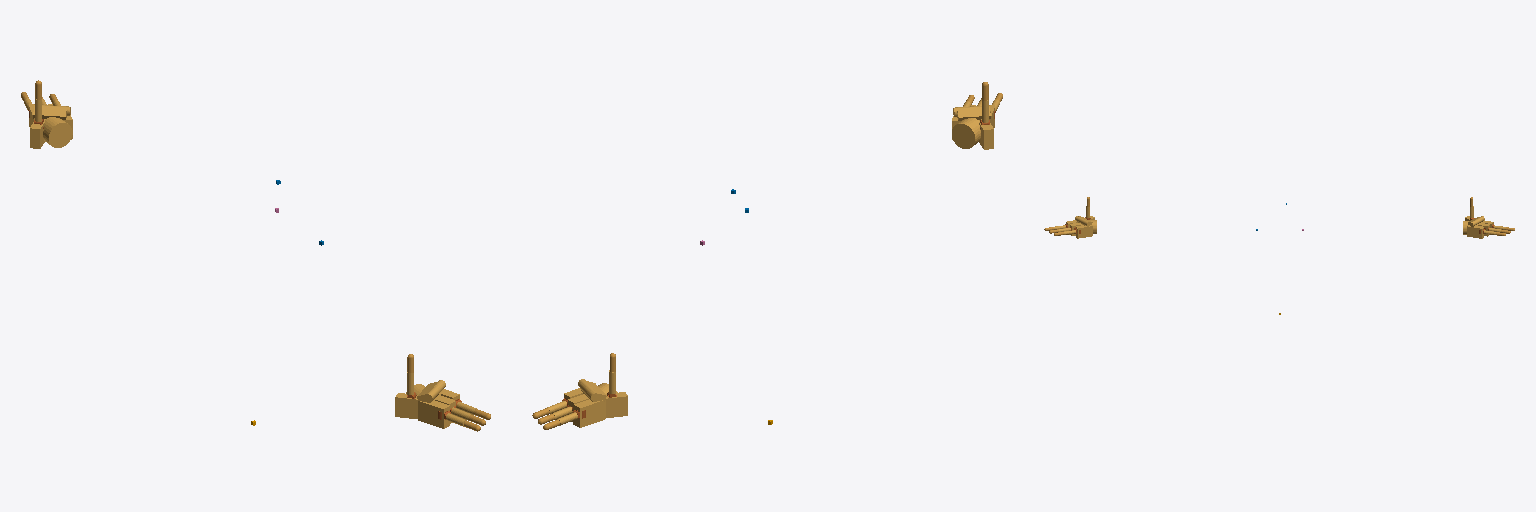
--- Facts derived from the render (not from the file) ---
3 views of the same robot in one strip: view 1: azimuth 30°, elevation 25°; view 2: azimuth 150°, elevation 25°; view 3: azimuth 270°, elevation 25° (orthographic).
Model atlas with 111 links and 110 joints (52 revolute, 1 continuous, 57 fixed), rooted at pelvis, posed every joint at zero.
Links seen in each view (by area): view 1: right_palm, left_palm; view 2: left_palm, right_palm; view 3: none.
Boxes of the visible links, <box> form: right_palm: <box>395,380,459,428</box>; left_palm: <box>29,104,72,148</box>; left_palm: <box>564,379,627,427</box>; right_palm: <box>952,105,994,149</box>.
Bounding box of the posed robot: 0.2828 × 2.51 × 0.7021 m (x, y, z).
Meshes: 30 distinct files referenced, 0 mesh visuals loaded (none loaded); not drawn: 30 (reference not matched to a file when rendering).

The robot description file, URDF, robot "atlas":
<?xml version="1.0" ?>
<!-- =================================================================================== -->
<!-- |    This document was autogenerated by xacro from [local-path]/flor_repo/rosbuild_ws/vigir_robot/flor_atlas_description/robots/flor_atlas.urdf.xacro | -->
<!-- |    EDITING THIS FILE BY HAND IS NOT RECOMMENDED                                 | -->
<!-- =================================================================================== -->
<robot name="atlas" xmlns:xacro="http://www.ros.org/wiki/xacro">
  <link name="l_clav">
    <inertial>
      <mass value="2.369"/>
      <origin rpy="0 -0 0" xyz="0.014 0.058 0.029"/>
      <inertia ixx="0.004" ixy="0.001" ixz="0" iyy="0.006" iyz="0" izz="0.007"/>
    </inertial>
    <visual>
      <origin rpy="1.04719755 0 0" xyz="0 0 0"/>
      <geometry>
        <mesh filename="package://flor_atlas_description/meshes/l_clav.dae" scale="1 1 1"/>
      </geometry>
    </visual>
    <collision group="default">
      <origin rpy="0 1.5707963267949 0" xyz="0 0.0697 0.0261"/>
      <geometry>
        <cylinder length="0.1525" radius="0.045"/>
      </geometry>
    </collision>
    <collision group="other">
      <origin rpy="1.0472 0 0" xyz="-0.005 -0.0074 -0.0538"/>
      <geometry>
        <box size="0.13 0.15 0.05"/>
      </geometry>
    </collision>
  </link>
  <link name="l_farm">
    <inertial>
      <mass value="0.981"/>
      <origin rpy="0 -0 0" xyz="0 0.041 0"/>
      <inertia ixx="0.003" ixy="0" ixz="0" iyy="0.001" iyz="0" izz="0.003"/>
    </inertial>
    <visual>
      <origin rpy="0 -0 0" xyz="0 -0.06 0"/>
      <geometry>
        <mesh filename="package://flor_atlas_description/meshes/l_farm.dae" scale="1 1 1"/>
      </geometry>
    </visual>
    <collision group="default">
      <origin rpy="0 1.5708 0" xyz="0.0 0.065 0.004"/>
      <geometry>
        <cylinder length="0.125" radius="0.045"/>
      </geometry>
    </collision>
    <collision group="other">
      <origin rpy="0 0 0" xyz="0.001 0.015 -0.002"/>
      <geometry>
        <box size="0.135 0.1 0.045"/>
      </geometry>
    </collision>
  </link>
  <link name="l_foot">
    <inertial>
      <mass value="0.867"/>
      <origin rpy="0 -0 0" xyz="0.027 0 -0.067"/>
      <inertia ixx="0.002" ixy="0" ixz="0" iyy="0.00350421" iyz="0" izz="0.00400651"/>
    </inertial>
    <visual>
      <origin rpy="0 -0 0" xyz="0 0 0"/>
      <geometry>
        <mesh filename="package://flor_atlas_description/meshes/l_foot.dae" scale="1 1 1"/>
      </geometry>
    </visual>
    <!-- bottom -->
    <collision group="default">
      <origin rpy="0 0 0" xyz="0.048 0 -0.056119"/>
      <geometry>
        <box size="0.26 0.124887 0.05"/>
      </geometry>
    </collision>
    <!-- ankle FIXME: adding this collision body destabilizes robot, shouldn't
        <collision group="other">
          <origin xyz="0.0 0 -0.0528735" rpy="0 0 0"/>
          <geometry>
            <cylinder radius="0.0373" length="0.037827"/>
          </geometry>
        </collision>
        -->
  </link>
  <link name="l_hand">
    <inertial>
      <mass value="2.263"/>
      <origin rpy="0 -0 0" xyz="0 0.093 0"/>
      <inertia ixx="0.01" ixy="0" ixz="0" iyy="0.002" iyz="0" izz="0.01"/>
    </inertial>
    <visual>
      <origin rpy="0 -0 0" xyz="0 0 0"/>
      <geometry>
        <mesh filename="package://flor_atlas_description/meshes/l_hand.dae" scale="1 1 1"/>
      </geometry>
    </visual>
    <collision group="default">
      <origin rpy="1.5707963267949 0 0" xyz="0.001 0.1 0.01"/>
      <geometry>
        <cylinder length="0.05" radius="0.03"/>
      </geometry>
    </collision>
    <collision group="other">
      <origin rpy="0 0 0" xyz="0.001 0.05 0.01"/>
      <geometry>
        <box size="0.13 0.09 0.07"/>
      </geometry>
    </collision>
  </link>
  <link name="l_larm">
    <inertial>
      <mass value="2.148"/>
      <origin rpy="0 -0 0" xyz="-0.003 0.099 -0.014"/>
      <inertia ixx="0.005" ixy="0" ixz="0" iyy="0.003" iyz="0" izz="0.006"/>
    </inertial>
    <visual>
      <origin rpy="0 -0 0" xyz="0 0 0"/>
      <geometry>
        <mesh filename="package://flor_atlas_description/meshes/l_larm.dae" scale="1 1 1"/>
      </geometry>
    </visual>
    <collision group="default">
      <origin rpy="1.5707963267949 0 0" xyz="0.001 0.127 0.00"/>
      <geometry>
        <cylinder length="0.125" radius="0.045"/>
      </geometry>
    </collision>
    <collision group="other">
      <origin rpy="0 0 0" xyz="0.001 0.051 0.0"/>
      <geometry>
        <box size="0.135 0.15 0.06"/>
      </geometry>
    </collision>
  </link>
  <link name="l_lglut">
    <inertial>
      <mass value="0.803"/>
      <origin rpy="0 -0 0" xyz="0.0133341 0.0170484 -0.0312052"/>
      <inertia ixx="0.0453457" ixy="-2.24344e-05" ixz="2.50508e-06" iyy="0.0174182" iyz="0.000137862" izz="0.0071591"/>
    </inertial>
    <visual>
      <origin rpy="0 -0 0" xyz="0 0 0"/>
      <geometry>
        <mesh filename="package://flor_atlas_description/meshes/l_lglut.dae" scale="1 1 1"/>
      </geometry>
    </visual>
    <collision group="default">
      <origin rpy="1.5707963267949 0 0" xyz="0.049968 0.022488 -0.0501165"/>
      <geometry>
        <cylinder length="0.060306" radius="0.02009687"/>
      </geometry>
    </collision>
    <collision group="other">
      <origin rpy="0 1.5707963267949 0" xyz="0 0 0"/>
      <geometry>
        <cylinder length="0.12" radius="0.02"/>
      </geometry>
    </collision>
  </link>
  <link name="l_lleg">
    <inertial>
      <mass value="4.367"/>
      <origin rpy="0 -0 0" xyz="0.001 0 -0.187"/>
      <inertia ixx="0.077" ixy="0" ixz="-0.003" iyy="0.076" iyz="0" izz="0.01"/>
    </inertial>
    <visual>
      <origin rpy="0 -0 0" xyz="0 0 0"/>
      <geometry>
        <mesh filename="package://flor_atlas_description/meshes/l_lleg.dae" scale="1.0 1.0 1.0"/>
      </geometry>
    </visual>
    <collision group="default">
      <origin rpy="0 0.10 0" xyz="0.02 0.00295 -0.18"/>
      <geometry>
        <cylinder length="0.40" radius="0.07"/>
      </geometry>
    </collision>
  </link>
  <link name="l_scap">
    <inertial>
      <mass value="2.707"/>
      <origin rpy="0 -0 0" xyz="-0.002 0.108 0"/>
      <inertia ixx="0.01" ixy="0" ixz="0" iyy="0.005" iyz="0" izz="0.013"/>
    </inertial>
    <visual>
      <origin rpy="0 0 0" xyz="0 0 0"/>
      <geometry>
        <mesh filename="package://flor_atlas_description/meshes/l_scap.dae" scale="1 1 1"/>
      </geometry>
    </visual>
    <collision group="default">
      <origin rpy="1.5707963267949 0 0" xyz="0.001 0.12651 0.01521"/>
      <geometry>
        <cylinder length="0.125" radius="0.045"/>
      </geometry>
    </collision>
    <collision group="other">
      <origin rpy="0 0 0" xyz="0.001 0.05 0.016"/>
      <geometry>
        <box size="0.15 0.15 0.06"/>
      </geometry>
    </collision>
  </link>
  <link name="l_talus">
    <inertial>
      <mass value="0.867"/>
      <origin rpy="0 -0 0" xyz="0 0 0"/>
      <inertia ixx="0.001" ixy="0" ixz="0" iyy="0.00350421" iyz="0" izz="0.00400651"/>
    </inertial>
    <visual>
      <origin rpy="0 -0 0" xyz="0 0 0"/>
      <geometry>
        <mesh filename="package://flor_atlas_description/meshes/l_talus.dae" scale="1 1 1"/>
      </geometry>
    </visual>
    <collision group="default">
      <origin rpy="0 1.5707963267949 0" xyz="0 0 0"/>
      <geometry>
        <cylinder length="0.029542" radius="0.010181"/>
      </geometry>
    </collision>
    <collision group="other">
      <origin rpy="1.5707963267949 0 0" xyz="0 0 0"/>
      <geometry>
        <cylinder length="0.010059" radius="0.010348"/>
      </geometry>
    </collision>
  </link>
  <link name="l_uarm">
    <inertial>
      <mass value="1.881"/>
      <origin rpy="0 -0 0" xyz="0.007 0.114 0.008"/>
      <inertia ixx="0.002" ixy="0" ixz="0" iyy="0.003" iyz="0" izz="0.003"/>
    </inertial>
    <visual>
      <origin rpy="0 -0 0" xyz="0 0 0"/>
      <geometry>
        <mesh filename="package://flor_atlas_description/meshes/l_uarm.dae" scale="1 1 1"/>
      </geometry>
    </visual>
    <collision group="default">
      <origin rpy="0 1.5708 0" xyz="0.001 0.111 0.0"/>
      <geometry>
        <cylinder length="0.125" radius="0.045"/>
      </geometry>
    </collision>
    <collision group="other">
      <origin rpy="0 1.5707963267949 0" xyz="0.001 0.043 0.01"/>
      <geometry>
        <box size="0.04 0.07 0.13"/>
      </geometry>
    </collision>
  </link>
  <link name="l_uglut">
    <inertial>
      <mass value="1.51622"/>
      <origin rpy="0 -0 0" xyz="0.00529262 -0.00344732 0.00313046"/>
      <inertia ixx="0.0327037" ixy="-3.79607e-08" ixz="-2.79549e-05" iyy="0.0174182" iyz="-3.2735e-08" izz="0.0071591"/>
    </inertial>
    <visual>
      <origin rpy="0 -0 0" xyz="0 0 0"/>
      <geometry>
        <mesh filename="package://flor_atlas_description/meshes/l_uglut.dae" scale="1 1 1"/>
      </geometry>
    </visual>
    <collision group="default">
      <origin rpy="0 1.5707963267949 0" xyz="0 0 0"/>
      <geometry>
        <cylinder length="0.078396" radius="0.019096"/>
      </geometry>
    </collision>
    <collision group="other">
      <origin rpy="0 0 0" xyz="0 0 0"/>
      <geometry>
        <cylinder length="0.080842" radius="0.019841"/>
      </geometry>
    </collision>
  </link>
  <link name="l_uleg">
    <inertial>
      <mass value="7.227"/>
      <origin rpy="0 -0 0" xyz="0 0 -0.21"/>
      <inertia ixx="0.0453457" ixy="0" ixz="0" iyy="0.09" iyz="0" izz="0.0071591"/>
    </inertial>
    <visual>
      <origin rpy="0 -0 0" xyz="0 0 0"/>
      <geometry>
        <mesh filename="package://flor_atlas_description/meshes/l_uleg.dae" scale="1.0 1.0 1.0"/>
      </geometry>
    </visual>
    <collision group="default">
      <origin rpy="0 0 0" xyz="-0.0179 0.02085 -0.13"/>
      <geometry>
        <cylinder length="0.10" radius="0.1"/>
      </geometry>
    </collision>
    <collision group="other">
      <origin rpy="0 -0.3 0" xyz="-0.03 0.01 -0.23"/>
      <geometry>
        <cylinder length="0.15" radius="0.07"/>
      </geometry>
    </collision>
    <collision group="other">
      <origin rpy="0 0.3 0" xyz="-0.005 0.01 -0.23"/>
      <geometry>
        <cylinder length="0.15" radius="0.07"/>
      </geometry>
    </collision>
    <collision group="other">
      <origin rpy="-0.25 0 0" xyz="-0.02 0.03 -0.23"/>
      <geometry>
        <cylinder length="0.15" radius="0.07"/>
      </geometry>
    </collision>
  </link>
  <link name="ltorso">
    <inertial>
      <mass value="1.62729"/>
      <origin rpy="0 -0 0" xyz="-0.0112984 -3.15366e-06 0.0746835"/>
      <inertia ixx="0.0646646" ixy="-5.04491e-08" ixz="-0.000342157" iyy="0.050298" iyz="4.87119e-07" izz="0.10973"/>
    </inertial>
    <visual>
      <origin rpy="0 -0 0" xyz="0 0 0"/>
      <geometry>
        <mesh filename="package://flor_atlas_description/meshes/ltorso.dae" scale="1 1 1"/>
      </geometry>
    </visual>
    <!-- this part is completely internal
        <collision group="default">
          <origin rpy="0 0 0" xyz="0 0 0.039762"/>
          <geometry>
            <cylinder radius="0.025918" length="0.076922"/>
          </geometry>
        </collision>
        <collision group="other">
          <origin rpy="1.5707963267949 0 0" xyz="0 0.0250065 0.09025"/>
          <geometry>
            <cylinder radius="0.014828" length="0.020367"/>
          </geometry>
        </collision>
        <collision group="other">
          <origin rpy="1.5707963267949 0 0" xyz="0 -0.0248895 0.09025"/>
          <geometry>
            <cylinder radius="0.014828" length="0.020169"/>
          </geometry>
        </collision>
        -->
  </link>
  <link name="mtorso">
    <inertial>
      <mass value="3.8068"/>
      <origin rpy="0 -0 0" xyz="-0.00816266 -0.0131245 0.0305974"/>
      <inertia ixx="0.1975" ixy="-6.10764e-05" ixz="3.94009e-05" iyy="0.544742" iyz="5.27463e-05" izz="0.10973"/>
    </inertial>
    <visual>
      <origin rpy="0 -0 0" xyz="0 0 0"/>
      <geometry>
        <mesh filename="package://flor_atlas_description/meshes/mtorso.dae" scale="1 1 1"/>
      </geometry>
    </visual>
    <!--        <collision group="default">
          <origin rpy="1.5707963267949 0 0" xyz="0 0 0"/>
          <geometry>
            <cylinder radius="0.017" length="0.03"/>
          </geometry>
        </collision>
        <collision group="other">
          <origin rpy="0 1.5707963267949 0" xyz="0.0285 0 0.05"/>
          <geometry>
            <cylinder radius="0.015" length="0.02"/>
          </geometry>
        </collision>
        <collision group="other">
          <origin rpy="0 1.5707963267949 0" xyz="-0.0285 0 0.05"/>
          <geometry>
            <cylinder radius="0.015" length="0.02"/>
          </geometry>
        </collision>-->
  </link>
  <link name="pelvis">
    <inertial>
      <mass value="12.54638"/>
      <origin rpy="0 -0 0" xyz="0.0111 0 0.0271"/>
      <inertia ixx="0.0327037" ixy="0.0008" ixz="-0.0007" iyy="0.0174182" iyz="-0.0005" izz="0.118059"/>
    </inertial>
    <visual>
      <origin rpy="0 -0 0" xyz="0 0 0"/>
      <geometry>
        <mesh filename="package://flor_atlas_description/meshes/pelvis.dae" scale="1.0 1.0 1.0"/>
      </geometry>
    </visual>
    <collision group="default">
      <origin rpy="1.5707963267949 0 0" xyz="0.046 0.0 -0.02"/>
      <geometry>
        <cylinder length="0.06" radius="0.11"/>
      </geometry>
    </collision>
    <collision group="other">
      <origin rpy="1.5707963267949 0 0" xyz="-0.03 0.0 -0.02"/>
      <geometry>
        <cylinder length="0.06" radius="0.11"/>
      </geometry>
    </collision>
    <collision group="other">
      <origin rpy="0 0 0" xyz="0.01 0.042 0.09"/>
      <geometry>
        <cylinder length="0.05" radius="0.16"/>
      </geometry>
    </collision>
    <collision group="other">
      <origin rpy="0 0 0" xyz="0.01 -0.042 0.09"/>
      <geometry>
        <cylinder length="0.05" radius="0.16"/>
      </geometry>
    </collision>
    <collision group="other">
      <origin rpy="0 0 0" xyz="-0.1 0 -0.05"/>
      <geometry>
        <box size="0.1 0.15 0.2"/>
      </geometry>
    </collision>
  </link>
  <link name="r_clav">
    <inertial>
      <mass value="2.369"/>
      <origin rpy="0 -0 0" xyz="0.014 -0.058 0.029"/>
      <inertia ixx="0.004" ixy="-0.001" ixz="0" iyy="0.006" iyz="0" izz="0.007"/>
    </inertial>
    <visual>
      <origin rpy="-1.04719755 0 0" xyz="0 0 0"/>
      <geometry>
        <mesh filename="package://flor_atlas_description/meshes/r_clav.dae" scale="1 1 1"/>
      </geometry>
    </visual>
    <collision group="default">
      <origin rpy="0 1.5707963267949 0" xyz="0 -0.0697 0.0261"/>
      <geometry>
        <cylinder length="0.1525" radius="0.045"/>
      </geometry>
    </collision>
    <collision group="other">
      <origin rpy="-1.0472 0 0" xyz="-0.005 0.0074 -0.0538"/>
      <geometry>
        <box size="0.13 0.15 0.05"/>
      </geometry>
    </collision>
  </link>
  <link name="r_farm">
    <inertial>
      <mass value="0.981"/>
      <origin rpy="0 -0 0" xyz="0 -0.041 0"/>
      <inertia ixx="0.003" ixy="0" ixz="0" iyy="0.001" iyz="0" izz="0.003"/>
    </inertial>
    <visual>
      <origin rpy="0 -0 0" xyz="0 0.06 0"/>
      <geometry>
        <mesh filename="package://flor_atlas_description/meshes/r_farm.dae" scale="1 1 1"/>
      </geometry>
    </visual>
    <collision group="default">
      <origin rpy="0 1.5708 0" xyz="0.0 -0.065 0.004"/>
      <geometry>
        <cylinder length="0.125" radius="0.045"/>
      </geometry>
    </collision>
    <collision group="other">
      <origin rpy="0 0 0" xyz="0.001 -0.015 -0.002"/>
      <geometry>
        <box size="0.135 0.1 0.045"/>
      </geometry>
    </collision>
  </link>
  <link name="r_foot">
    <inertial>
      <mass value="0.867"/>
      <origin rpy="0 -0 0" xyz="0.027 0 -0.067"/>
      <inertia ixx="0.002" ixy="0" ixz="0" iyy="0.00350421" iyz="0" izz="0.00400651"/>
    </inertial>
    <visual>
      <origin rpy="0 -0 0" xyz="0 0 0"/>
      <geometry>
        <mesh filename="package://flor_atlas_description/meshes/r_foot.dae" scale="1 1 1"/>
      </geometry>
    </visual>
    <!-- bottom -->
    <collision group="default">
      <origin rpy="0 0 0" xyz="0.048 0 -0.056119"/>
      <geometry>
        <box size="0.26 0.124887 0.05"/>
      </geometry>
    </collision>
    <!-- ankle FIXME: adding this collision body destabilizes robot, shouldn't
        <collision group="other">
          <origin xyz="0.0 0 -0.0528735" rpy="0 0 0"/>
          <geometry>
            <cylinder radius="0.0373" length="0.037827"/>
          </geometry>
        </collision>
        -->
  </link>
  <link name="r_hand">
    <inertial>
      <mass value="2.263"/>
      <origin rpy="0 -0 0" xyz="0 -0.093 0"/>
      <inertia ixx="0.01" ixy="0" ixz="0" iyy="0.002" iyz="0" izz="0.01"/>
    </inertial>
    <visual>
      <origin rpy="0 -0 0" xyz="0 0 0"/>
      <geometry>
        <mesh filename="package://flor_atlas_description/meshes/r_hand.dae" scale="1 1 1"/>
      </geometry>
    </visual>
    <collision group="default">
      <origin rpy="1.5707963267949 0 0" xyz="0.001 -0.1 0.01"/>
      <geometry>
        <cylinder length="0.05" radius="0.03"/>
      </geometry>
    </collision>
    <collision group="other">
      <origin rpy="0 0 0" xyz="0.001 -0.05 0.01"/>
      <geometry>
        <box size="0.13 0.09 0.07"/>
      </geometry>
    </collision>
  </link>
  <link name="r_larm">
    <inertial>
      <mass value="2.148"/>
      <origin rpy="0 -0 0" xyz="-0.003 -0.099 -0.014"/>
      <inertia ixx="0.005" ixy="0" ixz="0" iyy="0.003" iyz="0" izz="0.006"/>
    </inertial>
    <visual>
      <origin rpy="0 -0 0" xyz="0 0 0"/>
      <geometry>
        <mesh filename="package://flor_atlas_description/meshes/r_larm.dae" scale="1.0 1.0 1.0"/>
      </geometry>
    </visual>
    <collision group="default">
      <origin rpy="1.5707963267949 0 0" xyz="0.001 -0.127 0.00"/>
      <geometry>
        <cylinder length="0.125" radius="0.045"/>
      </geometry>
    </collision>
    <collision group="other">
      <origin rpy="0 0 0" xyz="0.001 -0.051 0.0"/>
      <geometry>
        <box size="0.135 0.15 0.06"/>
      </geometry>
    </collision>
  </link>
  <link name="r_lglut">
    <inertial>
      <mass value="0.803"/>
      <origin rpy="0 -0 0" xyz="0.0133341 -0.0170484 -0.0312052"/>
      <inertia ixx="0.0453457" ixy="2.24344e-05" ixz="2.50508e-06" iyy="0.0174182" iyz="-0.000137862" izz="0.0071591"/>
    </inertial>
    <visual>
      <origin rpy="0 -0 0" xyz="0 0 0"/>
      <geometry>
        <mesh filename="package://flor_atlas_description/meshes/r_lglut.dae" scale="1.0 1.0 1.0"/>
      </geometry>
    </visual>
    <collision group="default">
      <origin rpy="1.5707963267949 0 0" xyz="0.049968 -0.022488 -0.0501165"/>
      <geometry>
        <cylinder length="0.060306" radius="0.02009687"/>
      </geometry>
    </collision>
    <collision group="other">
      <origin rpy="0 1.5707963267949 0" xyz="0 0 0"/>
      <geometry>
        <cylinder length="0.12" radius="0.02"/>
      </geometry>
    </collision>
  </link>
  <link name="r_lleg">
    <inertial>
      <mass value="4.367"/>
      <origin rpy="0 -0 0" xyz="0.001 0 -0.187"/>
      <inertia ixx="0.077" ixy="-0" ixz="-0.003" iyy="0.076" iyz="-0" izz="0.01"/>
    </inertial>
    <visual>
      <origin rpy="0 -0 0" xyz="0 0 0"/>
      <geometry>
        <mesh filename="package://flor_atlas_description/meshes/r_lleg.dae" scale="1.0 1.0 1.0"/>
      </geometry>
    </visual>
    <collision group="default">
      <origin rpy="0 0.10 0" xyz="0.02 -0.00295 -0.18"/>
      <geometry>
        <cylinder length="0.40" radius="0.07"/>
      </geometry>
    </collision>
  </link>
  <link name="r_scap">
    <inertial>
      <mass value="2.707"/>
      <origin rpy="0 -0 0" xyz="-0.002 -0.108 0"/>
      <inertia ixx="0.01" ixy="0" ixz="0" iyy="0.005" iyz="0" izz="0.013"/>
    </inertial>
    <visual>
      <origin rpy="0 -0 0" xyz="0 0 0"/>
      <geometry>
        <mesh filename="package://flor_atlas_description/meshes/r_scap.dae" scale="1 1 1"/>
      </geometry>
    </visual>
    <collision group="default">
      <origin rpy="1.5707963267949 0 0" xyz="0.001 -0.12651 0.01521"/>
      <geometry>
        <cylinder length="0.125" radius="0.045"/>
      </geometry>
    </collision>
    <collision group="other">
      <origin rpy="0 0 0" xyz="0.001 -0.05 0.016"/>
      <geometry>
        <box size="0.15 0.15 0.06"/>
      </geometry>
    </collision>
  </link>
  <link name="r_talus">
    <inertial>
      <mass value="0.867"/>
      <origin rpy="0 -0 0" xyz="0 0 0"/>
      <inertia ixx="0.001" ixy="0" ixz="0" iyy="0.00350421" iyz="0" izz="0.00400651"/>
    </inertial>
    <visual>
      <origin rpy="0 -0 0" xyz="0 0 0"/>
      <geometry>
        <mesh filename="package://flor_atlas_description/meshes/r_talus.dae" scale="1 1 1"/>
      </geometry>
    </visual>
    <collision group="default">
      <origin rpy="0 1.5707963267949 0" xyz="0 0 0"/>
      <geometry>
        <cylinder length="0.029542" radius="0.010181"/>
      </geometry>
    </collision>
    <collision group="other">
      <origin rpy="1.5707963267949 0 0" xyz="0 0 0"/>
      <geometry>
        <cylinder length="0.010059" radius="0.010348"/>
      </geometry>
    </collision>
  </link>
  <link name="r_uarm">
    <inertial>
      <mass value="1.881"/>
      <origin rpy="0 -0 0" xyz="0.007 -0.114 0.008"/>
      <inertia ixx="0.002" ixy="0" ixz="0" iyy="0.003" iyz="0" izz="0.003"/>
    </inertial>
    <visual>
      <origin rpy="0 -0 0" xyz="0 0 0"/>
      <geometry>
        <mesh filename="package://flor_atlas_description/meshes/r_uarm.dae" scale="1.0 1.0 1.0"/>
      </geometry>
    </visual>
    <collision group="default">
      <origin rpy="0 1.5708 0" xyz="0.001 -0.111 0.0"/>
      <geometry>
        <cylinder length="0.125" radius="0.045"/>
      </geometry>
    </collision>
    <collision group="other">
      <origin rpy="0 1.5707963267949 0" xyz="0.001 -0.043 0.01"/>
      <geometry>
        <box size="0.04 0.07 0.13"/>
      </geometry>
    </collision>
  </link>
  <link name="r_uglut">
    <inertial>
      <mass value="1.51622"/>
      <origin rpy="0 -0 0" xyz="0.00529262 0.00344732 0.00313046"/>
      <inertia ixx="0.0327037" ixy="3.79607e-08" ixz="-2.79549e-05" iyy="0.0174182" iyz="3.2735e-08" izz="0.0071591"/>
    </inertial>
    <visual>
      <origin rpy="0 -0 0" xyz="0 0 0"/>
      <geometry>
        <mesh filename="package://flor_atlas_description/meshes/r_uglut.dae" scale="1.0 1.0 1.0"/>
      </geometry>
    </visual>
    <collision group="default">
      <origin rpy="0 1.5707963267949 0" xyz="0 0 0"/>
      <geometry>
        <cylinder length="0.078396" radius="0.019096"/>
      </geometry>
    </collision>
    <collision group="other">
      <origin rpy="0 0 0" xyz="0 0 0"/>
      <geometry>
        <cylinder length="0.080842" radius="0.019841"/>
      </geometry>
    </collision>
  </link>
  <link name="r_uleg">
    <inertial>
      <mass value="7.227"/>
      <origin rpy="0 -0 0" xyz="0 0 -0.21"/>
      <inertia ixx="0.0453457" ixy="0" ixz="0" iyy="0.09" iyz="0" izz="0.0071591"/>
    </inertial>
    <visual>
      <origin rpy="0 -0 0" xyz="0 0 0"/>
      <geometry>
        <mesh filename="package://flor_atlas_description/meshes/r_uleg.dae" scale="1.0 1.0 1.0"/>
      </geometry>
    </visual>
    <collision group="default">
      <origin rpy="0 0 0" xyz="-0.0179 -0.02085 -0.13"/>
      <geometry>
        <cylinder length="0.10" radius="0.1"/>
      </geometry>
    </collision>
    <collision group="other">
      <origin rpy="0 -0.3 0" xyz="-0.03 -0.01 -0.23"/>
      <geometry>
        <cylinder length="0.15" radius="0.07"/>
      </geometry>
    </collision>
    <collision group="other">
      <origin rpy="0 0.3 0" xyz="-0.005 -0.01 -0.23"/>
      <geometry>
        <cylinder length="0.15" radius="0.07"/>
      </geometry>
    </collision>
    <collision group="other">
      <origin rpy="0.25 0 0" xyz="-0.02 -0.03 -0.23"/>
      <geometry>
        <cylinder length="0.15" radius="0.07"/>
      </geometry>
    </collision>
  </link>
  <link name="utorso">
    <inertial>
      <mass value="15.2272"/>
      <origin rpy="0 -0 0" xyz="0.02 -0.001 0.211"/>
      <inertia ixx="0.395" ixy="0" ixz="0.083" iyy="0.544742" iyz="-0.003" izz="0.10973"/>
    </inertial>
    <visual>
      <origin rpy="0 -0 0" xyz="0 0 0"/>
      <geometry>
        <mesh filename="package://flor_atlas_description/meshes/utorso.dae" scale="1 1 1"/>
      </geometry>
    </visual>
    <collision group="default">
      <origin rpy="0 -0 0" xyz="0.0446 0 0.1869"/>
      <geometry>
        <box size="0.3188 0.24 0.3162"/>
      </geometry>
    </collision>
    <collision group="other">
      <origin rpy="-0.5236 0 0" xyz="0.024 0.16 0.18"/>
      <geometry>
        <cylinder length="0.22375" radius="0.0363"/>
      </geometry>
    </collision>
    <collision group="other">
      <origin rpy="0.5236 0 0" xyz="0.024 -0.16 0.18"/>
      <geometry>
        <cylinder length="0.22375" radius="0.0363"/>
      </geometry>
    </collision>
  </link>
  <joint name="back_bkz" type="revolute">
    <origin rpy="0 -0 0" xyz="-0.0125 0 0"/>
    <axis xyz="0 0 1"/>
    <parent link="pelvis"/>
    <child link="ltorso"/>
    <dynamics damping="10" friction="0"/>
    <limit effort="124.016" lower="-0.610865" upper="0.610865" velocity="12"/>
    <safety_controller k_position="100" k_velocity="100" soft_lower_limit="-10.6109" soft_upper_limit="10.6109"/>
  </joint>
  <joint name="back_bky" type="revolute">
    <origin rpy="0 -0 0" xyz="0 0 0.09"/>
    <axis xyz="0 1 0"/>
    <parent link="ltorso"/>
    <child link="mtorso"/>
    <dynamics damping="10" friction="0"/>
    <limit effort="206.843" lower="-1.2" upper="1.28" velocity="12"/>
    <safety_controller k_position="100" k_velocity="100" soft_lower_limit="-11.2" soft_upper_limit="11.28"/>
  </joint>
  <joint name="back_bkx" type="revolute">
    <origin rpy="0 -0 0" xyz="0 0 0.05"/>
    <axis xyz="1 0 0"/>
    <parent link="mtorso"/>
    <child link="utorso"/>
    <dynamics damping="10" friction="0"/>
    <limit effort="94.91" lower="-0.790809" upper="0.790809" velocity="12"/>
    <safety_controller k_position="100" k_velocity="100" soft_lower_limit="-10.7908" soft_upper_limit="10.7908"/>
  </joint>
  <joint name="l_arm_elx" type="revolute">
    <origin rpy="0 -0 0" xyz="0 0.121 0.013"/>
    <axis xyz="1 0 0"/>
    <parent link="l_uarm"/>
    <child link="l_larm"/>
    <dynamics damping="1.0" friction="0"/>
    <limit effort="114" lower="0" upper="2.35619" velocity="12"/>
    <safety_controller k_position="100" k_velocity="100" soft_lower_limit="-10" soft_upper_limit="12.3562"/>
  </joint>
  <joint name="l_arm_ely" type="revolute">
    <origin rpy="0 -0 0" xyz="0 0.185 0"/>
    <axis xyz="0 1 0"/>
    <parent link="l_scap"/>
    <child link="l_uarm"/>
    <dynamics damping="1.0" friction="0"/>
    <limit effort="114" lower="0" upper="3.14159" velocity="12"/>
    <safety_controller k_position="100" k_velocity="100" soft_lower_limit="-10" soft_upper_limit="13.1416"/>
  </joint>
  <joint name="l_arm_wrx" type="revolute">
    <origin rpy="0 -0 0" xyz="0 0.058 0"/>
    <axis xyz="1 0 0"/>
    <parent link="l_farm"/>
    <child link="l_hand"/>
    <dynamics damping="1.0" friction="0"/>
    <limit effort="60" lower="-0.436" upper="1.571" velocity="12"/>
    <safety_controller k_position="100" k_velocity="100" soft_lower_limit="-10.436" soft_upper_limit="11.571"/>
  </joint>
  <joint name="l_arm_shx" type="revolute">
    <origin rpy="0 -0 0" xyz="0 0.075 0.036"/>
    <axis xyz="1 0 0"/>
    <parent link="l_clav"/>
    <child link="l_scap"/>
    <dynamics damping="1.0" friction="0"/>
    <limit effort="170" lower="-1.39626" upper="1.74533" velocity="12"/>
    <safety_controller k_position="100" k_velocity="100" soft_lower_limit="-11.3963" soft_upper_limit="11.7453"/>
  </joint>
  <joint name="l_arm_shy" type="revolute">
    <origin rpy="0 -0 0" xyz="0.024 0.221 0.289"/>
    <axis xyz="0 0.5 0.866025"/>
    <parent link="utorso"/>
    <child link="l_clav"/>
    <dynamics damping="1.0" friction="0"/>
    <limit effort="212" lower="-1.9635" upper="1.9635" velocity="12"/>
    <safety_controller k_position="100" k_velocity="100" soft_lower_limit="-11.9635" soft_upper_limit="11.9635"/>
  </joint>
  <joint name="l_arm_wry" type="revolute">
    <origin rpy="0 -0 0" xyz="0 0.188 -0.013"/>
    <axis xyz="0 1 0"/>
    <parent link="l_larm"/>
    <child link="l_farm"/>
    <dynamics damping="1.0" friction="0"/>
    <limit effort="114" lower="-1.571" upper="1.571" velocity="12"/>
    <safety_controller k_position="100" k_velocity="100" soft_lower_limit="-11.571" soft_upper_limit="11.571"/>
  </joint>
  <joint name="l_leg_kny" type="revolute">
    <origin rpy="0 -0 0" xyz="-0.05 0 -0.374"/>
    <axis xyz="0 1 0"/>
    <parent link="l_uleg"/>
    <child link="l_lleg"/>
    <dynamics damping="1.0" friction="0"/>
    <limit effort="400" lower="0" upper="2.45" velocity="12"/>
    <safety_controller k_position="100" k_velocity="100" soft_lower_limit="-10" soft_upper_limit="12.45"/>
  </joint>
  <joint name="l_leg_akx" type="revolute">
    <origin rpy="0 -0 0" xyz="0 0 0"/>
    <axis xyz="1 0 0"/>
    <parent link="l_talus"/>
    <child link="l_foot"/>
    <dynamics damping="1.0" friction="0"/>
    <limit effort="90" lower="-0.436" upper="0.436" velocity="12"/>
    <safety_controller k_position="100" k_velocity="100" soft_lower_limit="-10.436" soft_upper_limit="10.436"/>
  </joint>
  <joint name="l_leg_hpy" type="revolute">
    <origin rpy="0 -0 0" xyz="0.05 0 -0.05"/>
    <axis xyz="0 1 0"/>
    <parent link="l_lglut"/>
    <child link="l_uleg"/>
    <dynamics damping="1.0" friction="0"/>
    <limit effort="260" lower="-1.75" upper="0.524" velocity="12"/>
    <safety_controller k_position="100" k_velocity="100" soft_lower_limit="-11.75" soft_upper_limit="10.524"/>
  </joint>
  <joint name="l_leg_hpx" type="revolute">
    <origin rpy="0 -0 0" xyz="0 0 0"/>
    <axis xyz="1 0 0"/>
    <parent link="l_uglut"/>
    <child link="l_lglut"/>
    <dynamics damping="1.0" friction="0"/>
    <limit effort="180" lower="-0.47" upper="0.495" velocity="12"/>
    <safety_controller k_position="100" k_velocity="100" soft_lower_limit="-10.47" soft_upper_limit="10.495"/>
  </joint>
  <joint name="l_leg_aky" type="revolute">
    <origin rpy="0 -0 0" xyz="0 0 -0.422"/>
    <axis xyz="0 1 0"/>
    <parent link="l_lleg"/>
    <child link="l_talus"/>
    <dynamics damping="1.0" friction="0"/>
    <limit effort="220" lower="-0.9" upper="0.698" velocity="12"/>
    <safety_controller k_position="100" k_velocity="100" soft_lower_limit="-10.698" soft_upper_limit="10.698"/>
  </joint>
  <joint name="l_leg_hpz" type="revolute">
    <origin rpy="0 -0 0" xyz="0 0.089 0"/>
    <axis xyz="0 0 1"/>
    <parent link="pelvis"/>
    <child link="l_uglut"/>
    <dynamics damping="1.0" friction="0"/>
    <limit effort="110" lower="-0.32" upper="1.14" velocity="12"/>
    <safety_controller k_position="100" k_velocity="100" soft_lower_limit="-10.32" soft_upper_limit="11.14"/>
  </joint>
  <joint name="neck_ry" type="revolute">
    <!-- per slides on sensor head kinematics 2013-02-13 -->
    <origin rpy="0 -0 0" xyz="0.21672 0 0.53796"/>
    <axis xyz="0 1 0"/>
    <parent link="utorso"/>
    <child link="head"/>
    <dynamics damping="1.0" friction="0"/>
    <!-- per slides on sensor head kinematics 2012-12-14 -->
    <limit effort="5" lower="-0.610865238" upper="1.13446401" velocity="12"/>
    <safety_controller k_position="100" k_velocity="100" soft_lower_limit="-10.610865238" soft_upper_limit="11.13446401"/>
  </joint>
  <joint name="r_arm_elx" type="revolute">
    <origin rpy="0 -0 0" xyz="0 -0.121 0.013"/>
    <axis xyz="1 0 0"/>
    <parent link="r_uarm"/>
    <child link="r_larm"/>
    <dynamics damping="1.0" friction="0"/>
    <limit effort="114" lower="-2.35619" upper="0" velocity="12"/>
    <safety_controller k_position="100" k_velocity="100" soft_lower_limit="-12.3562" soft_upper_limit="10"/>
  </joint>
  <joint name="r_arm_ely" type="revolute">
    <origin rpy="0 -0 0" xyz="0 -0.185 0"/>
    <axis xyz="0 1 0"/>
    <parent link="r_scap"/>
    <child link="r_uarm"/>
    <dynamics damping="1.0" friction="0"/>
    <limit effort="114" lower="0" upper="3.14159" velocity="12"/>
    <safety_controller k_position="100" k_velocity="100" soft_lower_limit="-10" soft_upper_limit="13.1416"/>
  </joint>
  <joint name="r_arm_wrx" type="revolute">
    <origin rpy="0 -0 0" xyz="0 -0.058 0"/>
    <axis xyz="1 0 0"/>
    <parent link="r_farm"/>
    <child link="r_hand"/>
    <dynamics damping="1.0" friction="0"/>
    <limit effort="60" lower="-1.571" upper="0.436" velocity="12"/>
    <safety_controller k_position="100" k_velocity="100" soft_lower_limit="-11.571" soft_upper_limit="10.436"/>
  </joint>
  <joint name="r_arm_shx" type="revolute">
    <origin rpy="0 -0 0" xyz="0 -0.075 0.036"/>
    <axis xyz="1 0 0"/>
    <parent link="r_clav"/>
    <child link="r_scap"/>
    <dynamics damping="1.0" friction="0"/>
    <limit effort="170" lower="-1.74533" upper="1.39626" velocity="12"/>
    <safety_controller k_position="100" k_velocity="100" soft_lower_limit="-11.7453" soft_upper_limit="11.3963"/>
  </joint>
  <joint name="r_arm_shy" type="revolute">
    <origin rpy="0 -0 0" xyz="0.024 -0.221 0.289"/>
    <axis xyz="0 0.5 -0.866025"/>
    <parent link="utorso"/>
    <child link="r_clav"/>
    <dynamics damping="1.0" friction="0"/>
    <limit effort="212" lower="-1.9635" upper="1.9635" velocity="12"/>
    <safety_controller k_position="100" k_velocity="100" soft_lower_limit="-11.9635" soft_upper_limit="11.9635"/>
  </joint>
  <joint name="r_arm_wry" type="revolute">
    <origin rpy="0 -0 0" xyz="0 -0.188 -0.013"/>
    <axis xyz="0 1 0"/>
    <parent link="r_larm"/>
    <child link="r_farm"/>
    <dynamics damping="1.0" friction="0"/>
    <limit effort="114" lower="-1.571" upper="1.571" velocity="12"/>
    <safety_controller k_position="100" k_velocity="100" soft_lower_limit="-11.571" soft_upper_limit="11.571"/>
  </joint>
  <joint name="r_leg_kny" type="revolute">
    <origin rpy="0 -0 0" xyz="-0.05 0 -0.374"/>
    <axis xyz="0 1 0"/>
    <parent link="r_uleg"/>
    <child link="r_lleg"/>
    <dynamics damping="1.0" friction="0"/>
    <limit effort="400" lower="0" upper="2.45" velocity="12"/>
    <safety_controller k_position="100" k_velocity="100" soft_lower_limit="-10" soft_upper_limit="12.45"/>
  </joint>
  <joint name="r_leg_akx" type="revolute">
    <origin rpy="0 -0 0" xyz="0 0 0"/>
    <axis xyz="1 0 0"/>
    <parent link="r_talus"/>
    <child link="r_foot"/>
    <dynamics damping="1.0" friction="0"/>
    <limit effort="90" lower="-0.436" upper="0.436" velocity="12"/>
    <safety_controller k_position="100" k_velocity="100" soft_lower_limit="-10.436" soft_upper_limit="10.436"/>
  </joint>
  <joint name="r_leg_hpy" type="revolute">
    <origin rpy="0 -0 0" xyz="0.05 0 -0.05"/>
    <axis xyz="0 1 0"/>
    <parent link="r_lglut"/>
    <child link="r_uleg"/>
    <dynamics damping="1.0" friction="0"/>
    <limit effort="260" lower="-1.745" upper="0.524" velocity="12"/>
    <safety_controller k_position="100" k_velocity="100" soft_lower_limit="-11.745" soft_upper_limit="10.524"/>
  </joint>
  <joint name="r_leg_hpx" type="revolute">
    <origin rpy="0 -0 0" xyz="0 0 0"/>
    <axis xyz="1 0 0"/>
    <parent link="r_uglut"/>
    <child link="r_lglut"/>
    <dynamics damping="1.0" friction="0"/>
    <limit effort="180" lower="-0.495" upper="0.47" velocity="12"/>
    <safety_controller k_position="100" k_velocity="100" soft_lower_limit="-10.495" soft_upper_limit="10.47"/>
  </joint>
  <joint name="r_leg_aky" type="revolute">
    <origin rpy="0 -0 0" xyz="0 0 -0.422"/>
    <axis xyz="0 1 0"/>
    <parent link="r_lleg"/>
    <child link="r_talus"/>
    <dynamics damping="1.0" friction="0"/>
    <limit effort="220" lower="-0.9" upper="0.698" velocity="12"/>
    <safety_controller k_position="100" k_velocity="100" soft_lower_limit="-10.698" soft_upper_limit="10.698"/>
  </joint>
  <joint name="r_leg_hpz" type="revolute">
    <origin rpy="0 -0 0" xyz="0 -0.089 0"/>
    <axis xyz="0 0 1"/>
    <parent link="pelvis"/>
    <child link="r_uglut"/>
    <dynamics damping="1.0" friction="0"/>
    <limit effort="110" lower="-1.14" upper="0.32" velocity="12"/>
    <safety_controller k_position="100" k_velocity="100" soft_lower_limit="-11.14" soft_upper_limit="10.32"/>
  </joint>
  <link name="r_situational_awareness_camera_link">
    <inertial>
      <mass value="0.1"/>
      <origin xyz="0 0 0"/>
      <inertia ixx="0.00001" ixy="0" ixz="0" iyy="0.00001" iyz="0" izz="0.00001"/>
    </inertial>
    <visual>
      <origin rpy="0 0 0" xyz="0 0 0"/>
      <geometry>
        <box size="0.01 0.01 0.01"/>
      </geometry>
    </visual>
  </link>
  <joint name="r_situational_awareness_camera_joint" type="fixed">
    <parent link="utorso"/>
    <child link="r_situational_awareness_camera_link"/>
    <!-- if camera points x-forward, bottom towards front of robot, 15 degree yaw forwards from
           lateral (+y) view -->
    <origin rpy="1.57079633 0 -1.30899694" xyz="0.216409 -0.121799 0.406759"/>
  </joint>
  <joint name="r_situational_awareness_camera_optical_frame_joint" type="fixed">
    <origin rpy="-1.5708 0.0 -1.5708" xyz="0 0 0"/>
    <parent link="r_situational_awareness_camera_link"/>
    <child link="r_situational_awareness_camera_optical_frame"/>
  </joint>
  <link name="r_situational_awareness_camera_optical_frame"/>
  <link name="l_situational_awareness_camera_link">
    <inertial>
      <mass value="0.1"/>
      <origin xyz="0 0 0"/>
      <inertia ixx="0.00001" ixy="0" ixz="0" iyy="0.00001" iyz="0" izz="0.00001"/>
    </inertial>
    <visual>
      <origin rpy="0 0 0" xyz="0 0 0"/>
      <geometry>
        <box size="0.01 0.01 0.01"/>
      </geometry>
    </visual>
  </link>
  <joint name="l_situational_awareness_camera_joint" type="fixed">
    <parent link="utorso"/>
    <child link="l_situational_awareness_camera_link"/>
    <!-- if camera points x-forward, bottom towards front of robot, 15 degree yaw forwards from
           lateral (+y) view -->
    <origin rpy="-1.57079633 0 1.30899694" xyz="0.216409 0.121799 0.406759"/>
  </joint>
  <joint name="l_situational_awareness_camera_optical_frame_joint" type="fixed">
    <origin rpy="-1.5708 0.0 -1.5708" xyz="0 0 0"/>
    <parent link="l_situational_awareness_camera_link"/>
    <child link="l_situational_awareness_camera_optical_frame"/>
  </joint>
  <link name="l_situational_awareness_camera_optical_frame"/>
  <gazebo>
    <!-- robot model offset -->
    <pose>0 0 0.93 0 0 0</pose>
  </gazebo>
  <gazebo>
    <plugin filename="libAtlasPlugin.so" name="atlas_plugin"/>
    <plugin filename="libgazebo_ros_joint_trajectory.so" name="joint_trajectory_plugin">
      <topicName>joint_trajectory</topicName>
      <updateRate>1000.0</updateRate>
    </plugin>
    <!--
    <plugin filename="libgazebo_ros_controller_manager.so" name="gazebo_ros_controller_manager">
      <alwaysOn>true</alwaysOn>
      <updateRate>1000.0</updateRate>
    </plugin>
    -->
  </gazebo>
  <link name="imu_link">
    <inertial>
      <mass value="0.1"/>
      <origin xyz="0 0 0"/>
      <inertia ixx="0.001" ixy="0" ixz="0" iyy="0.001" iyz="0" izz="0.001"/>
    </inertial>
    <visual>
      <origin rpy="0 0 0" xyz="0 0 0"/>
      <geometry>
        <box size="0.01 0.01 0.01"/>
      </geometry>
    </visual>
  </link>
  <joint name="imu_joint" type="fixed">
    <parent link="pelvis"/>
    <child link="imu_link"/>
    <origin rpy="0 0 0" xyz="0.05991527603 0 -0.01415"/>
  </joint>
  <gazebo reference="imu_link">
    <!-- this is expected to be reparented to pelvis with appropriate offset
         when imu_link is reduced by fixed joint reduction -->
    <!-- todo: this is working with gazebo 1.4, need to write a unit test -->
    <sensor name="imu_sensor" type="imu">
      <always_on>1</always_on>
      <update_rate>1000.0</update_rate>
      <imu>
        <noise>
          <type>gaussian</type>
          <!-- Noise parameters from Boston Dynamics
               (http://gazebosim.org/wiki/Sensor_noise):
                 rates (rad/s): mean=0, stddev=2e-4
                 accels (m/s/s): mean=0, stddev=1.7e-2
                 rate bias (rad/s): 5e-6 - 1e-5
                 accel bias (m/s/s): 1e-1
               Experimentally, simulation provide rates with noise of
               about 1e-3 rad/s and accels with noise of about 1e-1 m/s/s.
               So we don't expect to see the noise unless number of inner iterations
               are increased.

               We will add bias.  In this model, bias is sampled once for rates
               and once for accels at startup; the sign (negative or positive)
               of each bias is then switched with equal probability.  Thereafter,
               the biases are fixed additive offsets.  We choose
               bias means and stddevs to produce biases close to the provided
               data. -->
          <rate>
            <mean>0.0</mean>
            <stddev>2e-4</stddev>
            <bias_mean>0.0000075</bias_mean>
            <bias_stddev>0.0000008</bias_stddev>
          </rate>
          <accel>
            <mean>0.0</mean>
            <stddev>1.7e-2</stddev>
            <bias_mean>0.1</bias_mean>
            <bias_stddev>0.001</bias_stddev>
          </accel>
        </noise>
      </imu>
    </sensor>
  </gazebo>
  <gazebo reference="l_arm_wrx">
    <provideFeedback>1</provideFeedback>
  </gazebo>
  <gazebo reference="r_arm_wrx">
    <provideFeedback>1</provideFeedback>
  </gazebo>
  <gazebo reference="l_leg_akx">
    <provideFeedback>1</provideFeedback>
    <cfmDamping>1</cfmDamping>
  </gazebo>
  <gazebo reference="r_leg_akx">
    <provideFeedback>1</provideFeedback>
    <cfmDamping>1</cfmDamping>
  </gazebo>
  <gazebo reference="r_foot">
    <!-- kp and kd for rubber -->
    <kp>1000000.0</kp>
    <kd>100.0</kd>
    <mu1>1.5</mu1>
    <mu2>1.5</mu2>
    <fdir1>1 0 0</fdir1>
    <maxVel>1.0</maxVel>
    <minDepth>0.00</minDepth>
  </gazebo>
  <gazebo reference="l_foot">
    <kp>1000000.0</kp>
    <kd>100.0</kd>
    <mu1>1.5</mu1>
    <mu2>1.5</mu2>
    <fdir1>1 0 0</fdir1>
    <maxVel>1.0</maxVel>
    <minDepth>0.00</minDepth>
  </gazebo>
  <gazebo reference="l_clav">
    <mu1>0.9</mu1>
    <mu2>0.9</mu2>
  </gazebo>
  <gazebo reference="l_farm">
    <mu1>0.9</mu1>
    <mu2>0.9</mu2>
  </gazebo>
  <gazebo reference="l_hand">
    <mu1>0.9</mu1>
    <mu2>0.9</mu2>
  </gazebo>
  <gazebo reference="l_larm">
    <mu1>0.9</mu1>
    <mu2>0.9</mu2>
  </gazebo>
  <gazebo reference="l_lglut">
    <mu1>0.9</mu1>
    <mu2>0.9</mu2>
  </gazebo>
  <gazebo reference="l_lleg">
    <mu1>0.9</mu1>
    <mu2>0.9</mu2>
  </gazebo>
  <gazebo reference="l_scap">
    <mu1>0.9</mu1>
    <mu2>0.9</mu2>
  </gazebo>
  <gazebo reference="l_talus">
    <mu1>0.9</mu1>
    <mu2>0.9</mu2>
  </gazebo>
  <gazebo reference="l_uarm">
    <mu1>0.9</mu1>
    <mu2>0.9</mu2>
  </gazebo>
  <gazebo reference="l_uglut">
    <mu1>0.9</mu1>
    <mu2>0.9</mu2>
  </gazebo>
  <gazebo reference="l_uleg">
    <mu1>0.9</mu1>
    <mu2>0.9</mu2>
  </gazebo>
  <gazebo reference="ltorso">
    <mu1>0.9</mu1>
    <mu2>0.9</mu2>
  </gazebo>
  <gazebo reference="mtorso">
    <mu1>0.9</mu1>
    <mu2>0.9</mu2>
  </gazebo>
  <gazebo reference="pelvis">
    <mu1>0.9</mu1>
    <mu2>0.9</mu2>
  </gazebo>
  <gazebo reference="r_clav">
    <mu1>0.9</mu1>
    <mu2>0.9</mu2>
  </gazebo>
  <gazebo reference="r_farm">
    <mu1>0.9</mu1>
    <mu2>0.9</mu2>
  </gazebo>
  <gazebo reference="r_hand">
    <mu1>0.9</mu1>
    <mu2>0.9</mu2>
  </gazebo>
  <gazebo reference="r_larm">
    <mu1>0.9</mu1>
    <mu2>0.9</mu2>
  </gazebo>
  <gazebo reference="r_lglut">
    <mu1>0.9</mu1>
    <mu2>0.9</mu2>
  </gazebo>
  <gazebo reference="r_lleg">
    <mu1>0.9</mu1>
    <mu2>0.9</mu2>
  </gazebo>
  <gazebo reference="r_scap">
    <mu1>0.9</mu1>
    <mu2>0.9</mu2>
  </gazebo>
  <gazebo reference="r_talus">
    <mu1>0.9</mu1>
    <mu2>0.9</mu2>
  </gazebo>
  <gazebo reference="r_uarm">
    <mu1>0.9</mu1>
    <mu2>0.9</mu2>
  </gazebo>
  <gazebo reference="r_uglut">
    <mu1>0.9</mu1>
    <mu2>0.9</mu2>
  </gazebo>
  <gazebo reference="r_uleg">
    <mu1>0.9</mu1>
    <mu2>0.9</mu2>
  </gazebo>
  <gazebo reference="utorso">
    <mu1>0.9</mu1>
    <mu2>0.9</mu2>
  </gazebo>
  <gazebo>
    <plugin filename="libgazebo_ros_p3d.so" name="gazebo_ros_p3d">
      <bodyName>pelvis</bodyName>
      <topicName>/ground_truth_odom</topicName>
      <alwaysOn>true</alwaysOn>
      <updateRate>100.0</updateRate>
    </plugin>
  </gazebo>
  <gazebo reference="r_foot">
    <!-- contact sensor -->
    <sensor name="r_foot_contact_sensor" type="contact">
      <update_rate>1000.0</update_rate>
      <always_on>1</always_on>
      <contact>
        <collision>r_foot_collision</collision>
        <topic>/r_foot_contact</topic>
      </contact>
    </sensor>
  </gazebo>
  <gazebo reference="l_foot">
    <!-- contact sensor -->
    <sensor name="l_foot_contact_sensor" type="contact">
      <update_rate>1000.0</update_rate>
      <always_on>1</always_on>
      <contact>
        <collision>l_foot_collision</collision>
        <topic>/l_foot_contact</topic>
      </contact>
    </sensor>
  </gazebo>
  <gazebo>
    <plugin filename="libgazebo_ros_force.so" name="gazebo_ros_force">
      <bodyName>pelvis</bodyName>
      <topicName>/atlas/apply_pelvis_force</topicName>
    </plugin>
  </gazebo>
  <gazebo reference="back_bkz">
    <cfmDamping>1</cfmDamping>
  </gazebo>
  <gazebo reference="back_bky">
    <cfmDamping>1</cfmDamping>
  </gazebo>
  <gazebo reference="back_bkx">
    <cfmDamping>1</cfmDamping>
  </gazebo>
  <gazebo reference="l_arm_elx">
    <cfmDamping>1</cfmDamping>
  </gazebo>
  <gazebo reference="l_arm_ely">
    <cfmDamping>1</cfmDamping>
  </gazebo>
  <gazebo reference="l_arm_wrx">
    <cfmDamping>1</cfmDamping>
  </gazebo>
  <gazebo reference="l_arm_shx">
    <cfmDamping>1</cfmDamping>
  </gazebo>
  <gazebo reference="l_arm_shy">
    <cfmDamping>1</cfmDamping>
  </gazebo>
  <gazebo reference="l_arm_wry">
    <cfmDamping>1</cfmDamping>
  </gazebo>
  <gazebo reference="l_leg_kny">
    <cfmDamping>1</cfmDamping>
  </gazebo>
  <gazebo reference="l_leg_hpy">
    <cfmDamping>1</cfmDamping>
  </gazebo>
  <gazebo reference="l_leg_hpx">
    <cfmDamping>1</cfmDamping>
  </gazebo>
  <gazebo reference="l_leg_aky">
    <cfmDamping>1</cfmDamping>
  </gazebo>
  <gazebo reference="l_leg_hpz">
    <cfmDamping>1</cfmDamping>
  </gazebo>
  <gazebo reference="neck_ry">
    <cfmDamping>1</cfmDamping>
  </gazebo>
  <gazebo reference="r_arm_elx">
    <cfmDamping>1</cfmDamping>
  </gazebo>
  <gazebo reference="r_arm_ely">
    <cfmDamping>1</cfmDamping>
  </gazebo>
  <gazebo reference="r_arm_wrx">
    <cfmDamping>1</cfmDamping>
  </gazebo>
  <gazebo reference="r_arm_shx">
    <cfmDamping>1</cfmDamping>
  </gazebo>
  <gazebo reference="r_arm_shy">
    <cfmDamping>1</cfmDamping>
  </gazebo>
  <gazebo reference="r_arm_wry">
    <cfmDamping>1</cfmDamping>
  </gazebo>
  <gazebo reference="r_leg_kny">
    <cfmDamping>1</cfmDamping>
  </gazebo>
  <gazebo reference="r_leg_hpy">
    <cfmDamping>1</cfmDamping>
  </gazebo>
  <gazebo reference="r_leg_hpx">
    <cfmDamping>1</cfmDamping>
  </gazebo>
  <gazebo reference="r_leg_aky">
    <cfmDamping>1</cfmDamping>
  </gazebo>
  <gazebo reference="r_leg_hpz">
    <cfmDamping>1</cfmDamping>
  </gazebo>
  <transmission name="head_hokuyo_trans" type="pr2_mechanism_model/SimpleTransmission">
    <joint name="hokuyo_joint"/>
    <actuator name="hokuyo_motor"/>
    <mechanicalReduction>1</mechanicalReduction>
  </transmission>
  <transmission name="back_bkz_trans" type="pr2_mechanism_model/SimpleTransmission">
    <joint name="back_bkz"/>
    <actuator name="back_bkz_motor"/>
    <mechanicalReduction>1</mechanicalReduction>
  </transmission>
  <transmission name="back_bky_trans" type="pr2_mechanism_model/SimpleTransmission">
    <actuator name="back_bky_motor"/>
    <joint name="back_bky"/>
    <mechanicalReduction>1</mechanicalReduction>
  </transmission>
  <transmission name="back_bkx_trans" type="pr2_mechanism_model/SimpleTransmission">
    <actuator name="back_bkx_motor"/>
    <joint name="back_bkx"/>
    <mechanicalReduction>1</mechanicalReduction>
  </transmission>
  <transmission name="l_arm_elx_trans" type="pr2_mechanism_model/SimpleTransmission">
    <actuator name="l_arm_elx_motor"/>
    <joint name="l_arm_elx"/>
    <mechanicalReduction>1</mechanicalReduction>
  </transmission>
  <transmission name="l_arm_ely_trans" type="pr2_mechanism_model/SimpleTransmission">
    <actuator name="l_arm_ely_motor"/>
    <joint name="l_arm_ely"/>
    <mechanicalReduction>1</mechanicalReduction>
  </transmission>
  <transmission name="l_arm_wrx_trans" type="pr2_mechanism_model/SimpleTransmission">
    <actuator name="l_arm_wrx_motor"/>
    <joint name="l_arm_wrx"/>
    <mechanicalReduction>1</mechanicalReduction>
  </transmission>
  <transmission name="l_arm_shx_trans" type="pr2_mechanism_model/SimpleTransmission">
    <actuator name="l_arm_shx_motor"/>
    <joint name="l_arm_shx"/>
    <mechanicalReduction>1</mechanicalReduction>
  </transmission>
  <transmission name="l_arm_shy_trans" type="pr2_mechanism_model/SimpleTransmission">
    <actuator name="l_arm_shy_motor"/>
    <joint name="l_arm_shy"/>
    <mechanicalReduction>1</mechanicalReduction>
  </transmission>
  <transmission name="l_arm_wry_trans" type="pr2_mechanism_model/SimpleTransmission">
    <actuator name="l_arm_wry_motor"/>
    <joint name="l_arm_wry"/>
    <mechanicalReduction>1</mechanicalReduction>
  </transmission>
  <transmission name="l_leg_kny_trans" type="pr2_mechanism_model/SimpleTransmission">
    <actuator name="l_leg_kny_motor"/>
    <joint name="l_leg_kny"/>
    <mechanicalReduction>1</mechanicalReduction>
  </transmission>
  <transmission name="l_leg_akx_trans" type="pr2_mechanism_model/SimpleTransmission">
    <actuator name="l_leg_akx_motor"/>
    <joint name="l_leg_akx"/>
    <mechanicalReduction>1</mechanicalReduction>
  </transmission>
  <transmission name="l_leg_hpy_trans" type="pr2_mechanism_model/SimpleTransmission">
    <actuator name="l_leg_hpy_motor"/>
    <joint name="l_leg_hpy"/>
    <mechanicalReduction>1</mechanicalReduction>
  </transmission>
  <transmission name="l_leg_hpx_trans" type="pr2_mechanism_model/SimpleTransmission">
    <actuator name="l_leg_hpx_motor"/>
    <joint name="l_leg_hpx"/>
    <mechanicalReduction>1</mechanicalReduction>
  </transmission>
  <transmission name="l_leg_aky_trans" type="pr2_mechanism_model/SimpleTransmission">
    <actuator name="l_leg_aky_motor"/>
    <joint name="l_leg_aky"/>
    <mechanicalReduction>1</mechanicalReduction>
  </transmission>
  <transmission name="l_leg_hpz_trans" type="pr2_mechanism_model/SimpleTransmission">
    <actuator name="l_leg_hpz_motor"/>
    <joint name="l_leg_hpz"/>
    <mechanicalReduction>1</mechanicalReduction>
  </transmission>
  <transmission name="neck_ry_trans" type="pr2_mechanism_model/SimpleTransmission">
    <actuator name="neck_ry_motor"/>
    <joint name="neck_ry"/>
    <mechanicalReduction>1</mechanicalReduction>
  </transmission>
  <transmission name="r_arm_elx_trans" type="pr2_mechanism_model/SimpleTransmission">
    <actuator name="r_arm_elx_motor"/>
    <joint name="r_arm_elx"/>
    <mechanicalReduction>1</mechanicalReduction>
  </transmission>
  <transmission name="r_arm_ely_trans" type="pr2_mechanism_model/SimpleTransmission">
    <actuator name="r_arm_ely_motor"/>
    <joint name="r_arm_ely"/>
    <mechanicalReduction>1</mechanicalReduction>
  </transmission>
  <transmission name="r_arm_wrx_trans" type="pr2_mechanism_model/SimpleTransmission">
    <actuator name="r_arm_wrx_motor"/>
    <joint name="r_arm_wrx"/>
    <mechanicalReduction>1</mechanicalReduction>
  </transmission>
  <transmission name="r_arm_shx_trans" type="pr2_mechanism_model/SimpleTransmission">
    <actuator name="r_arm_shx_motor"/>
    <joint name="r_arm_shx"/>
    <mechanicalReduction>1</mechanicalReduction>
  </transmission>
  <transmission name="r_arm_shy_trans" type="pr2_mechanism_model/SimpleTransmission">
    <actuator name="r_arm_shy_motor"/>
    <joint name="r_arm_shy"/>
    <mechanicalReduction>1</mechanicalReduction>
  </transmission>
  <transmission name="r_arm_wry_trans" type="pr2_mechanism_model/SimpleTransmission">
    <actuator name="r_arm_wry_motor"/>
    <joint name="r_arm_wry"/>
    <mechanicalReduction>1</mechanicalReduction>
  </transmission>
  <transmission name="r_leg_kny_trans" type="pr2_mechanism_model/SimpleTransmission">
    <actuator name="r_leg_kny_motor"/>
    <joint name="r_leg_kny"/>
    <mechanicalReduction>1</mechanicalReduction>
  </transmission>
  <transmission name="r_leg_akx_trans" type="pr2_mechanism_model/SimpleTransmission">
    <actuator name="r_leg_akx_motor"/>
    <joint name="r_leg_akx"/>
    <mechanicalReduction>1</mechanicalReduction>
  </transmission>
  <transmission name="r_leg_hpy_trans" type="pr2_mechanism_model/SimpleTransmission">
    <actuator name="r_leg_hpy_motor"/>
    <joint name="r_leg_hpy"/>
    <mechanicalReduction>1</mechanicalReduction>
  </transmission>
  <transmission name="r_leg_hpx_trans" type="pr2_mechanism_model/SimpleTransmission">
    <actuator name="r_leg_hpx_motor"/>
    <joint name="r_leg_hpx"/>
    <mechanicalReduction>1</mechanicalReduction>
  </transmission>
  <transmission name="r_leg_aky_trans" type="pr2_mechanism_model/SimpleTransmission">
    <actuator name="r_leg_aky_motor"/>
    <joint name="r_leg_aky"/>
    <mechanicalReduction>1</mechanicalReduction>
  </transmission>
  <transmission name="r_leg_hpz_trans" type="pr2_mechanism_model/SimpleTransmission">
    <actuator name="r_leg_hpz_motor"/>
    <joint name="r_leg_hpz"/>
    <mechanicalReduction>1</mechanicalReduction>
  </transmission>
  <link name="head">
    <inertial>
      <origin rpy="0 0 0" xyz="-0.075493 3.3383E-05 0.02774"/>
      <mass value="1.41984"/>
      <!--<inertia iyy="0.0041178" ixy="-1.5797E-06" iyz="-6.8415E-07" ixx="0.0039688" ixz="-0.00089293" izz="0.0035243" />-->
      <inertia ixx="0.0036053766" ixy="-1.5797E-06" ixz="-0.00089293" iyy="0.002080106" iyz="-6.8415E-07" izz="0.001782985"/>
    </inertial>
    <visual>
      <origin rpy="0 0 0" xyz="0 0 0"/>
      <geometry>
        <mesh filename="package://multisense_sl_description/meshes/head.dae"/>
      </geometry>
      <material name="">
        <color rgba="0.9098 0.44314 0.031373 1"/>
      </material>
    </visual>
    <collision group="default">
      <origin rpy="0 0 0" xyz="-0.0503 0 -0.00195"/>
      <geometry>
        <box size="0.1311 0.12 0.0591"/>
      </geometry>
    </collision>
    <collision group="other">
      <origin rpy="0 0 0" xyz="-0.093 0 0.0868"/>
      <geometry>
        <box size="0.0468 0.12 0.1184"/>
      </geometry>
    </collision>
  </link>
  <link name="hokuyo_link">
    <inertial>
      <origin rpy="0 0 0" xyz="0.012428 0.0004084 -0.0041835"/>
      <mass value="0.057654"/>
      <!--<inertia iyy="4.2412E-05" ixy="4.9927E-08" iyz="-9.8165E-09" ixx="3.7174E-05" ixz="1.1015E-05" izz="4.167E-05" />-->
      <!-- distribute iyy and izz equally between head and hokuyo_link given it's constrainted anyways -->
      <!-- tweak ixx of hokuyo so it's larger, 1/10th of head ixx. -->
      <inertia ixx="0.0004005974" ixy="4.9927E-08" ixz="1.1015E-05" iyy="0.002080106" iyz="-9.8165E-09" izz="0.001782985"/>
    </inertial>
    <visual>
      <!--origin xyz="0.065774 -0.001163 -0.08809" rpy="0 0 0" /-->
      <!--origin xyz="0.045 -0.001163 -0.08809" rpy="-0.314 0 0" /-->
      <origin rpy="-0.314 0 0" xyz="0.045 -0.0261018277 -0.08342369"/>
      <geometry>
        <mesh filename="package://multisense_sl_description/meshes/head_camera.dae"/>
      </geometry>
      <material name="">
        <color rgba="0.72941 0.35686 0.023529 1"/>
      </material>
    </visual>
    <collision group="default">
      <origin rpy="0 0 0" xyz="0.01885 0 -0.02119"/>
      <geometry>
        <box size="0.08 0.06 0.04238"/>
      </geometry>
    </collision>
    <collision group="other">
      <origin rpy="0 0 0" xyz="0.03 0 0.0235"/>
      <geometry>
        <cylinder length="0.047" radius="0.024425"/>
      </geometry>
    </collision>
  </link>
  <gazebo reference="head">
    <mu1>0.9</mu1>
    <mu2>0.9</mu2>
  </gazebo>
  <gazebo reference="hokuyo_link">
    <mu1>0.9</mu1>
    <mu2>0.9</mu2>
  </gazebo>
  <joint name="hokuyo_joint" type="continuous">
    <origin rpy="0 0 0" xyz="-0.0446 0 0.0880"/>
    <parent link="head"/>
    <child link="hokuyo_link"/>
    <axis xyz="1 0 0"/>
    <dynamics damping="0.01" friction="0"/>
  </joint>
  <joint name="head_hokuyo_joint" type="fixed">
    <axis xyz="0 1 0"/>
    <origin rpy="0 0 0" xyz="0.03 0 0.015"/>
    <parent link="hokuyo_link"/>
    <child link="head_hokuyo_frame"/>
  </joint>
  <link name="head_hokuyo_frame">
    <inertial>
      <mass value="1e-5"/>
      <!-- collocate with parent link and remove mass from it -->
      <origin rpy="0 0 0" xyz="0.042428 0.0004084 0.0108165"/>
      <inertia ixx="1e-6" ixy="0" ixz="0" iyy="1e-6" iyz="0" izz="1e-6"/>
    </inertial>
  </link>
  <gazebo reference="head_hokuyo_frame">
    <sensor name="head_hokuyo_sensor" type="gpu_ray">
      <pose>0 0 0 0 0 0</pose>
      <visualize>false</visualize>
      <update_rate>40</update_rate>
      <ray>
        <scan>
          <horizontal>
            <samples>720</samples>
            <resolution>1</resolution>
            <min_angle>-1.570796</min_angle>
            <max_angle>1.570796</max_angle>
          </horizontal>
        </scan>
        <range>
          <min>0.10</min>
          <max>30.0</max>
          <resolution>0.01</resolution>
        </range>
        <noise>
          <type>gaussian</type>
          <!-- Noise parameters based on published spec for Hokuyo laser
               achieving "+-30mm" accuracy at range < 10m.  A mean of 0.0m and
               stddev of 0.01m will put 99.7% of samples within 0.03m of the true
               reading. -->
          <mean>0.0</mean>
          <stddev>0.01</stddev>
        </noise>
      </ray>
      <plugin filename="libgazebo_ros_gpu_laser.so" name="gazebo_ros_head_hokuyo_controller">
        <topicName>/multisense_sl/laser/scan</topicName>
        <frameName>head_hokuyo_frame</frameName>
      </plugin>
    </sensor>
  </gazebo>
  <joint name="left_camera_frame_joint" type="fixed">
    <!-- optical frame collocated with tilting DOF -->
    <origin xyz="0.0 0.035 -0.002"/>
    <parent link="head"/>
    <child link="left_camera_frame"/>
  </joint>
  <link name="left_camera_frame">
    <inertial>
      <mass value="1e-5"/>
      <!-- collocate with parent link and remove mass from it -->
      <origin xyz="-0.075493 0.035033383 0.02574"/>
      <inertia ixx="1e-6" ixy="0" ixz="0" iyy="1e-6" iyz="0" izz="1e-6"/>
    </inertial>
  </link>
  <joint name="left_camera_optical_frame_joint" type="fixed">
    <origin rpy="-1.5708 0.0 -1.5708" xyz="0 0 0"/>
    <parent link="left_camera_frame"/>
    <child link="left_camera_optical_frame"/>
  </joint>
  <link name="left_camera_optical_frame"/>
  <gazebo reference="left_camera_frame">
    <sensor name="stereo_camera" type="multicamera">
      <!-- see MultiSenseSLPlugin.h for available modes -->
      <update_rate>30.0</update_rate>
      <camera name="left">
        <!-- Spec sheet says 80deg X 45deg @ 1024x544pix.  Based on feedback
             from teams, we're instead doing 80deg X 80deg @ 800x800pix. -->
        <horizontal_fov>1.3962634</horizontal_fov>
        <image>
          <width>800</width>
          <height>800</height>
          <format>R8G8B8</format>
        </image>
        <clip>
          <near>0.02</near>
          <far>300</far>
        </clip>
        <noise>
          <type>gaussian</type>
          <!-- Noise is sampled independently per pixel on each frame.  
               That pixel's noise value is added to each of its color
               channels, which at that point lie in the range [0,1].
               The stddev value of 0.007 is based on experimental data 
               from a camera in a Sandia hand pointed at a static scene
               in a couple of different lighting conditions.  -->
          <mean>0.0</mean>
          <stddev>0.007</stddev>
        </noise>
      </camera>
      <camera name="right">
        <pose>0 -0.07 0 0 0 0</pose>
        <!-- Spec sheet says 80deg X 45deg @ 1024x544pix.  Based on feedback
             from teams, we're instead doing 80deg X 80deg @ 800x800pix. -->
        <horizontal_fov>1.3962634</horizontal_fov>
        <image>
          <width>800</width>
          <height>800</height>
          <format>R8G8B8</format>
        </image>
        <clip>
          <near>0.02</near>
          <far>300</far>
        </clip>
        <noise>
          <type>gaussian</type>
          <!-- Noise is sampled independently per pixel on each frame.  
               That pixel's noise value is added to each of its color
               channels, which at that point lie in the range [0,1].
               The stddev value of 0.007 is based on experimental data 
               from a camera in a Sandia hand pointed at a static scene
               in a couple of different lighting conditions.  -->
          <mean>0.0</mean>
          <stddev>0.007</stddev>
        </noise>
      </camera>
      <plugin filename="libgazebo_ros_multicamera.so" name="stereo_camera_controller">
        <alwaysOn>true</alwaysOn>
        <updateRate>0.0</updateRate>
        <cameraName>multisense_sl/camera</cameraName>
        <imageTopicName>image_raw</imageTopicName>
        <cameraInfoTopicName>camera_info</cameraInfoTopicName>
        <frameName>left_camera_optical_frame</frameName>
        <!--<rightFrameName>right_camera_optical_frame</rightFrameName>-->
        <hackBaseline>0.07</hackBaseline>
        <distortionK1>0.0</distortionK1>
        <distortionK2>0.0</distortionK2>
        <distortionK3>0.0</distortionK3>
        <distortionT1>0.0</distortionT1>
        <distortionT2>0.0</distortionT2>
      </plugin>
    </sensor>
  </gazebo>
  <joint name="right_camera_frame_joint" type="fixed">
    <origin xyz="0.0 -0.035 -0.002"/>
    <parent link="head"/>
    <child link="right_camera_frame"/>
  </joint>
  <link name="right_camera_frame">
    <inertial>
      <mass value="1e-5"/>
      <!-- collocate with parent link and remove mass from it -->
      <origin xyz="-0.075493 -0.034966617 0.02574"/>
      <inertia ixx="1e-6" ixy="0" ixz="0" iyy="1e-6" iyz="0" izz="1e-6"/>
    </inertial>
  </link>
  <joint name="right_camera_optical_frame_joint" type="fixed">
    <origin rpy="-1.5708 0.0 -1.5708" xyz="0 0 0"/>
    <parent link="right_camera_frame"/>
    <child link="right_camera_optical_frame"/>
  </joint>
  <link name="right_camera_optical_frame"/>
  <joint name="center_top_led_frame_joint" type="fixed">
    <origin xyz="0.01125 0.0 0.0105"/>
    <parent link="head"/>
    <child link="center_top_led_frame"/>
  </joint>
  <link name="center_top_led_frame">
    <inertial>
      <mass value="1e-5"/>
      <!-- collocate with parent link and remove mass from it -->
      <origin rpy="0 0 0" xyz="-0.064243 0.000033383 0.03824"/>
      <inertia ixx="1e-6" ixy="0" ixz="0" iyy="1e-6" iyz="0" izz="1e-6"/>
    </inertial>
  </link>
  <joint name="center_bottom_led_frame_joint" type="fixed">
    <origin xyz="0.01125 0.0 -0.0155"/>
    <parent link="head"/>
    <child link="center_bottom_led_frame"/>
  </joint>
  <link name="center_bottom_led_frame">
    <inertial>
      <mass value="1e-5"/>
      <!-- collocate with parent link and remove mass from it -->
      <origin rpy="0 0 0" xyz="-0.064243 0.000033383 0.01224"/>
      <inertia ixx="1e-6" ixy="0" ixz="0" iyy="1e-6" iyz="0" izz="1e-6"/>
    </inertial>
  </link>
  <joint name="left_led_frame_joint" type="fixed">
    <origin rpy="0 -0.15 0.53" xyz="-0.01443 0.07452 0.050346"/>
    <parent link="head"/>
    <child link="left_led_frame"/>
  </joint>
  <link name="left_led_frame">
    <inertial>
      <mass value="1e-5"/>
      <!-- collocate with parent link and remove mass from it -->
      <origin rpy="0 -0.15 0.53" xyz="-0.089923 0.074553383 0.078086"/>
      <inertia ixx="1e-6" ixy="0" ixz="0" iyy="1e-6" iyz="0" izz="1e-6"/>
    </inertial>
  </link>
  <joint name="right_led_frame_joint" type="fixed">
    <origin rpy="0 -0.15 -0.53" xyz="-0.01443 -0.07452 0.050346"/>
    <parent link="head"/>
    <child link="right_led_frame"/>
  </joint>
  <link name="right_led_frame">
    <inertial>
      <mass value="1e-5"/>
      <!-- collocate with parent link and remove mass from it -->
      <origin rpy="0 -0.15 -0.53" xyz="-0.089923 -0.074486617 0.07908"/>
      <inertia ixx="1e-6" ixy="0" ixz="0" iyy="1e-6" iyz="0" izz="1e-6"/>
    </inertial>
  </link>
  <gazebo>
    <plugin filename="libMultiSenseSLPlugin.so" name="multisense_plugin"/>
  </gazebo>
  <link name="head_imu_link">
    <inertial>
      <mass value="1e-5"/>
      <!-- collocate with parent link and remove mass from it -->
      <origin rpy="0 0 0" xyz="-0.122993 0.035033383 0.02774"/>
      <inertia ixx="1e-6" ixy="0" ixz="0" iyy="1e-6" iyz="0" izz="1e-6"/>
    </inertial>
    <visual>
      <origin rpy="0 0 0" xyz="0 0 0"/>
      <geometry>
        <box size="0.01 0.01 0.01"/>
      </geometry>
    </visual>
  </link>
  <joint name="head_imu_joint" type="fixed">
    <parent link="head"/>
    <child link="head_imu_link"/>
    <!-- putting it at the same z-level as the stereo -->
    <origin rpy="0 0 0" xyz="-0.0475 0.035 0.0"/>
  </joint>
  <gazebo reference="head_imu_link">
    <!-- this is expected to be reparented to head with appropriate offset
         when head_imu_link is reduced by fixed joint reduction -->
    <!-- todo: this is working with gazebo 1.4, need to write a unit test -->
    <sensor name="head_imu_sensor" type="imu">
      <always_on>1</always_on>
      <update_rate>1000.0</update_rate>
      <imu>
        <noise>
          <type>gaussian</type>
          <!-- Noise parameters from Boston Dynamics
               (http://gazebosim.org/wiki/Sensor_noise):
                 rates (rad/s): mean=0, stddev=2e-4
                 accels (m/s/s): mean=0, stddev=1.7e-2
                 rate bias (rad/s): 5e-6 - 1e-5
                 accel bias (m/s/s): 1e-1
               Experimentally, simulation provide rates with noise of
               about 1e-3 rad/s and accels with noise of about 1e-1 m/s/s.
               So we don't expect to see the noise unless number of inner iterations
               are increased.

               We will add bias.  In this model, bias is sampled once for rates
               and once for accels at startup; the sign (negative or positive)
               of each bias is then switched with equal probability.  Thereafter,
               the biases are fixed additive offsets.  We choose
               bias means and stddevs to produce biases close to the provided
               data. -->
          <rate>
            <mean>0.0</mean>
            <stddev>2e-4</stddev>
            <bias_mean>0.0000075</bias_mean>
            <bias_stddev>0.0000008</bias_stddev>
          </rate>
          <accel>
            <mean>0.0</mean>
            <stddev>1.7e-2</stddev>
            <bias_mean>0.1</bias_mean>
            <bias_stddev>0.001</bias_stddev>
          </accel>
        </noise>
      </imu>
    </sensor>
  </gazebo>
  <link name="left_palm">
    <origin rpy="0 0 0" xyz="0 0 0"/>
    <inertial>
      <mass value="1.303"/>
      <origin xyz="0 0 0"/>
      <!-- solid sphere with 5cm radius -->
      <inertia ixx="0.001303" ixy="0" ixz="0" iyy="0.001303" iyz="0" izz="0.001303"/>
    </inertial>
    <!-- begin simple shape approximation of palm -->
    <collision group="default">
      <origin rpy="0 1.57079632679 0.9" xyz="0.069 -0.016 0.038"/>
      <geometry>
        <cylinder length="0.100" radius="0.013"/>
      </geometry>
    </collision>
    <collision group="other">
      <origin rpy="-0.41 0 0.9" xyz="0.064 -0.008 0.021"/>
      <geometry>
        <box size="0.09 .035 .05"/>
      </geometry>
    </collision>
    <collision group="other">
      <origin rpy="0 1.57079632679 0" xyz="0.02 0 -0.005"/>
      <geometry>
        <cylinder length="0.05" radius="0.038"/>
      </geometry>
    </collision>
    <collision group="other">
      <origin rpy="0 0 -0.37" xyz="0.11 0.01 -0.005"/>
      <geometry>
        <box size="0.09 .03 .06"/>
      </geometry>
    </collision>
    <collision group="other">
      <origin rpy="0 0 -0.37" xyz="0.09 -0.02 -0.005"/>
      <geometry>
        <box size="0.09 .03 .06"/>
      </geometry>
    </collision>
    <collision group="other">
      <origin rpy="0 0 -0.37" xyz="0.060 -0.05 -0.005"/>
      <geometry>
        <box size="0.09 .03 .06"/>
      </geometry>
    </collision>
    <collision group="other">
      <origin rpy="0 0 -0.79" xyz="0.044 0.04 -0.005"/>
      <geometry>
        <box size="0.09 .03 .06"/>
      </geometry>
    </collision>
    <!--   end simple shape approximation of palm -->
    <!-- begin visual shape approximation of palm -->
    <visual>
      <origin rpy="0 1.57079632679 0.9" xyz="0.069 -0.016 0.038"/>
      <geometry>
        <cylinder length="0.100" radius="0.013"/>
      </geometry>
      <material name="left_sandia_hand_skin">
        <color rgba="0.835 0.655 0.345 1.0"/>
      </material>
    </visual>
    <visual>
      <origin rpy="-0.41 0 0.9" xyz="0.064 -0.008 0.021"/>
      <geometry>
        <box size="0.09 .035 .05"/>
      </geometry>
      <material name="left_sandia_hand_skin">
        <color rgba="0.835 0.655 0.345 1.0"/>
      </material>
    </visual>
    <visual>
      <origin rpy="0 1.57079632679 0" xyz="0.02 0 -0.005"/>
      <geometry>
        <cylinder length="0.05" radius="0.038"/>
      </geometry>
      <material name="left_sandia_hand_skin">
        <color rgba="0.835 0.655 0.345 1.0"/>
      </material>
    </visual>
    <visual>
      <origin rpy="0 0 -0.37" xyz="0.11 0.01 -0.005"/>
      <geometry>
        <box size="0.09 .03 .06"/>
      </geometry>
      <material name="left_sandia_hand_skin">
        <color rgba="0.835 0.655 0.345 1.0"/>
      </material>
    </visual>
    <visual>
      <origin rpy="0 0 -0.37" xyz="0.09 -0.02 -0.005"/>
      <geometry>
        <box size="0.09 .03 .06"/>
      </geometry>
      <material name="left_sandia_hand_skin">
        <color rgba="0.835 0.655 0.345 1.0"/>
      </material>
    </visual>
    <visual>
      <origin rpy="0 0 -0.37" xyz="0.060 -0.05 -0.005"/>
      <geometry>
        <box size="0.09 .03 .06"/>
      </geometry>
      <material name="left_sandia_hand_skin">
        <color rgba="0.835 0.655 0.345 1.0"/>
      </material>
    </visual>
    <visual>
      <origin rpy="0 0 -0.79" xyz="0.044 0.04 -0.005"/>
      <geometry>
        <box size="0.09 .03 .06"/>
      </geometry>
      <material name="left_sandia_hand_skin">
        <color rgba="0.835 0.655 0.345 1.0"/>
      </material>
    </visual>
    <!--   end visual shape approximation of palm -->
    <!-- begin collision mesh of f2 ->
      <collision group="default">
        <origin xyz="0 0 0" rpy="0 0 0"/>
        <geometry>
          <mesh filename="package://sandia_hand_description/meshes/palm.stl"/>
        </geometry>
      </collision>
      <!-   end collision mesh of f2 -->
    <!-- begin visual mesh of f2    ->
      <visual>
        <origin xyz="0 0 0" rpy="0 0 0"/>
        <geometry>
          <mesh filename="package://sandia_hand_description/meshes/palm.stl"/>
        </geometry>
        <material name="${side}_sandia_hand_skin">
          <color rgba="0.835 0.655 0.345 1.0"/>
        </material>
      </visual>
      <!-   end visual mesh of f2 -->
  </link>
  <joint name="left_sandia_hand_joint" type="fixed">
    <parent link="l_hand"/>
    <child link="left_palm"/>
    <origin rpy="0 0  1.57079" xyz="0.00179  0.13516 0.01176"/>
  </joint>
  <link name="left_f0_base">
    <origin rpy="0 0 0" xyz="0 0 0"/>
    <inertial>
      <!-- total mass is 2.303 kg, palm is about 1.303 kg, distribute the rest into _base -->
      <mass value="0.250"/>
      <!-- (2.303 - 1.303) / 4 -->
      <origin xyz="0 0 0"/>
      <!-- model as sphere with radius of 1cm -->
      <inertia ixx="0.00001" ixy="0" ixz="0" iyy="0.00001" iyz="0" izz="0.00001"/>
    </inertial>
  </link>
  <link name="left_f0_fixed_accel">
    <origin rpy="0 0 0" xyz="0 0 0"/>
    <inertial>
      <mass value="0.01"/>
      <origin xyz="0 0 0"/>
      <inertia ixx="0.000001" ixy="0" ixz="0" iyy="0.000001" iyz="0" izz="0.000001"/>
    </inertial>
  </link>
  <link name="left_f0_0">
    <origin rpy="0 0 0" xyz="0 0 0"/>
    <inertial>
      <mass value="0.106"/>
      <!-- F1 -->
      <origin xyz="0 0 0"/>
      <!-- solid cylinder -->
      <inertia ixx="0.000011925" ixy="0" ixz="0" iyy="0.00011505" iyz="0" izz="0.00011505"/>
    </inertial>
    <!-- begin simple shape approximation of f0 -->
    <collision group="default">
      <origin rpy="0 0 0" xyz="0 0 0.003"/>
      <geometry>
        <cylinder length="0.023" radius="0.015"/>
      </geometry>
    </collision>
    <collision group="other">
      <origin rpy="1.57079632679 0 0" xyz="0.011 0 0.003"/>
      <geometry>
        <cylinder length="0.023" radius="0.01"/>
      </geometry>
    </collision>
    <!--   end simple shape approximation of f0 -->
    <!-- begin visual shape approximation of f0 -->
    <visual>
      <origin rpy="0 0 0" xyz="0 0 0.003"/>
      <geometry>
        <cylinder length="0.023" radius="0.015"/>
      </geometry>
      <material name="left_sandia_hand_skin_suntan">
        <color rgba="0.7 0.4 0.2 1.0"/>
      </material>
    </visual>
    <visual>
      <origin rpy="1.57079632679 0 0" xyz="0.011 0 0.003"/>
      <geometry>
        <cylinder length="0.023" radius="0.01"/>
      </geometry>
      <material name="left_sandia_hand_skin_suntan">
        <color rgba="0.7 0.4 0.2 1.0"/>
      </material>
    </visual>
    <!--   end visual shape approximation of f0 -->
    <!-- begin collision mesh of f0 ->
      <collision group="default">
        <origin xyz="0 0 0" rpy="0 0 0"/>
        <geometry>
          <mesh filename="package://sandia_hand_description/meshes/f0.stl"/>
        </geometry>
      </collision>
      <!-   end collision mesh of f0 -->
    <!-- begin visual mesh of f0 ->
      <visual>
        <origin xyz="0 0 0" rpy="0 0 0"/>
        <geometry>
          <mesh filename="package://sandia_hand_description/meshes/f0.stl"/>
        </geometry>
        <material name="${side}_sandia_hand_skin_suntan">
          <color rgba="0.7 0.4 0.2 1.0"/>
        </material>
      </visual>
      <!-   end visual mesh of f0 -->
  </link>
  <link name="left_f0_1">
    <origin rpy="0 0 0" xyz="0 0 0"/>
    <inertial>
      <mass value="0.033"/>
      <!-- F2 -->
      <origin xyz="0 0 0"/>
      <!-- solid cylinder -->
      <inertia ixx="0.00000165" ixy="0" ixz="0" iyy="0.00001316975" iyz="0" izz="0.00001316975"/>
    </inertial>
    <!-- begin simple shape approximation of f1 -->
    <collision group="default">
      <origin rpy="0 1.57079632679 0" xyz="0.024 0 0"/>
      <geometry>
        <cylinder length="0.067" radius="0.01"/>
      </geometry>
    </collision>
    <!--   end simple shape approximation of f1 -->
    <!-- begin visual shape approximation of f1 -->
    <visual>
      <origin rpy="0 1.57079632679 0" xyz="0.024 0 0"/>
      <geometry>
        <cylinder length="0.067" radius="0.01"/>
      </geometry>
      <material name="left_sandia_hand_skin">
        <color rgba="0.835 0.655 0.345 1.0"/>
      </material>
    </visual>
    <!--   end visual shape approximation of f1 -->
    <!-- begin collision mesh of f1 ->
      <collision group="default">
        <origin xyz="0 0 0" rpy="0 0 0"/>
        <geometry>
          <mesh filename="package://sandia_hand_description/meshes/f1.stl"/>
        </geometry>
      </collision>
      <!-   end collision mesh of f1 -->
    <!-- begin visual mesh of f1 ->
      <visual>
        <origin xyz="0 0 0" rpy="0 0 0"/>
        <geometry>
          <mesh filename="package://sandia_hand_description/meshes/f1.stl"/>
        </geometry>
        <material name="${side}_sandia_hand_skin">
          <color rgba="0.835 0.655 0.345 1.0"/>
        </material>
      </visual>
      <!-   end visual mesh of f1 -->
  </link>
  <link name="left_f0_1_accel">
    <origin rpy="0 0 0" xyz="0 0 0"/>
    <inertial>
      <mass value="0.01"/>
      <origin xyz="0 0 0"/>
      <inertia ixx="0.000001" ixy="0" ixz="0" iyy="0.000001" iyz="0" izz="0.000001"/>
    </inertial>
  </link>
  <link name="left_f0_2">
    <origin rpy="0 0 0" xyz="0 0 0"/>
    <inertial>
      <mass value="0.033"/>
      <!-- F3 -->
      <origin xyz="0 0 0"/>
      <!-- solid cylinder -->
      <inertia ixx="0.0000013365" ixy="0" ixz="0" iyy="0.000009603" iyz="0" izz="0.000009603"/>
    </inertial>
    <!-- begin simple shape approximation of f2 -->
    <collision group="default">
      <origin rpy="0 1.57079632679 0" xyz="0.024 0 0"/>
      <geometry>
        <cylinder length="0.057" radius="0.009"/>
      </geometry>
    </collision>
    <collision group="other">
      <origin rpy="0 0 0" xyz="0.052 0 0"/>
      <geometry>
        <sphere radius="0.009"/>
      </geometry>
    </collision>
    <!--   end simple shape approximation of f2 -->
    <!-- begin visual shape approximation of f2 -->
    <visual>
      <origin rpy="0 1.57079632679 0" xyz="0.024 0 0"/>
      <geometry>
        <cylinder length="0.057" radius="0.009"/>
      </geometry>
      <material name="left_sandia_hand_skin_suntan">
        <color rgba="0.8 0.6 0.3 1.0"/>
      </material>
    </visual>
    <visual>
      <origin rpy="0 0 0" xyz="0.052 0 0"/>
      <geometry>
        <sphere radius="0.009"/>
      </geometry>
      <material name="left_sandia_hand_skin_suntan">
        <color rgba="0.8 0.6 0.3 1.0"/>
      </material>
    </visual>
    <!-- begin collision mesh of f2    ->
      <collision group="default">
        <origin xyz="0 0 0" rpy="0 0 0"/>
        <geometry>
          <mesh filename="package://sandia_hand_description/meshes/f2.stl"/>
        </geometry>
      </collision>
      <!-   end collision mesh of f2 -->
    <!-- begin visual mesh of f2    ->
      <visual>
        <origin xyz="0 0 0" rpy="0 0 0"/>
        <geometry>
          <mesh filename="package://sandia_hand_description/meshes/f2.stl"/>
        </geometry>
        <material name="${side}_sandia_hand_skin_suntan">
          <color rgba="0.8 0.6 0.3 1.0"/>
        </material>
      </visual>
      <!-   end visual mesh of f2 -->
  </link>
  <link name="left_f0_2_accel">
    <origin rpy="0 0 0" xyz="0 0 0"/>
    <inertial>
      <mass value="0.01"/>
      <origin xyz="0 0 0"/>
      <inertia ixx="0.000001" ixy="0" ixz="0" iyy="0.000001" iyz="0" izz="0.000001"/>
    </inertial>
  </link>
  <joint name="left_f0_base" type="fixed">
    <parent link="left_palm"/>
    <child link="left_f0_base"/>
    <origin rpy="0 0 -0.3" xyz="0.14 0.0 0"/>
  </joint>
  <joint name="left_f0_j0" type="revolute">
    <axis xyz="0 0 -1"/>
    <parent link="left_f0_base"/>
    <child link="left_f0_0"/>
    <limit effort="11" lower="-1.57079632679" upper="1.57079632679" velocity="-1"/>
    <safety_controller k_position="1000.0" k_velocity="1000.0" soft_lower_limit="-11.57079" soft_upper_limit="11.57079"/>
    <dynamics damping="1.0"/>
    <origin rpy="0 0 0" xyz="0 0 0"/>
  </joint>
  <joint name="left_f0_j1" type="revolute">
    <axis xyz="0 0 1"/>
    <parent link="left_f0_0"/>
    <child link="left_f0_1"/>
    <limit effort="28" lower="-1.57079632679" upper="1.57079632679" velocity="-1"/>
    <safety_controller k_position="1000.0" k_velocity="1000.0" soft_lower_limit="-11.57079" soft_upper_limit="11.57079"/>
    <dynamics damping="1.0"/>
    <origin rpy="1.57079632679 0 0" xyz="0.028 0 0"/>
  </joint>
  <joint name="left_f0_j2" type="revolute">
    <axis xyz="0 0 1"/>
    <parent link="left_f0_1"/>
    <child link="left_f0_2"/>
    <origin rpy="0 0 0" xyz="0.05 0 0"/>
    <safety_controller k_position="1000.0" k_velocity="1000.0" soft_lower_limit="-11.57079" soft_upper_limit="11.57079"/>
    <dynamics damping="1.0"/>
    <limit effort="28" lower="-1.57079632679" upper="1.57079632679" velocity="-1"/>
  </joint>
  <joint name="left_f0_fixed_accel" type="fixed">
    <parent link="left_f0_base"/>
    <child link="left_f0_fixed_accel"/>
    <origin rpy="0 0 0" xyz="-0.05 0 0"/>
  </joint>
  <joint name="left_f0_1_accel" type="fixed">
    <parent link="left_f0_1"/>
    <child link="left_f0_1_accel"/>
    <origin rpy="-1.57079632679 0 0" xyz="0.03 0 0"/>
  </joint>
  <joint name="left_f0_2_accel" type="fixed">
    <parent link="left_f0_2"/>
    <child link="left_f0_2_accel"/>
    <origin rpy="-1.57079632679 0 0" xyz="0.04 0 0"/>
  </joint>
  <transmission name="left_f0_j0" type="pr2_mechanism_model/SimpleTransmission">
    <joint name="left_f0_j0"/>
    <actuator name="left_f0_j0_motor"/>
    <mechanicalReduction>1</mechanicalReduction>
  </transmission>
  <transmission name="left_f0_j1" type="pr2_mechanism_model/SimpleTransmission">
    <joint name="left_f0_j1"/>
    <actuator name="left_f0_j1_motor"/>
    <mechanicalReduction>1</mechanicalReduction>
  </transmission>
  <transmission name="left_f0_j2" type="pr2_mechanism_model/SimpleTransmission">
    <joint name="left_f0_j2"/>
    <actuator name="left_f0_j2_motor"/>
    <mechanicalReduction>1</mechanicalReduction>
  </transmission>
  <gazebo reference="left_f0_base">
    <mu1>1.1</mu1>
    <mu2>1.1</mu2>
    <kp>1000000.0</kp>
    <kd>10.0</kd>
    <maxVel>0.1</maxVel>
    <minDepth>0.00</minDepth>
    <maxContacts>1</maxContacts>
    <material>Gazebo/FlatBlack</material>
  </gazebo>
  <gazebo reference="left_f0_0">
    <mu1>1.1</mu1>
    <mu2>1.1</mu2>
    <kp>1000000.0</kp>
    <kd>10.0</kd>
    <maxVel>0.1</maxVel>
    <minDepth>0.00</minDepth>
    <maxContacts>1</maxContacts>
    <material>Gazebo/FlatBlack</material>
  </gazebo>
  <gazebo reference="left_f0_1">
    <mu1>1.1</mu1>
    <mu2>1.1</mu2>
    <kp>1000000.0</kp>
    <kd>10.0</kd>
    <maxVel>0.1</maxVel>
    <minDepth>0.00</minDepth>
    <maxContacts>1</maxContacts>
    <material>Gazebo/FlatBlack</material>
  </gazebo>
  <gazebo reference="left_f0_2">
    <mu1>1.1</mu1>
    <mu2>1.1</mu2>
    <kp>1000000.0</kp>
    <kd>10.0</kd>
    <maxVel>0.1</maxVel>
    <minDepth>0.00</minDepth>
    <maxContacts>1</maxContacts>
    <material>Gazebo/FlatBlack</material>
  </gazebo>
  <gazebo reference="left_f0_j0">
    <cfmDamping>1</cfmDamping>
  </gazebo>
  <gazebo reference="left_f0_j1">
    <cfmDamping>1</cfmDamping>
  </gazebo>
  <gazebo reference="left_f0_j2">
    <cfmDamping>1</cfmDamping>
  </gazebo>
  <link name="left_f1_base">
    <origin rpy="0 0 0" xyz="0 0 0"/>
    <inertial>
      <!-- total mass is 2.303 kg, palm is about 1.303 kg, distribute the rest into _base -->
      <mass value="0.250"/>
      <!-- (2.303 - 1.303) / 4 -->
      <origin xyz="0 0 0"/>
      <!-- model as sphere with radius of 1cm -->
      <inertia ixx="0.00001" ixy="0" ixz="0" iyy="0.00001" iyz="0" izz="0.00001"/>
    </inertial>
  </link>
  <link name="left_f1_fixed_accel">
    <origin rpy="0 0 0" xyz="0 0 0"/>
    <inertial>
      <mass value="0.01"/>
      <origin xyz="0 0 0"/>
      <inertia ixx="0.000001" ixy="0" ixz="0" iyy="0.000001" iyz="0" izz="0.000001"/>
    </inertial>
  </link>
  <link name="left_f1_0">
    <origin rpy="0 0 0" xyz="0 0 0"/>
    <inertial>
      <mass value="0.106"/>
      <!-- F1 -->
      <origin xyz="0 0 0"/>
      <!-- solid cylinder -->
      <inertia ixx="0.000011925" ixy="0" ixz="0" iyy="0.00011505" iyz="0" izz="0.00011505"/>
    </inertial>
    <!-- begin simple shape approximation of f0 -->
    <collision group="default">
      <origin rpy="0 0 0" xyz="0 0 0.003"/>
      <geometry>
        <cylinder length="0.023" radius="0.015"/>
      </geometry>
    </collision>
    <collision group="other">
      <origin rpy="1.57079632679 0 0" xyz="0.011 0 0.003"/>
      <geometry>
        <cylinder length="0.023" radius="0.01"/>
      </geometry>
    </collision>
    <!--   end simple shape approximation of f0 -->
    <!-- begin visual shape approximation of f0 -->
    <visual>
      <origin rpy="0 0 0" xyz="0 0 0.003"/>
      <geometry>
        <cylinder length="0.023" radius="0.015"/>
      </geometry>
      <material name="left_sandia_hand_skin_suntan">
        <color rgba="0.7 0.4 0.2 1.0"/>
      </material>
    </visual>
    <visual>
      <origin rpy="1.57079632679 0 0" xyz="0.011 0 0.003"/>
      <geometry>
        <cylinder length="0.023" radius="0.01"/>
      </geometry>
      <material name="left_sandia_hand_skin_suntan">
        <color rgba="0.7 0.4 0.2 1.0"/>
      </material>
    </visual>
    <!--   end visual shape approximation of f0 -->
    <!-- begin collision mesh of f0 ->
      <collision group="default">
        <origin xyz="0 0 0" rpy="0 0 0"/>
        <geometry>
          <mesh filename="package://sandia_hand_description/meshes/f0.stl"/>
        </geometry>
      </collision>
      <!-   end collision mesh of f0 -->
    <!-- begin visual mesh of f0 ->
      <visual>
        <origin xyz="0 0 0" rpy="0 0 0"/>
        <geometry>
          <mesh filename="package://sandia_hand_description/meshes/f0.stl"/>
        </geometry>
        <material name="${side}_sandia_hand_skin_suntan">
          <color rgba="0.7 0.4 0.2 1.0"/>
        </material>
      </visual>
      <!-   end visual mesh of f0 -->
  </link>
  <link name="left_f1_1">
    <origin rpy="0 0 0" xyz="0 0 0"/>
    <inertial>
      <mass value="0.033"/>
      <!-- F2 -->
      <origin xyz="0 0 0"/>
      <!-- solid cylinder -->
      <inertia ixx="0.00000165" ixy="0" ixz="0" iyy="0.00001316975" iyz="0" izz="0.00001316975"/>
    </inertial>
    <!-- begin simple shape approximation of f1 -->
    <collision group="default">
      <origin rpy="0 1.57079632679 0" xyz="0.024 0 0"/>
      <geometry>
        <cylinder length="0.067" radius="0.01"/>
      </geometry>
    </collision>
    <!--   end simple shape approximation of f1 -->
    <!-- begin visual shape approximation of f1 -->
    <visual>
      <origin rpy="0 1.57079632679 0" xyz="0.024 0 0"/>
      <geometry>
        <cylinder length="0.067" radius="0.01"/>
      </geometry>
      <material name="left_sandia_hand_skin">
        <color rgba="0.835 0.655 0.345 1.0"/>
      </material>
    </visual>
    <!--   end visual shape approximation of f1 -->
    <!-- begin collision mesh of f1 ->
      <collision group="default">
        <origin xyz="0 0 0" rpy="0 0 0"/>
        <geometry>
          <mesh filename="package://sandia_hand_description/meshes/f1.stl"/>
        </geometry>
      </collision>
      <!-   end collision mesh of f1 -->
    <!-- begin visual mesh of f1 ->
      <visual>
        <origin xyz="0 0 0" rpy="0 0 0"/>
        <geometry>
          <mesh filename="package://sandia_hand_description/meshes/f1.stl"/>
        </geometry>
        <material name="${side}_sandia_hand_skin">
          <color rgba="0.835 0.655 0.345 1.0"/>
        </material>
      </visual>
      <!-   end visual mesh of f1 -->
  </link>
  <link name="left_f1_1_accel">
    <origin rpy="0 0 0" xyz="0 0 0"/>
    <inertial>
      <mass value="0.01"/>
      <origin xyz="0 0 0"/>
      <inertia ixx="0.000001" ixy="0" ixz="0" iyy="0.000001" iyz="0" izz="0.000001"/>
    </inertial>
  </link>
  <link name="left_f1_2">
    <origin rpy="0 0 0" xyz="0 0 0"/>
    <inertial>
      <mass value="0.033"/>
      <!-- F3 -->
      <origin xyz="0 0 0"/>
      <!-- solid cylinder -->
      <inertia ixx="0.0000013365" ixy="0" ixz="0" iyy="0.000009603" iyz="0" izz="0.000009603"/>
    </inertial>
    <!-- begin simple shape approximation of f2 -->
    <collision group="default">
      <origin rpy="0 1.57079632679 0" xyz="0.024 0 0"/>
      <geometry>
        <cylinder length="0.057" radius="0.009"/>
      </geometry>
    </collision>
    <collision group="other">
      <origin rpy="0 0 0" xyz="0.052 0 0"/>
      <geometry>
        <sphere radius="0.009"/>
      </geometry>
    </collision>
    <!--   end simple shape approximation of f2 -->
    <!-- begin visual shape approximation of f2 -->
    <visual>
      <origin rpy="0 1.57079632679 0" xyz="0.024 0 0"/>
      <geometry>
        <cylinder length="0.057" radius="0.009"/>
      </geometry>
      <material name="left_sandia_hand_skin_suntan">
        <color rgba="0.8 0.6 0.3 1.0"/>
      </material>
    </visual>
    <visual>
      <origin rpy="0 0 0" xyz="0.052 0 0"/>
      <geometry>
        <sphere radius="0.009"/>
      </geometry>
      <material name="left_sandia_hand_skin_suntan">
        <color rgba="0.8 0.6 0.3 1.0"/>
      </material>
    </visual>
    <!-- begin collision mesh of f2    ->
      <collision group="default">
        <origin xyz="0 0 0" rpy="0 0 0"/>
        <geometry>
          <mesh filename="package://sandia_hand_description/meshes/f2.stl"/>
        </geometry>
      </collision>
      <!-   end collision mesh of f2 -->
    <!-- begin visual mesh of f2    ->
      <visual>
        <origin xyz="0 0 0" rpy="0 0 0"/>
        <geometry>
          <mesh filename="package://sandia_hand_description/meshes/f2.stl"/>
        </geometry>
        <material name="${side}_sandia_hand_skin_suntan">
          <color rgba="0.8 0.6 0.3 1.0"/>
        </material>
      </visual>
      <!-   end visual mesh of f2 -->
  </link>
  <link name="left_f1_2_accel">
    <origin rpy="0 0 0" xyz="0 0 0"/>
    <inertial>
      <mass value="0.01"/>
      <origin xyz="0 0 0"/>
      <inertia ixx="0.000001" ixy="0" ixz="0" iyy="0.000001" iyz="0" izz="0.000001"/>
    </inertial>
  </link>
  <joint name="left_f1_base" type="fixed">
    <parent link="left_palm"/>
    <child link="left_f1_base"/>
    <origin rpy="0 0 -0.3" xyz="0.115 -0.03122 0"/>
  </joint>
  <joint name="left_f1_j0" type="revolute">
    <axis xyz="0 0 -1"/>
    <parent link="left_f1_base"/>
    <child link="left_f1_0"/>
    <limit effort="11" lower="-1.57079632679" upper="1.57079632679" velocity="-1"/>
    <safety_controller k_position="1000.0" k_velocity="1000.0" soft_lower_limit="-11.57079" soft_upper_limit="11.57079"/>
    <dynamics damping="1.0"/>
    <origin rpy="0 0 0" xyz="0 0 0"/>
  </joint>
  <joint name="left_f1_j1" type="revolute">
    <axis xyz="0 0 1"/>
    <parent link="left_f1_0"/>
    <child link="left_f1_1"/>
    <limit effort="28" lower="-1.57079632679" upper="1.57079632679" velocity="-1"/>
    <safety_controller k_position="1000.0" k_velocity="1000.0" soft_lower_limit="-11.57079" soft_upper_limit="11.57079"/>
    <dynamics damping="1.0"/>
    <origin rpy="1.57079632679 0 0" xyz="0.028 0 0"/>
  </joint>
  <joint name="left_f1_j2" type="revolute">
    <axis xyz="0 0 1"/>
    <parent link="left_f1_1"/>
    <child link="left_f1_2"/>
    <origin rpy="0 0 0" xyz="0.05 0 0"/>
    <safety_controller k_position="1000.0" k_velocity="1000.0" soft_lower_limit="-11.57079" soft_upper_limit="11.57079"/>
    <dynamics damping="1.0"/>
    <limit effort="28" lower="-1.57079632679" upper="1.57079632679" velocity="-1"/>
  </joint>
  <joint name="left_f1_fixed_accel" type="fixed">
    <parent link="left_f1_base"/>
    <child link="left_f1_fixed_accel"/>
    <origin rpy="0 0 0" xyz="-0.05 0 0"/>
  </joint>
  <joint name="left_f1_1_accel" type="fixed">
    <parent link="left_f1_1"/>
    <child link="left_f1_1_accel"/>
    <origin rpy="-1.57079632679 0 0" xyz="0.03 0 0"/>
  </joint>
  <joint name="left_f1_2_accel" type="fixed">
    <parent link="left_f1_2"/>
    <child link="left_f1_2_accel"/>
    <origin rpy="-1.57079632679 0 0" xyz="0.04 0 0"/>
  </joint>
  <transmission name="left_f1_j0" type="pr2_mechanism_model/SimpleTransmission">
    <joint name="left_f1_j0"/>
    <actuator name="left_f1_j0_motor"/>
    <mechanicalReduction>1</mechanicalReduction>
  </transmission>
  <transmission name="left_f1_j1" type="pr2_mechanism_model/SimpleTransmission">
    <joint name="left_f1_j1"/>
    <actuator name="left_f1_j1_motor"/>
    <mechanicalReduction>1</mechanicalReduction>
  </transmission>
  <transmission name="left_f1_j2" type="pr2_mechanism_model/SimpleTransmission">
    <joint name="left_f1_j2"/>
    <actuator name="left_f1_j2_motor"/>
    <mechanicalReduction>1</mechanicalReduction>
  </transmission>
  <gazebo reference="left_f1_base">
    <mu1>1.1</mu1>
    <mu2>1.1</mu2>
    <kp>1000000.0</kp>
    <kd>10.0</kd>
    <maxVel>0.1</maxVel>
    <minDepth>0.00</minDepth>
    <maxContacts>1</maxContacts>
    <material>Gazebo/FlatBlack</material>
  </gazebo>
  <gazebo reference="left_f1_0">
    <mu1>1.1</mu1>
    <mu2>1.1</mu2>
    <kp>1000000.0</kp>
    <kd>10.0</kd>
    <maxVel>0.1</maxVel>
    <minDepth>0.00</minDepth>
    <maxContacts>1</maxContacts>
    <material>Gazebo/FlatBlack</material>
  </gazebo>
  <gazebo reference="left_f1_1">
    <mu1>1.1</mu1>
    <mu2>1.1</mu2>
    <kp>1000000.0</kp>
    <kd>10.0</kd>
    <maxVel>0.1</maxVel>
    <minDepth>0.00</minDepth>
    <maxContacts>1</maxContacts>
    <material>Gazebo/FlatBlack</material>
  </gazebo>
  <gazebo reference="left_f1_2">
    <mu1>1.1</mu1>
    <mu2>1.1</mu2>
    <kp>1000000.0</kp>
    <kd>10.0</kd>
    <maxVel>0.1</maxVel>
    <minDepth>0.00</minDepth>
    <maxContacts>1</maxContacts>
    <material>Gazebo/FlatBlack</material>
  </gazebo>
  <gazebo reference="left_f1_j0">
    <cfmDamping>1</cfmDamping>
  </gazebo>
  <gazebo reference="left_f1_j1">
    <cfmDamping>1</cfmDamping>
  </gazebo>
  <gazebo reference="left_f1_j2">
    <cfmDamping>1</cfmDamping>
  </gazebo>
  <link name="left_f2_base">
    <origin rpy="0 0 0" xyz="0 0 0"/>
    <inertial>
      <!-- total mass is 2.303 kg, palm is about 1.303 kg, distribute the rest into _base -->
      <mass value="0.250"/>
      <!-- (2.303 - 1.303) / 4 -->
      <origin xyz="0 0 0"/>
      <!-- model as sphere with radius of 1cm -->
      <inertia ixx="0.00001" ixy="0" ixz="0" iyy="0.00001" iyz="0" izz="0.00001"/>
    </inertial>
  </link>
  <link name="left_f2_fixed_accel">
    <origin rpy="0 0 0" xyz="0 0 0"/>
    <inertial>
      <mass value="0.01"/>
      <origin xyz="0 0 0"/>
      <inertia ixx="0.000001" ixy="0" ixz="0" iyy="0.000001" iyz="0" izz="0.000001"/>
    </inertial>
  </link>
  <link name="left_f2_0">
    <origin rpy="0 0 0" xyz="0 0 0"/>
    <inertial>
      <mass value="0.106"/>
      <!-- F1 -->
      <origin xyz="0 0 0"/>
      <!-- solid cylinder -->
      <inertia ixx="0.000011925" ixy="0" ixz="0" iyy="0.00011505" iyz="0" izz="0.00011505"/>
    </inertial>
    <!-- begin simple shape approximation of f0 -->
    <collision group="default">
      <origin rpy="0 0 0" xyz="0 0 0.003"/>
      <geometry>
        <cylinder length="0.023" radius="0.015"/>
      </geometry>
    </collision>
    <collision group="other">
      <origin rpy="1.57079632679 0 0" xyz="0.011 0 0.003"/>
      <geometry>
        <cylinder length="0.023" radius="0.01"/>
      </geometry>
    </collision>
    <!--   end simple shape approximation of f0 -->
    <!-- begin visual shape approximation of f0 -->
    <visual>
      <origin rpy="0 0 0" xyz="0 0 0.003"/>
      <geometry>
        <cylinder length="0.023" radius="0.015"/>
      </geometry>
      <material name="left_sandia_hand_skin_suntan">
        <color rgba="0.7 0.4 0.2 1.0"/>
      </material>
    </visual>
    <visual>
      <origin rpy="1.57079632679 0 0" xyz="0.011 0 0.003"/>
      <geometry>
        <cylinder length="0.023" radius="0.01"/>
      </geometry>
      <material name="left_sandia_hand_skin_suntan">
        <color rgba="0.7 0.4 0.2 1.0"/>
      </material>
    </visual>
    <!--   end visual shape approximation of f0 -->
    <!-- begin collision mesh of f0 ->
      <collision group="default">
        <origin xyz="0 0 0" rpy="0 0 0"/>
        <geometry>
          <mesh filename="package://sandia_hand_description/meshes/f0.stl"/>
        </geometry>
      </collision>
      <!-   end collision mesh of f0 -->
    <!-- begin visual mesh of f0 ->
      <visual>
        <origin xyz="0 0 0" rpy="0 0 0"/>
        <geometry>
          <mesh filename="package://sandia_hand_description/meshes/f0.stl"/>
        </geometry>
        <material name="${side}_sandia_hand_skin_suntan">
          <color rgba="0.7 0.4 0.2 1.0"/>
        </material>
      </visual>
      <!-   end visual mesh of f0 -->
  </link>
  <link name="left_f2_1">
    <origin rpy="0 0 0" xyz="0 0 0"/>
    <inertial>
      <mass value="0.033"/>
      <!-- F2 -->
      <origin xyz="0 0 0"/>
      <!-- solid cylinder -->
      <inertia ixx="0.00000165" ixy="0" ixz="0" iyy="0.00001316975" iyz="0" izz="0.00001316975"/>
    </inertial>
    <!-- begin simple shape approximation of f1 -->
    <collision group="default">
      <origin rpy="0 1.57079632679 0" xyz="0.024 0 0"/>
      <geometry>
        <cylinder length="0.067" radius="0.01"/>
      </geometry>
    </collision>
    <!--   end simple shape approximation of f1 -->
    <!-- begin visual shape approximation of f1 -->
    <visual>
      <origin rpy="0 1.57079632679 0" xyz="0.024 0 0"/>
      <geometry>
        <cylinder length="0.067" radius="0.01"/>
      </geometry>
      <material name="left_sandia_hand_skin">
        <color rgba="0.835 0.655 0.345 1.0"/>
      </material>
    </visual>
    <!--   end visual shape approximation of f1 -->
    <!-- begin collision mesh of f1 ->
      <collision group="default">
        <origin xyz="0 0 0" rpy="0 0 0"/>
        <geometry>
          <mesh filename="package://sandia_hand_description/meshes/f1.stl"/>
        </geometry>
      </collision>
      <!-   end collision mesh of f1 -->
    <!-- begin visual mesh of f1 ->
      <visual>
        <origin xyz="0 0 0" rpy="0 0 0"/>
        <geometry>
          <mesh filename="package://sandia_hand_description/meshes/f1.stl"/>
        </geometry>
        <material name="${side}_sandia_hand_skin">
          <color rgba="0.835 0.655 0.345 1.0"/>
        </material>
      </visual>
      <!-   end visual mesh of f1 -->
  </link>
  <link name="left_f2_1_accel">
    <origin rpy="0 0 0" xyz="0 0 0"/>
    <inertial>
      <mass value="0.01"/>
      <origin xyz="0 0 0"/>
      <inertia ixx="0.000001" ixy="0" ixz="0" iyy="0.000001" iyz="0" izz="0.000001"/>
    </inertial>
  </link>
  <link name="left_f2_2">
    <origin rpy="0 0 0" xyz="0 0 0"/>
    <inertial>
      <mass value="0.033"/>
      <!-- F3 -->
      <origin xyz="0 0 0"/>
      <!-- solid cylinder -->
      <inertia ixx="0.0000013365" ixy="0" ixz="0" iyy="0.000009603" iyz="0" izz="0.000009603"/>
    </inertial>
    <!-- begin simple shape approximation of f2 -->
    <collision group="default">
      <origin rpy="0 1.57079632679 0" xyz="0.024 0 0"/>
      <geometry>
        <cylinder length="0.057" radius="0.009"/>
      </geometry>
    </collision>
    <collision group="other">
      <origin rpy="0 0 0" xyz="0.052 0 0"/>
      <geometry>
        <sphere radius="0.009"/>
      </geometry>
    </collision>
    <!--   end simple shape approximation of f2 -->
    <!-- begin visual shape approximation of f2 -->
    <visual>
      <origin rpy="0 1.57079632679 0" xyz="0.024 0 0"/>
      <geometry>
        <cylinder length="0.057" radius="0.009"/>
      </geometry>
      <material name="left_sandia_hand_skin_suntan">
        <color rgba="0.8 0.6 0.3 1.0"/>
      </material>
    </visual>
    <visual>
      <origin rpy="0 0 0" xyz="0.052 0 0"/>
      <geometry>
        <sphere radius="0.009"/>
      </geometry>
      <material name="left_sandia_hand_skin_suntan">
        <color rgba="0.8 0.6 0.3 1.0"/>
      </material>
    </visual>
    <!-- begin collision mesh of f2    ->
      <collision group="default">
        <origin xyz="0 0 0" rpy="0 0 0"/>
        <geometry>
          <mesh filename="package://sandia_hand_description/meshes/f2.stl"/>
        </geometry>
      </collision>
      <!-   end collision mesh of f2 -->
    <!-- begin visual mesh of f2    ->
      <visual>
        <origin xyz="0 0 0" rpy="0 0 0"/>
        <geometry>
          <mesh filename="package://sandia_hand_description/meshes/f2.stl"/>
        </geometry>
        <material name="${side}_sandia_hand_skin_suntan">
          <color rgba="0.8 0.6 0.3 1.0"/>
        </material>
      </visual>
      <!-   end visual mesh of f2 -->
  </link>
  <link name="left_f2_2_accel">
    <origin rpy="0 0 0" xyz="0 0 0"/>
    <inertial>
      <mass value="0.01"/>
      <origin xyz="0 0 0"/>
      <inertia ixx="0.000001" ixy="0" ixz="0" iyy="0.000001" iyz="0" izz="0.000001"/>
    </inertial>
  </link>
  <joint name="left_f2_base" type="fixed">
    <parent link="left_palm"/>
    <child link="left_f2_base"/>
    <origin rpy="0 0 -0.3" xyz="0.09 -0.06245 0"/>
  </joint>
  <joint name="left_f2_j0" type="revolute">
    <axis xyz="0 0 -1"/>
    <parent link="left_f2_base"/>
    <child link="left_f2_0"/>
    <limit effort="11" lower="-1.57079632679" upper="1.57079632679" velocity="-1"/>
    <safety_controller k_position="1000.0" k_velocity="1000.0" soft_lower_limit="-11.57079" soft_upper_limit="11.57079"/>
    <dynamics damping="1.0"/>
    <origin rpy="0 0 0" xyz="0 0 0"/>
  </joint>
  <joint name="left_f2_j1" type="revolute">
    <axis xyz="0 0 1"/>
    <parent link="left_f2_0"/>
    <child link="left_f2_1"/>
    <limit effort="28" lower="-1.57079632679" upper="1.57079632679" velocity="-1"/>
    <safety_controller k_position="1000.0" k_velocity="1000.0" soft_lower_limit="-11.57079" soft_upper_limit="11.57079"/>
    <dynamics damping="1.0"/>
    <origin rpy="1.57079632679 0 0" xyz="0.028 0 0"/>
  </joint>
  <joint name="left_f2_j2" type="revolute">
    <axis xyz="0 0 1"/>
    <parent link="left_f2_1"/>
    <child link="left_f2_2"/>
    <origin rpy="0 0 0" xyz="0.05 0 0"/>
    <safety_controller k_position="1000.0" k_velocity="1000.0" soft_lower_limit="-11.57079" soft_upper_limit="11.57079"/>
    <dynamics damping="1.0"/>
    <limit effort="28" lower="-1.57079632679" upper="1.57079632679" velocity="-1"/>
  </joint>
  <joint name="left_f2_fixed_accel" type="fixed">
    <parent link="left_f2_base"/>
    <child link="left_f2_fixed_accel"/>
    <origin rpy="0 0 0" xyz="-0.05 0 0"/>
  </joint>
  <joint name="left_f2_1_accel" type="fixed">
    <parent link="left_f2_1"/>
    <child link="left_f2_1_accel"/>
    <origin rpy="-1.57079632679 0 0" xyz="0.03 0 0"/>
  </joint>
  <joint name="left_f2_2_accel" type="fixed">
    <parent link="left_f2_2"/>
    <child link="left_f2_2_accel"/>
    <origin rpy="-1.57079632679 0 0" xyz="0.04 0 0"/>
  </joint>
  <transmission name="left_f2_j0" type="pr2_mechanism_model/SimpleTransmission">
    <joint name="left_f2_j0"/>
    <actuator name="left_f2_j0_motor"/>
    <mechanicalReduction>1</mechanicalReduction>
  </transmission>
  <transmission name="left_f2_j1" type="pr2_mechanism_model/SimpleTransmission">
    <joint name="left_f2_j1"/>
    <actuator name="left_f2_j1_motor"/>
    <mechanicalReduction>1</mechanicalReduction>
  </transmission>
  <transmission name="left_f2_j2" type="pr2_mechanism_model/SimpleTransmission">
    <joint name="left_f2_j2"/>
    <actuator name="left_f2_j2_motor"/>
    <mechanicalReduction>1</mechanicalReduction>
  </transmission>
  <gazebo reference="left_f2_base">
    <mu1>1.1</mu1>
    <mu2>1.1</mu2>
    <kp>1000000.0</kp>
    <kd>10.0</kd>
    <maxVel>0.1</maxVel>
    <minDepth>0.00</minDepth>
    <maxContacts>1</maxContacts>
    <material>Gazebo/FlatBlack</material>
  </gazebo>
  <gazebo reference="left_f2_0">
    <mu1>1.1</mu1>
    <mu2>1.1</mu2>
    <kp>1000000.0</kp>
    <kd>10.0</kd>
    <maxVel>0.1</maxVel>
    <minDepth>0.00</minDepth>
    <maxContacts>1</maxContacts>
    <material>Gazebo/FlatBlack</material>
  </gazebo>
  <gazebo reference="left_f2_1">
    <mu1>1.1</mu1>
    <mu2>1.1</mu2>
    <kp>1000000.0</kp>
    <kd>10.0</kd>
    <maxVel>0.1</maxVel>
    <minDepth>0.00</minDepth>
    <maxContacts>1</maxContacts>
    <material>Gazebo/FlatBlack</material>
  </gazebo>
  <gazebo reference="left_f2_2">
    <mu1>1.1</mu1>
    <mu2>1.1</mu2>
    <kp>1000000.0</kp>
    <kd>10.0</kd>
    <maxVel>0.1</maxVel>
    <minDepth>0.00</minDepth>
    <maxContacts>1</maxContacts>
    <material>Gazebo/FlatBlack</material>
  </gazebo>
  <gazebo reference="left_f2_j0">
    <cfmDamping>1</cfmDamping>
  </gazebo>
  <gazebo reference="left_f2_j1">
    <cfmDamping>1</cfmDamping>
  </gazebo>
  <gazebo reference="left_f2_j2">
    <cfmDamping>1</cfmDamping>
  </gazebo>
  <link name="left_f3_base">
    <origin rpy="0 0 0" xyz="0 0 0"/>
    <inertial>
      <!-- total mass is 2.303 kg, palm is about 1.303 kg, distribute the rest into _base -->
      <mass value="0.250"/>
      <!-- (2.303 - 1.303) / 4 -->
      <origin xyz="0 0 0"/>
      <!-- model as sphere with radius of 1cm -->
      <inertia ixx="0.00001" ixy="0" ixz="0" iyy="0.00001" iyz="0" izz="0.00001"/>
    </inertial>
  </link>
  <link name="left_f3_fixed_accel">
    <origin rpy="0 0 0" xyz="0 0 0"/>
    <inertial>
      <mass value="0.01"/>
      <origin xyz="0 0 0"/>
      <inertia ixx="0.000001" ixy="0" ixz="0" iyy="0.000001" iyz="0" izz="0.000001"/>
    </inertial>
  </link>
  <link name="left_f3_0">
    <origin rpy="0 0 0" xyz="0 0 0"/>
    <inertial>
      <mass value="0.106"/>
      <!-- F1 -->
      <origin xyz="0 0 0"/>
      <!-- solid cylinder -->
      <inertia ixx="0.000011925" ixy="0" ixz="0" iyy="0.00011505" iyz="0" izz="0.00011505"/>
    </inertial>
    <!-- begin simple shape approximation of f0 -->
    <collision group="default">
      <origin rpy="0 0 0" xyz="0 0 0.003"/>
      <geometry>
        <cylinder length="0.023" radius="0.015"/>
      </geometry>
    </collision>
    <collision group="other">
      <origin rpy="1.57079632679 0 0" xyz="0.011 0 0.003"/>
      <geometry>
        <cylinder length="0.023" radius="0.01"/>
      </geometry>
    </collision>
    <!--   end simple shape approximation of f0 -->
    <!-- begin visual shape approximation of f0 -->
    <visual>
      <origin rpy="0 0 0" xyz="0 0 0.003"/>
      <geometry>
        <cylinder length="0.023" radius="0.015"/>
      </geometry>
      <material name="left_sandia_hand_skin_suntan">
        <color rgba="0.7 0.4 0.2 1.0"/>
      </material>
    </visual>
    <visual>
      <origin rpy="1.57079632679 0 0" xyz="0.011 0 0.003"/>
      <geometry>
        <cylinder length="0.023" radius="0.01"/>
      </geometry>
      <material name="left_sandia_hand_skin_suntan">
        <color rgba="0.7 0.4 0.2 1.0"/>
      </material>
    </visual>
    <!--   end visual shape approximation of f0 -->
    <!-- begin collision mesh of f0 ->
      <collision group="default">
        <origin xyz="0 0 0" rpy="0 0 0"/>
        <geometry>
          <mesh filename="package://sandia_hand_description/meshes/f0.stl"/>
        </geometry>
      </collision>
      <!-   end collision mesh of f0 -->
    <!-- begin visual mesh of f0 ->
      <visual>
        <origin xyz="0 0 0" rpy="0 0 0"/>
        <geometry>
          <mesh filename="package://sandia_hand_description/meshes/f0.stl"/>
        </geometry>
        <material name="${side}_sandia_hand_skin_suntan">
          <color rgba="0.7 0.4 0.2 1.0"/>
        </material>
      </visual>
      <!-   end visual mesh of f0 -->
  </link>
  <link name="left_f3_1">
    <origin rpy="0 0 0" xyz="0 0 0"/>
    <inertial>
      <mass value="0.033"/>
      <!-- F2 -->
      <origin xyz="0 0 0"/>
      <!-- solid cylinder -->
      <inertia ixx="0.00000165" ixy="0" ixz="0" iyy="0.00001316975" iyz="0" izz="0.00001316975"/>
    </inertial>
    <!-- begin simple shape approximation of f1 -->
    <collision group="default">
      <origin rpy="0 1.57079632679 0" xyz="0.024 0 0"/>
      <geometry>
        <cylinder length="0.067" radius="0.01"/>
      </geometry>
    </collision>
    <!--   end simple shape approximation of f1 -->
    <!-- begin visual shape approximation of f1 -->
    <visual>
      <origin rpy="0 1.57079632679 0" xyz="0.024 0 0"/>
      <geometry>
        <cylinder length="0.067" radius="0.01"/>
      </geometry>
      <material name="left_sandia_hand_skin">
        <color rgba="0.835 0.655 0.345 1.0"/>
      </material>
    </visual>
    <!--   end visual shape approximation of f1 -->
    <!-- begin collision mesh of f1 ->
      <collision group="default">
        <origin xyz="0 0 0" rpy="0 0 0"/>
        <geometry>
          <mesh filename="package://sandia_hand_description/meshes/f1.stl"/>
        </geometry>
      </collision>
      <!-   end collision mesh of f1 -->
    <!-- begin visual mesh of f1 ->
      <visual>
        <origin xyz="0 0 0" rpy="0 0 0"/>
        <geometry>
          <mesh filename="package://sandia_hand_description/meshes/f1.stl"/>
        </geometry>
        <material name="${side}_sandia_hand_skin">
          <color rgba="0.835 0.655 0.345 1.0"/>
        </material>
      </visual>
      <!-   end visual mesh of f1 -->
  </link>
  <link name="left_f3_1_accel">
    <origin rpy="0 0 0" xyz="0 0 0"/>
    <inertial>
      <mass value="0.01"/>
      <origin xyz="0 0 0"/>
      <inertia ixx="0.000001" ixy="0" ixz="0" iyy="0.000001" iyz="0" izz="0.000001"/>
    </inertial>
  </link>
  <link name="left_f3_2">
    <origin rpy="0 0 0" xyz="0 0 0"/>
    <inertial>
      <mass value="0.033"/>
      <!-- F3 -->
      <origin xyz="0 0 0"/>
      <!-- solid cylinder -->
      <inertia ixx="0.0000013365" ixy="0" ixz="0" iyy="0.000009603" iyz="0" izz="0.000009603"/>
    </inertial>
    <!-- begin simple shape approximation of f2 -->
    <collision group="default">
      <origin rpy="0 1.57079632679 0" xyz="0.024 0 0"/>
      <geometry>
        <cylinder length="0.057" radius="0.009"/>
      </geometry>
    </collision>
    <collision group="other">
      <origin rpy="0 0 0" xyz="0.052 0 0"/>
      <geometry>
        <sphere radius="0.009"/>
      </geometry>
    </collision>
    <!--   end simple shape approximation of f2 -->
    <!-- begin visual shape approximation of f2 -->
    <visual>
      <origin rpy="0 1.57079632679 0" xyz="0.024 0 0"/>
      <geometry>
        <cylinder length="0.057" radius="0.009"/>
      </geometry>
      <material name="left_sandia_hand_skin_suntan">
        <color rgba="0.8 0.6 0.3 1.0"/>
      </material>
    </visual>
    <visual>
      <origin rpy="0 0 0" xyz="0.052 0 0"/>
      <geometry>
        <sphere radius="0.009"/>
      </geometry>
      <material name="left_sandia_hand_skin_suntan">
        <color rgba="0.8 0.6 0.3 1.0"/>
      </material>
    </visual>
    <!-- begin collision mesh of f2    ->
      <collision group="default">
        <origin xyz="0 0 0" rpy="0 0 0"/>
        <geometry>
          <mesh filename="package://sandia_hand_description/meshes/f2.stl"/>
        </geometry>
      </collision>
      <!-   end collision mesh of f2 -->
    <!-- begin visual mesh of f2    ->
      <visual>
        <origin xyz="0 0 0" rpy="0 0 0"/>
        <geometry>
          <mesh filename="package://sandia_hand_description/meshes/f2.stl"/>
        </geometry>
        <material name="${side}_sandia_hand_skin_suntan">
          <color rgba="0.8 0.6 0.3 1.0"/>
        </material>
      </visual>
      <!-   end visual mesh of f2 -->
  </link>
  <link name="left_f3_2_accel">
    <origin rpy="0 0 0" xyz="0 0 0"/>
    <inertial>
      <mass value="0.01"/>
      <origin xyz="0 0 0"/>
      <inertia ixx="0.000001" ixy="0" ixz="0" iyy="0.000001" iyz="0" izz="0.000001"/>
    </inertial>
  </link>
  <joint name="left_f3_base" type="fixed">
    <parent link="left_palm"/>
    <child link="left_f3_base"/>
    <origin rpy="0 -1.57079632679 2.3562" xyz="0.03995 0.04383 0.014"/>
  </joint>
  <joint name="left_f3_j0" type="revolute">
    <axis xyz="0 0 -1"/>
    <parent link="left_f3_base"/>
    <child link="left_f3_0"/>
    <limit effort="11" lower="-1.57079632679" upper="1.57079632679" velocity="-1"/>
    <safety_controller k_position="1000.0" k_velocity="1000.0" soft_lower_limit="-11.57079" soft_upper_limit="11.57079"/>
    <dynamics damping="1.0"/>
    <origin rpy="0 0 0" xyz="0 0 0"/>
  </joint>
  <joint name="left_f3_j1" type="revolute">
    <axis xyz="0 0 1"/>
    <parent link="left_f3_0"/>
    <child link="left_f3_1"/>
    <limit effort="28" lower="-1.57079632679" upper="1.57079632679" velocity="-1"/>
    <safety_controller k_position="1000.0" k_velocity="1000.0" soft_lower_limit="-11.57079" soft_upper_limit="11.57079"/>
    <dynamics damping="1.0"/>
    <origin rpy="1.57079632679 0 0" xyz="0.028 0 0"/>
  </joint>
  <joint name="left_f3_j2" type="revolute">
    <axis xyz="0 0 1"/>
    <parent link="left_f3_1"/>
    <child link="left_f3_2"/>
    <origin rpy="0 0 0" xyz="0.05 0 0"/>
    <safety_controller k_position="1000.0" k_velocity="1000.0" soft_lower_limit="-11.57079" soft_upper_limit="11.57079"/>
    <dynamics damping="1.0"/>
    <limit effort="28" lower="-1.57079632679" upper="1.57079632679" velocity="-1"/>
  </joint>
  <joint name="left_f3_fixed_accel" type="fixed">
    <parent link="left_f3_base"/>
    <child link="left_f3_fixed_accel"/>
    <origin rpy="0 0 0" xyz="-0.05 0 0"/>
  </joint>
  <joint name="left_f3_1_accel" type="fixed">
    <parent link="left_f3_1"/>
    <child link="left_f3_1_accel"/>
    <origin rpy="-1.57079632679 0 0" xyz="0.03 0 0"/>
  </joint>
  <joint name="left_f3_2_accel" type="fixed">
    <parent link="left_f3_2"/>
    <child link="left_f3_2_accel"/>
    <origin rpy="-1.57079632679 0 0" xyz="0.04 0 0"/>
  </joint>
  <transmission name="left_f3_j0" type="pr2_mechanism_model/SimpleTransmission">
    <joint name="left_f3_j0"/>
    <actuator name="left_f3_j0_motor"/>
    <mechanicalReduction>1</mechanicalReduction>
  </transmission>
  <transmission name="left_f3_j1" type="pr2_mechanism_model/SimpleTransmission">
    <joint name="left_f3_j1"/>
    <actuator name="left_f3_j1_motor"/>
    <mechanicalReduction>1</mechanicalReduction>
  </transmission>
  <transmission name="left_f3_j2" type="pr2_mechanism_model/SimpleTransmission">
    <joint name="left_f3_j2"/>
    <actuator name="left_f3_j2_motor"/>
    <mechanicalReduction>1</mechanicalReduction>
  </transmission>
  <gazebo reference="left_f3_base">
    <mu1>1.1</mu1>
    <mu2>1.1</mu2>
    <kp>1000000.0</kp>
    <kd>10.0</kd>
    <maxVel>0.1</maxVel>
    <minDepth>0.00</minDepth>
    <maxContacts>1</maxContacts>
    <material>Gazebo/FlatBlack</material>
  </gazebo>
  <gazebo reference="left_f3_0">
    <mu1>1.1</mu1>
    <mu2>1.1</mu2>
    <kp>1000000.0</kp>
    <kd>10.0</kd>
    <maxVel>0.1</maxVel>
    <minDepth>0.00</minDepth>
    <maxContacts>1</maxContacts>
    <material>Gazebo/FlatBlack</material>
  </gazebo>
  <gazebo reference="left_f3_1">
    <mu1>1.1</mu1>
    <mu2>1.1</mu2>
    <kp>1000000.0</kp>
    <kd>10.0</kd>
    <maxVel>0.1</maxVel>
    <minDepth>0.00</minDepth>
    <maxContacts>1</maxContacts>
    <material>Gazebo/FlatBlack</material>
  </gazebo>
  <gazebo reference="left_f3_2">
    <mu1>1.1</mu1>
    <mu2>1.1</mu2>
    <kp>1000000.0</kp>
    <kd>10.0</kd>
    <maxVel>0.1</maxVel>
    <minDepth>0.00</minDepth>
    <maxContacts>1</maxContacts>
    <material>Gazebo/FlatBlack</material>
  </gazebo>
  <gazebo reference="left_f3_j0">
    <cfmDamping>1</cfmDamping>
  </gazebo>
  <gazebo reference="left_f3_j1">
    <cfmDamping>1</cfmDamping>
  </gazebo>
  <gazebo reference="left_f3_j2">
    <cfmDamping>1</cfmDamping>
  </gazebo>
  <gazebo reference="left_palm">
    <mu1>1.1</mu1>
    <mu2>1.1</mu2>
    <kp>1000000.0</kp>
    <kd>1.0</kd>
    <maxVel>0.1</maxVel>
    <minDepth>0.00</minDepth>
    <maxContacts>6</maxContacts>
    <material>Gazebo/FlatBlack</material>
  </gazebo>
  <joint name="left_palm_left_camera_frame_joint" type="fixed">
    <origin rpy="-0.6708 -1.57079632679 3.14159265359" xyz="0.0435128991906 -0.0451672761576 0.025"/>
    <parent link="left_palm"/>
    <child link="left_palm_left_camera_frame"/>
  </joint>
  <link name="left_palm_left_camera_frame">
    <inertial>
      <mass value="0.01"/>
      <origin xyz="0 0 0"/>
      <inertia ixx="0.0001" ixy="0.0" ixz="0.0" iyy="0.0001" iyz="0.0" izz="0.0001"/>
    </inertial>
    <visual group="default">
      <origin rpy="0 0 0" xyz="0 0 0"/>
      <geometry>
        <box size="0.003 0.010 0.007"/>
      </geometry>
    </visual>
  </link>
  <joint name="left_palm_left_camera_optical_frame_joint" type="fixed">
    <origin rpy="-1.57079632679 0.0 -1.57079632679" xyz="0 0 0"/>
    <parent link="left_palm_left_camera_frame"/>
    <child link="left_palm_left_camera_optical_frame"/>
  </joint>
  <link name="left_palm_left_camera_optical_frame"/>
  <gazebo reference="left_palm_left_camera_frame">
    <sensor name="left_palm_stereo_camera" type="multicamera">
      <update_rate>30.0</update_rate>
      <camera name="left">
        <horizontal_fov>1.25663706144</horizontal_fov>
        <image>
          <width>752</width>
          <height>480</height>
          <format>L8</format>
        </image>
        <clip>
          <near>0.02</near>
          <far>100</far>
        </clip>
        <noise>
          <type>gaussian</type>
          <mean>0.0</mean>
          <stddev>0.007</stddev>
        </noise>
      </camera>
      <camera name="right">
        <pose>0 -0.04 0  0 0 0</pose>
        <horizontal_fov>1.25663706144</horizontal_fov>
        <image>
          <width>752</width>
          <height>480</height>
          <format>L8</format>
        </image>
        <clip>
          <near>0.02</near>
          <far>100</far>
        </clip>
        <noise>
          <type>gaussian</type>
          <mean>0.0</mean>
          <stddev>0.007</stddev>
        </noise>
      </camera>
      <plugin filename="libgazebo_ros_multicamera.so" name="stereo_camera_controller">
        <alwaysOn>true</alwaysOn>
        <updateRate>0.0</updateRate>
        <cameraName>sandia_hands/l_hand</cameraName>
        <imageTopicName>image_raw</imageTopicName>
        <cameraInfoTopicName>camera_info</cameraInfoTopicName>
        <frameName>left_palm_left_camera_optical_frame</frameName>
        <hackBaseline>0.04</hackBaseline>
        <distortionK1>0.0</distortionK1>
        <distortionK2>0.0</distortionK2>
        <distortionK3>0.0</distortionK3>
        <distortionT1>0.0</distortionT1>
        <distortionT2>0.0</distortionT2>
      </plugin>
    </sensor>
  </gazebo>
  <joint name="left_palm_right_camera_frame_joint" type="fixed">
    <origin rpy="-0.6708 -1.57079632679 3.14159265359" xyz="0.0683774130138 -0.0138342911048 0.025"/>
    <parent link="left_palm"/>
    <child link="left_palm_right_camera_frame"/>
  </joint>
  <link name="left_palm_right_camera_frame">
    <inertial>
      <mass value="0.01"/>
      <origin xyz="0 0 0"/>
      <inertia ixx="0.0001" ixy="0.0" ixz="0.0" iyy="0.0001" iyz="0.0" izz="0.0001"/>
    </inertial>
    <visual group="default">
      <origin rpy="0 0 0" xyz="0 0 0"/>
      <geometry>
        <box size="0.003 0.010 0.007"/>
      </geometry>
    </visual>
  </link>
  <joint name="left_palm_right_camera_optical_frame_joint" type="fixed">
    <origin rpy="-1.57079632679 0.0 -1.57079632679" xyz="0 0 0"/>
    <parent link="left_palm_right_camera_frame"/>
    <child link="left_palm_right_camera_optical_frame"/>
  </joint>
  <link name="left_palm_right_camera_optical_frame"/>
  <gazebo>
    <plugin filename="libContactModelPlugin.so" name="sandia_contact_plugin">
      <contact>
        <collision>l_hand::l_hand_collision_left_palm</collision>
        <collision>l_hand::l_hand_collision_left_palm_1</collision>
        <collision>l_hand::l_hand_collision_left_palm_3</collision>
        <collision>l_hand::l_hand_collision_left_palm_4</collision>
        <collision>l_hand::l_hand_collision_left_palm_5</collision>
        <collision>left_f0_1::left_f0_1_collision</collision>
        <collision>left_f0_2::left_f0_2_collision</collision>
        <collision>left_f1_1::left_f1_1_collision</collision>
        <collision>left_f1_2::left_f1_2_collision</collision>
        <collision>left_f2_1::left_f2_1_collision</collision>
        <collision>left_f2_2::left_f2_2_collision</collision>
        <collision>left_f3_1::left_f3_1_collision</collision>
        <collision>left_f3_2::left_f3_2_collision</collision>
      </contact>
    </plugin>
  </gazebo>
  <gazebo reference="l_hand">
    <sensor name="imu_sensor" type="imu">
      <always_on>1</always_on>
      <update_rate>1000.0</update_rate>
      <imu>
        <noise>
          <type>gaussian</type>
          <rate>
            <mean>0.0</mean>
            <stddev>2e-4</stddev>
            <bias_mean>0.0000075</bias_mean>
            <bias_stddev>0.0000008</bias_stddev>
          </rate>
          <accel>
            <mean>0.0</mean>
            <stddev>1.7e-2</stddev>
            <bias_mean>0.1</bias_mean>
            <bias_stddev>0.001</bias_stddev>
          </accel>
        </noise>
      </imu>
    </sensor>
  </gazebo>
  <gazebo>
    <!-- include plugin for sandia hands -->
    <plugin filename="libSandiaHandPlugin.so" name="sandia_hand_plugin"/>
  </gazebo>
  <link name="right_palm">
    <origin rpy="0 0 0" xyz="0 0 0"/>
    <inertial>
      <mass value="1.303"/>
      <origin xyz="0 0 0"/>
      <!-- solid sphere with 5cm radius -->
      <inertia ixx="0.001303" ixy="0" ixz="0" iyy="0.001303" iyz="0" izz="0.001303"/>
    </inertial>
    <!-- begin simple shape approximation of palm -->
    <collision group="default">
      <origin rpy="0 1.57079632679 -0.9" xyz="0.069 0.016 0.038"/>
      <geometry>
        <cylinder length="0.100" radius="0.013"/>
      </geometry>
    </collision>
    <collision group="other">
      <origin rpy="0.41 0 -0.9" xyz="0.064 0.008 0.021"/>
      <geometry>
        <box size="0.09 .035 .05"/>
      </geometry>
    </collision>
    <collision group="other">
      <origin rpy="0 1.57079632679 0" xyz="0.02 0 -0.005"/>
      <geometry>
        <cylinder length="0.05" radius="0.038"/>
      </geometry>
    </collision>
    <collision group="other">
      <origin rpy="0 0 0.37" xyz="0.11 -0.01 -0.005"/>
      <geometry>
        <box size="0.09 .03 .06"/>
      </geometry>
    </collision>
    <collision group="other">
      <origin rpy="0 0 0.37" xyz="0.09 0.02 -0.005"/>
      <geometry>
        <box size="0.09 .03 .06"/>
      </geometry>
    </collision>
    <collision group="other">
      <origin rpy="0 0 0.37" xyz="0.060 0.05 -0.005"/>
      <geometry>
        <box size="0.09 .03 .06"/>
      </geometry>
    </collision>
    <collision group="other">
      <origin rpy="0 0 0.79" xyz="0.044 -0.04 -0.005"/>
      <geometry>
        <box size="0.09 .03 .06"/>
      </geometry>
    </collision>
    <!--   end simple shape approximation of palm -->
    <!-- begin visual shape approximation of palm -->
    <visual>
      <origin rpy="0 1.57079632679 -0.9" xyz="0.069 0.016 0.038"/>
      <geometry>
        <cylinder length="0.100" radius="0.013"/>
      </geometry>
      <material name="right_sandia_hand_skin">
        <color rgba="0.835 0.655 0.345 1.0"/>
      </material>
    </visual>
    <visual>
      <origin rpy="0.41 0 -0.9" xyz="0.064 0.008 0.021"/>
      <geometry>
        <box size="0.09 .035 .05"/>
      </geometry>
      <material name="right_sandia_hand_skin">
        <color rgba="0.835 0.655 0.345 1.0"/>
      </material>
    </visual>
    <visual>
      <origin rpy="0 1.57079632679 0" xyz="0.02 0 -0.005"/>
      <geometry>
        <cylinder length="0.05" radius="0.038"/>
      </geometry>
      <material name="right_sandia_hand_skin">
        <color rgba="0.835 0.655 0.345 1.0"/>
      </material>
    </visual>
    <visual>
      <origin rpy="0 0 0.37" xyz="0.11 -0.01 -0.005"/>
      <geometry>
        <box size="0.09 .03 .06"/>
      </geometry>
      <material name="right_sandia_hand_skin">
        <color rgba="0.835 0.655 0.345 1.0"/>
      </material>
    </visual>
    <visual>
      <origin rpy="0 0 0.37" xyz="0.09 0.02 -0.005"/>
      <geometry>
        <box size="0.09 .03 .06"/>
      </geometry>
      <material name="right_sandia_hand_skin">
        <color rgba="0.835 0.655 0.345 1.0"/>
      </material>
    </visual>
    <visual>
      <origin rpy="0 0 0.37" xyz="0.060 0.05 -0.005"/>
      <geometry>
        <box size="0.09 .03 .06"/>
      </geometry>
      <material name="right_sandia_hand_skin">
        <color rgba="0.835 0.655 0.345 1.0"/>
      </material>
    </visual>
    <visual>
      <origin rpy="0 0 0.79" xyz="0.044 -0.04 -0.005"/>
      <geometry>
        <box size="0.09 .03 .06"/>
      </geometry>
      <material name="right_sandia_hand_skin">
        <color rgba="0.835 0.655 0.345 1.0"/>
      </material>
    </visual>
    <!--   end visual shape approximation of palm -->
    <!-- begin collision mesh of f2 ->
      <collision group="default">
        <origin xyz="0 0 0" rpy="0 0 0"/>
        <geometry>
          <mesh filename="package://sandia_hand_description/meshes/palm.stl"/>
        </geometry>
      </collision>
      <!-   end collision mesh of f2 -->
    <!-- begin visual mesh of f2    ->
      <visual>
        <origin xyz="0 0 0" rpy="0 0 0"/>
        <geometry>
          <mesh filename="package://sandia_hand_description/meshes/palm.stl"/>
        </geometry>
        <material name="${side}_sandia_hand_skin">
          <color rgba="0.835 0.655 0.345 1.0"/>
        </material>
      </visual>
      <!-   end visual mesh of f2 -->
  </link>
  <joint name="right_sandia_hand_joint" type="fixed">
    <parent link="r_hand"/>
    <child link="right_palm"/>
    <origin rpy="0 0 -1.57079" xyz="-0.00179 -0.13516 0.01176"/>
  </joint>
  <link name="right_f0_base">
    <origin rpy="0 0 0" xyz="0 0 0"/>
    <inertial>
      <!-- total mass is 2.303 kg, palm is about 1.303 kg, distribute the rest into _base -->
      <mass value="0.250"/>
      <!-- (2.303 - 1.303) / 4 -->
      <origin xyz="0 0 0"/>
      <!-- model as sphere with radius of 1cm -->
      <inertia ixx="0.00001" ixy="0" ixz="0" iyy="0.00001" iyz="0" izz="0.00001"/>
    </inertial>
  </link>
  <link name="right_f0_fixed_accel">
    <origin rpy="0 0 0" xyz="0 0 0"/>
    <inertial>
      <mass value="0.01"/>
      <origin xyz="0 0 0"/>
      <inertia ixx="0.000001" ixy="0" ixz="0" iyy="0.000001" iyz="0" izz="0.000001"/>
    </inertial>
  </link>
  <link name="right_f0_0">
    <origin rpy="0 0 0" xyz="0 0 0"/>
    <inertial>
      <mass value="0.106"/>
      <!-- F1 -->
      <origin xyz="0 0 0"/>
      <!-- solid cylinder -->
      <inertia ixx="0.000011925" ixy="0" ixz="0" iyy="0.00011505" iyz="0" izz="0.00011505"/>
    </inertial>
    <!-- begin simple shape approximation of f0 -->
    <collision group="default">
      <origin rpy="0 0 0" xyz="0 0 0.003"/>
      <geometry>
        <cylinder length="0.023" radius="0.015"/>
      </geometry>
    </collision>
    <collision group="other">
      <origin rpy="1.57079632679 0 0" xyz="0.011 0 0.003"/>
      <geometry>
        <cylinder length="0.023" radius="0.01"/>
      </geometry>
    </collision>
    <!--   end simple shape approximation of f0 -->
    <!-- begin visual shape approximation of f0 -->
    <visual>
      <origin rpy="0 0 0" xyz="0 0 0.003"/>
      <geometry>
        <cylinder length="0.023" radius="0.015"/>
      </geometry>
      <material name="right_sandia_hand_skin_suntan">
        <color rgba="0.7 0.4 0.2 1.0"/>
      </material>
    </visual>
    <visual>
      <origin rpy="1.57079632679 0 0" xyz="0.011 0 0.003"/>
      <geometry>
        <cylinder length="0.023" radius="0.01"/>
      </geometry>
      <material name="right_sandia_hand_skin_suntan">
        <color rgba="0.7 0.4 0.2 1.0"/>
      </material>
    </visual>
    <!--   end visual shape approximation of f0 -->
    <!-- begin collision mesh of f0 ->
      <collision group="default">
        <origin xyz="0 0 0" rpy="0 0 0"/>
        <geometry>
          <mesh filename="package://sandia_hand_description/meshes/f0.stl"/>
        </geometry>
      </collision>
      <!-   end collision mesh of f0 -->
    <!-- begin visual mesh of f0 ->
      <visual>
        <origin xyz="0 0 0" rpy="0 0 0"/>
        <geometry>
          <mesh filename="package://sandia_hand_description/meshes/f0.stl"/>
        </geometry>
        <material name="${side}_sandia_hand_skin_suntan">
          <color rgba="0.7 0.4 0.2 1.0"/>
        </material>
      </visual>
      <!-   end visual mesh of f0 -->
  </link>
  <link name="right_f0_1">
    <origin rpy="0 0 0" xyz="0 0 0"/>
    <inertial>
      <mass value="0.033"/>
      <!-- F2 -->
      <origin xyz="0 0 0"/>
      <!-- solid cylinder -->
      <inertia ixx="0.00000165" ixy="0" ixz="0" iyy="0.00001316975" iyz="0" izz="0.00001316975"/>
    </inertial>
    <!-- begin simple shape approximation of f1 -->
    <collision group="default">
      <origin rpy="0 1.57079632679 0" xyz="0.024 0 0"/>
      <geometry>
        <cylinder length="0.067" radius="0.01"/>
      </geometry>
    </collision>
    <!--   end simple shape approximation of f1 -->
    <!-- begin visual shape approximation of f1 -->
    <visual>
      <origin rpy="0 1.57079632679 0" xyz="0.024 0 0"/>
      <geometry>
        <cylinder length="0.067" radius="0.01"/>
      </geometry>
      <material name="right_sandia_hand_skin">
        <color rgba="0.835 0.655 0.345 1.0"/>
      </material>
    </visual>
    <!--   end visual shape approximation of f1 -->
    <!-- begin collision mesh of f1 ->
      <collision group="default">
        <origin xyz="0 0 0" rpy="0 0 0"/>
        <geometry>
          <mesh filename="package://sandia_hand_description/meshes/f1.stl"/>
        </geometry>
      </collision>
      <!-   end collision mesh of f1 -->
    <!-- begin visual mesh of f1 ->
      <visual>
        <origin xyz="0 0 0" rpy="0 0 0"/>
        <geometry>
          <mesh filename="package://sandia_hand_description/meshes/f1.stl"/>
        </geometry>
        <material name="${side}_sandia_hand_skin">
          <color rgba="0.835 0.655 0.345 1.0"/>
        </material>
      </visual>
      <!-   end visual mesh of f1 -->
  </link>
  <link name="right_f0_1_accel">
    <origin rpy="0 0 0" xyz="0 0 0"/>
    <inertial>
      <mass value="0.01"/>
      <origin xyz="0 0 0"/>
      <inertia ixx="0.000001" ixy="0" ixz="0" iyy="0.000001" iyz="0" izz="0.000001"/>
    </inertial>
  </link>
  <link name="right_f0_2">
    <origin rpy="0 0 0" xyz="0 0 0"/>
    <inertial>
      <mass value="0.033"/>
      <!-- F3 -->
      <origin xyz="0 0 0"/>
      <!-- solid cylinder -->
      <inertia ixx="0.0000013365" ixy="0" ixz="0" iyy="0.000009603" iyz="0" izz="0.000009603"/>
    </inertial>
    <!-- begin simple shape approximation of f2 -->
    <collision group="default">
      <origin rpy="0 1.57079632679 0" xyz="0.024 0 0"/>
      <geometry>
        <cylinder length="0.057" radius="0.009"/>
      </geometry>
    </collision>
    <collision group="other">
      <origin rpy="0 0 0" xyz="0.052 0 0"/>
      <geometry>
        <sphere radius="0.009"/>
      </geometry>
    </collision>
    <!--   end simple shape approximation of f2 -->
    <!-- begin visual shape approximation of f2 -->
    <visual>
      <origin rpy="0 1.57079632679 0" xyz="0.024 0 0"/>
      <geometry>
        <cylinder length="0.057" radius="0.009"/>
      </geometry>
      <material name="right_sandia_hand_skin_suntan">
        <color rgba="0.8 0.6 0.3 1.0"/>
      </material>
    </visual>
    <visual>
      <origin rpy="0 0 0" xyz="0.052 0 0"/>
      <geometry>
        <sphere radius="0.009"/>
      </geometry>
      <material name="right_sandia_hand_skin_suntan">
        <color rgba="0.8 0.6 0.3 1.0"/>
      </material>
    </visual>
    <!-- begin collision mesh of f2    ->
      <collision group="default">
        <origin xyz="0 0 0" rpy="0 0 0"/>
        <geometry>
          <mesh filename="package://sandia_hand_description/meshes/f2.stl"/>
        </geometry>
      </collision>
      <!-   end collision mesh of f2 -->
    <!-- begin visual mesh of f2    ->
      <visual>
        <origin xyz="0 0 0" rpy="0 0 0"/>
        <geometry>
          <mesh filename="package://sandia_hand_description/meshes/f2.stl"/>
        </geometry>
        <material name="${side}_sandia_hand_skin_suntan">
          <color rgba="0.8 0.6 0.3 1.0"/>
        </material>
      </visual>
      <!-   end visual mesh of f2 -->
  </link>
  <link name="right_f0_2_accel">
    <origin rpy="0 0 0" xyz="0 0 0"/>
    <inertial>
      <mass value="0.01"/>
      <origin xyz="0 0 0"/>
      <inertia ixx="0.000001" ixy="0" ixz="0" iyy="0.000001" iyz="0" izz="0.000001"/>
    </inertial>
  </link>
  <joint name="right_f0_base" type="fixed">
    <parent link="right_palm"/>
    <child link="right_f0_base"/>
    <origin rpy="0 0 0.3" xyz="0.14 0.0 0"/>
  </joint>
  <joint name="right_f0_j0" type="revolute">
    <axis xyz="0 0 1"/>
    <parent link="right_f0_base"/>
    <child link="right_f0_0"/>
    <limit effort="11" lower="-1.57079632679" upper="1.57079632679" velocity="-1"/>
    <safety_controller k_position="1000.0" k_velocity="1000.0" soft_lower_limit="-11.57079" soft_upper_limit="11.57079"/>
    <dynamics damping="1.0"/>
    <origin rpy="0 0 0" xyz="0 0 0"/>
  </joint>
  <joint name="right_f0_j1" type="revolute">
    <axis xyz="0 0 1"/>
    <parent link="right_f0_0"/>
    <child link="right_f0_1"/>
    <limit effort="28" lower="-1.57079632679" upper="1.57079632679" velocity="-1"/>
    <safety_controller k_position="1000.0" k_velocity="1000.0" soft_lower_limit="-11.57079" soft_upper_limit="11.57079"/>
    <dynamics damping="1.0"/>
    <origin rpy="1.57079632679 0 0" xyz="0.028 0 0"/>
  </joint>
  <joint name="right_f0_j2" type="revolute">
    <axis xyz="0 0 1"/>
    <parent link="right_f0_1"/>
    <child link="right_f0_2"/>
    <origin rpy="0 0 0" xyz="0.05 0 0"/>
    <safety_controller k_position="1000.0" k_velocity="1000.0" soft_lower_limit="-11.57079" soft_upper_limit="11.57079"/>
    <dynamics damping="1.0"/>
    <limit effort="28" lower="-1.57079632679" upper="1.57079632679" velocity="-1"/>
  </joint>
  <joint name="right_f0_fixed_accel" type="fixed">
    <parent link="right_f0_base"/>
    <child link="right_f0_fixed_accel"/>
    <origin rpy="0 0 0" xyz="-0.05 0 0"/>
  </joint>
  <joint name="right_f0_1_accel" type="fixed">
    <parent link="right_f0_1"/>
    <child link="right_f0_1_accel"/>
    <origin rpy="-1.57079632679 0 0" xyz="0.03 0 0"/>
  </joint>
  <joint name="right_f0_2_accel" type="fixed">
    <parent link="right_f0_2"/>
    <child link="right_f0_2_accel"/>
    <origin rpy="-1.57079632679 0 0" xyz="0.04 0 0"/>
  </joint>
  <transmission name="right_f0_j0" type="pr2_mechanism_model/SimpleTransmission">
    <joint name="right_f0_j0"/>
    <actuator name="right_f0_j0_motor"/>
    <mechanicalReduction>1</mechanicalReduction>
  </transmission>
  <transmission name="right_f0_j1" type="pr2_mechanism_model/SimpleTransmission">
    <joint name="right_f0_j1"/>
    <actuator name="right_f0_j1_motor"/>
    <mechanicalReduction>1</mechanicalReduction>
  </transmission>
  <transmission name="right_f0_j2" type="pr2_mechanism_model/SimpleTransmission">
    <joint name="right_f0_j2"/>
    <actuator name="right_f0_j2_motor"/>
    <mechanicalReduction>1</mechanicalReduction>
  </transmission>
  <gazebo reference="right_f0_base">
    <mu1>1.1</mu1>
    <mu2>1.1</mu2>
    <kp>1000000.0</kp>
    <kd>10.0</kd>
    <maxVel>0.1</maxVel>
    <minDepth>0.00</minDepth>
    <maxContacts>1</maxContacts>
    <material>Gazebo/FlatBlack</material>
  </gazebo>
  <gazebo reference="right_f0_0">
    <mu1>1.1</mu1>
    <mu2>1.1</mu2>
    <kp>1000000.0</kp>
    <kd>10.0</kd>
    <maxVel>0.1</maxVel>
    <minDepth>0.00</minDepth>
    <maxContacts>1</maxContacts>
    <material>Gazebo/FlatBlack</material>
  </gazebo>
  <gazebo reference="right_f0_1">
    <mu1>1.1</mu1>
    <mu2>1.1</mu2>
    <kp>1000000.0</kp>
    <kd>10.0</kd>
    <maxVel>0.1</maxVel>
    <minDepth>0.00</minDepth>
    <maxContacts>1</maxContacts>
    <material>Gazebo/FlatBlack</material>
  </gazebo>
  <gazebo reference="right_f0_2">
    <mu1>1.1</mu1>
    <mu2>1.1</mu2>
    <kp>1000000.0</kp>
    <kd>10.0</kd>
    <maxVel>0.1</maxVel>
    <minDepth>0.00</minDepth>
    <maxContacts>1</maxContacts>
    <material>Gazebo/FlatBlack</material>
  </gazebo>
  <gazebo reference="right_f0_j0">
    <cfmDamping>1</cfmDamping>
  </gazebo>
  <gazebo reference="right_f0_j1">
    <cfmDamping>1</cfmDamping>
  </gazebo>
  <gazebo reference="right_f0_j2">
    <cfmDamping>1</cfmDamping>
  </gazebo>
  <link name="right_f1_base">
    <origin rpy="0 0 0" xyz="0 0 0"/>
    <inertial>
      <!-- total mass is 2.303 kg, palm is about 1.303 kg, distribute the rest into _base -->
      <mass value="0.250"/>
      <!-- (2.303 - 1.303) / 4 -->
      <origin xyz="0 0 0"/>
      <!-- model as sphere with radius of 1cm -->
      <inertia ixx="0.00001" ixy="0" ixz="0" iyy="0.00001" iyz="0" izz="0.00001"/>
    </inertial>
  </link>
  <link name="right_f1_fixed_accel">
    <origin rpy="0 0 0" xyz="0 0 0"/>
    <inertial>
      <mass value="0.01"/>
      <origin xyz="0 0 0"/>
      <inertia ixx="0.000001" ixy="0" ixz="0" iyy="0.000001" iyz="0" izz="0.000001"/>
    </inertial>
  </link>
  <link name="right_f1_0">
    <origin rpy="0 0 0" xyz="0 0 0"/>
    <inertial>
      <mass value="0.106"/>
      <!-- F1 -->
      <origin xyz="0 0 0"/>
      <!-- solid cylinder -->
      <inertia ixx="0.000011925" ixy="0" ixz="0" iyy="0.00011505" iyz="0" izz="0.00011505"/>
    </inertial>
    <!-- begin simple shape approximation of f0 -->
    <collision group="default">
      <origin rpy="0 0 0" xyz="0 0 0.003"/>
      <geometry>
        <cylinder length="0.023" radius="0.015"/>
      </geometry>
    </collision>
    <collision group="other">
      <origin rpy="1.57079632679 0 0" xyz="0.011 0 0.003"/>
      <geometry>
        <cylinder length="0.023" radius="0.01"/>
      </geometry>
    </collision>
    <!--   end simple shape approximation of f0 -->
    <!-- begin visual shape approximation of f0 -->
    <visual>
      <origin rpy="0 0 0" xyz="0 0 0.003"/>
      <geometry>
        <cylinder length="0.023" radius="0.015"/>
      </geometry>
      <material name="right_sandia_hand_skin_suntan">
        <color rgba="0.7 0.4 0.2 1.0"/>
      </material>
    </visual>
    <visual>
      <origin rpy="1.57079632679 0 0" xyz="0.011 0 0.003"/>
      <geometry>
        <cylinder length="0.023" radius="0.01"/>
      </geometry>
      <material name="right_sandia_hand_skin_suntan">
        <color rgba="0.7 0.4 0.2 1.0"/>
      </material>
    </visual>
    <!--   end visual shape approximation of f0 -->
    <!-- begin collision mesh of f0 ->
      <collision group="default">
        <origin xyz="0 0 0" rpy="0 0 0"/>
        <geometry>
          <mesh filename="package://sandia_hand_description/meshes/f0.stl"/>
        </geometry>
      </collision>
      <!-   end collision mesh of f0 -->
    <!-- begin visual mesh of f0 ->
      <visual>
        <origin xyz="0 0 0" rpy="0 0 0"/>
        <geometry>
          <mesh filename="package://sandia_hand_description/meshes/f0.stl"/>
        </geometry>
        <material name="${side}_sandia_hand_skin_suntan">
          <color rgba="0.7 0.4 0.2 1.0"/>
        </material>
      </visual>
      <!-   end visual mesh of f0 -->
  </link>
  <link name="right_f1_1">
    <origin rpy="0 0 0" xyz="0 0 0"/>
    <inertial>
      <mass value="0.033"/>
      <!-- F2 -->
      <origin xyz="0 0 0"/>
      <!-- solid cylinder -->
      <inertia ixx="0.00000165" ixy="0" ixz="0" iyy="0.00001316975" iyz="0" izz="0.00001316975"/>
    </inertial>
    <!-- begin simple shape approximation of f1 -->
    <collision group="default">
      <origin rpy="0 1.57079632679 0" xyz="0.024 0 0"/>
      <geometry>
        <cylinder length="0.067" radius="0.01"/>
      </geometry>
    </collision>
    <!--   end simple shape approximation of f1 -->
    <!-- begin visual shape approximation of f1 -->
    <visual>
      <origin rpy="0 1.57079632679 0" xyz="0.024 0 0"/>
      <geometry>
        <cylinder length="0.067" radius="0.01"/>
      </geometry>
      <material name="right_sandia_hand_skin">
        <color rgba="0.835 0.655 0.345 1.0"/>
      </material>
    </visual>
    <!--   end visual shape approximation of f1 -->
    <!-- begin collision mesh of f1 ->
      <collision group="default">
        <origin xyz="0 0 0" rpy="0 0 0"/>
        <geometry>
          <mesh filename="package://sandia_hand_description/meshes/f1.stl"/>
        </geometry>
      </collision>
      <!-   end collision mesh of f1 -->
    <!-- begin visual mesh of f1 ->
      <visual>
        <origin xyz="0 0 0" rpy="0 0 0"/>
        <geometry>
          <mesh filename="package://sandia_hand_description/meshes/f1.stl"/>
        </geometry>
        <material name="${side}_sandia_hand_skin">
          <color rgba="0.835 0.655 0.345 1.0"/>
        </material>
      </visual>
      <!-   end visual mesh of f1 -->
  </link>
  <link name="right_f1_1_accel">
    <origin rpy="0 0 0" xyz="0 0 0"/>
    <inertial>
      <mass value="0.01"/>
      <origin xyz="0 0 0"/>
      <inertia ixx="0.000001" ixy="0" ixz="0" iyy="0.000001" iyz="0" izz="0.000001"/>
    </inertial>
  </link>
  <link name="right_f1_2">
    <origin rpy="0 0 0" xyz="0 0 0"/>
    <inertial>
      <mass value="0.033"/>
      <!-- F3 -->
      <origin xyz="0 0 0"/>
      <!-- solid cylinder -->
      <inertia ixx="0.0000013365" ixy="0" ixz="0" iyy="0.000009603" iyz="0" izz="0.000009603"/>
    </inertial>
    <!-- begin simple shape approximation of f2 -->
    <collision group="default">
      <origin rpy="0 1.57079632679 0" xyz="0.024 0 0"/>
      <geometry>
        <cylinder length="0.057" radius="0.009"/>
      </geometry>
    </collision>
    <collision group="other">
      <origin rpy="0 0 0" xyz="0.052 0 0"/>
      <geometry>
        <sphere radius="0.009"/>
      </geometry>
    </collision>
    <!--   end simple shape approximation of f2 -->
    <!-- begin visual shape approximation of f2 -->
    <visual>
      <origin rpy="0 1.57079632679 0" xyz="0.024 0 0"/>
      <geometry>
        <cylinder length="0.057" radius="0.009"/>
      </geometry>
      <material name="right_sandia_hand_skin_suntan">
        <color rgba="0.8 0.6 0.3 1.0"/>
      </material>
    </visual>
    <visual>
      <origin rpy="0 0 0" xyz="0.052 0 0"/>
      <geometry>
        <sphere radius="0.009"/>
      </geometry>
      <material name="right_sandia_hand_skin_suntan">
        <color rgba="0.8 0.6 0.3 1.0"/>
      </material>
    </visual>
    <!-- begin collision mesh of f2    ->
      <collision group="default">
        <origin xyz="0 0 0" rpy="0 0 0"/>
        <geometry>
          <mesh filename="package://sandia_hand_description/meshes/f2.stl"/>
        </geometry>
      </collision>
      <!-   end collision mesh of f2 -->
    <!-- begin visual mesh of f2    ->
      <visual>
        <origin xyz="0 0 0" rpy="0 0 0"/>
        <geometry>
          <mesh filename="package://sandia_hand_description/meshes/f2.stl"/>
        </geometry>
        <material name="${side}_sandia_hand_skin_suntan">
          <color rgba="0.8 0.6 0.3 1.0"/>
        </material>
      </visual>
      <!-   end visual mesh of f2 -->
  </link>
  <link name="right_f1_2_accel">
    <origin rpy="0 0 0" xyz="0 0 0"/>
    <inertial>
      <mass value="0.01"/>
      <origin xyz="0 0 0"/>
      <inertia ixx="0.000001" ixy="0" ixz="0" iyy="0.000001" iyz="0" izz="0.000001"/>
    </inertial>
  </link>
  <joint name="right_f1_base" type="fixed">
    <parent link="right_palm"/>
    <child link="right_f1_base"/>
    <origin rpy="0 0 0.3" xyz="0.115 0.03122 0"/>
  </joint>
  <joint name="right_f1_j0" type="revolute">
    <axis xyz="0 0 1"/>
    <parent link="right_f1_base"/>
    <child link="right_f1_0"/>
    <limit effort="11" lower="-1.57079632679" upper="1.57079632679" velocity="-1"/>
    <safety_controller k_position="1000.0" k_velocity="1000.0" soft_lower_limit="-11.57079" soft_upper_limit="11.57079"/>
    <dynamics damping="1.0"/>
    <origin rpy="0 0 0" xyz="0 0 0"/>
  </joint>
  <joint name="right_f1_j1" type="revolute">
    <axis xyz="0 0 1"/>
    <parent link="right_f1_0"/>
    <child link="right_f1_1"/>
    <limit effort="28" lower="-1.57079632679" upper="1.57079632679" velocity="-1"/>
    <safety_controller k_position="1000.0" k_velocity="1000.0" soft_lower_limit="-11.57079" soft_upper_limit="11.57079"/>
    <dynamics damping="1.0"/>
    <origin rpy="1.57079632679 0 0" xyz="0.028 0 0"/>
  </joint>
  <joint name="right_f1_j2" type="revolute">
    <axis xyz="0 0 1"/>
    <parent link="right_f1_1"/>
    <child link="right_f1_2"/>
    <origin rpy="0 0 0" xyz="0.05 0 0"/>
    <safety_controller k_position="1000.0" k_velocity="1000.0" soft_lower_limit="-11.57079" soft_upper_limit="11.57079"/>
    <dynamics damping="1.0"/>
    <limit effort="28" lower="-1.57079632679" upper="1.57079632679" velocity="-1"/>
  </joint>
  <joint name="right_f1_fixed_accel" type="fixed">
    <parent link="right_f1_base"/>
    <child link="right_f1_fixed_accel"/>
    <origin rpy="0 0 0" xyz="-0.05 0 0"/>
  </joint>
  <joint name="right_f1_1_accel" type="fixed">
    <parent link="right_f1_1"/>
    <child link="right_f1_1_accel"/>
    <origin rpy="-1.57079632679 0 0" xyz="0.03 0 0"/>
  </joint>
  <joint name="right_f1_2_accel" type="fixed">
    <parent link="right_f1_2"/>
    <child link="right_f1_2_accel"/>
    <origin rpy="-1.57079632679 0 0" xyz="0.04 0 0"/>
  </joint>
  <transmission name="right_f1_j0" type="pr2_mechanism_model/SimpleTransmission">
    <joint name="right_f1_j0"/>
    <actuator name="right_f1_j0_motor"/>
    <mechanicalReduction>1</mechanicalReduction>
  </transmission>
  <transmission name="right_f1_j1" type="pr2_mechanism_model/SimpleTransmission">
    <joint name="right_f1_j1"/>
    <actuator name="right_f1_j1_motor"/>
    <mechanicalReduction>1</mechanicalReduction>
  </transmission>
  <transmission name="right_f1_j2" type="pr2_mechanism_model/SimpleTransmission">
    <joint name="right_f1_j2"/>
    <actuator name="right_f1_j2_motor"/>
    <mechanicalReduction>1</mechanicalReduction>
  </transmission>
  <gazebo reference="right_f1_base">
    <mu1>1.1</mu1>
    <mu2>1.1</mu2>
    <kp>1000000.0</kp>
    <kd>10.0</kd>
    <maxVel>0.1</maxVel>
    <minDepth>0.00</minDepth>
    <maxContacts>1</maxContacts>
    <material>Gazebo/FlatBlack</material>
  </gazebo>
  <gazebo reference="right_f1_0">
    <mu1>1.1</mu1>
    <mu2>1.1</mu2>
    <kp>1000000.0</kp>
    <kd>10.0</kd>
    <maxVel>0.1</maxVel>
    <minDepth>0.00</minDepth>
    <maxContacts>1</maxContacts>
    <material>Gazebo/FlatBlack</material>
  </gazebo>
  <gazebo reference="right_f1_1">
    <mu1>1.1</mu1>
    <mu2>1.1</mu2>
    <kp>1000000.0</kp>
    <kd>10.0</kd>
    <maxVel>0.1</maxVel>
    <minDepth>0.00</minDepth>
    <maxContacts>1</maxContacts>
    <material>Gazebo/FlatBlack</material>
  </gazebo>
  <gazebo reference="right_f1_2">
    <mu1>1.1</mu1>
    <mu2>1.1</mu2>
    <kp>1000000.0</kp>
    <kd>10.0</kd>
    <maxVel>0.1</maxVel>
    <minDepth>0.00</minDepth>
    <maxContacts>1</maxContacts>
    <material>Gazebo/FlatBlack</material>
  </gazebo>
  <gazebo reference="right_f1_j0">
    <cfmDamping>1</cfmDamping>
  </gazebo>
  <gazebo reference="right_f1_j1">
    <cfmDamping>1</cfmDamping>
  </gazebo>
  <gazebo reference="right_f1_j2">
    <cfmDamping>1</cfmDamping>
  </gazebo>
  <link name="right_f2_base">
    <origin rpy="0 0 0" xyz="0 0 0"/>
    <inertial>
      <!-- total mass is 2.303 kg, palm is about 1.303 kg, distribute the rest into _base -->
      <mass value="0.250"/>
      <!-- (2.303 - 1.303) / 4 -->
      <origin xyz="0 0 0"/>
      <!-- model as sphere with radius of 1cm -->
      <inertia ixx="0.00001" ixy="0" ixz="0" iyy="0.00001" iyz="0" izz="0.00001"/>
    </inertial>
  </link>
  <link name="right_f2_fixed_accel">
    <origin rpy="0 0 0" xyz="0 0 0"/>
    <inertial>
      <mass value="0.01"/>
      <origin xyz="0 0 0"/>
      <inertia ixx="0.000001" ixy="0" ixz="0" iyy="0.000001" iyz="0" izz="0.000001"/>
    </inertial>
  </link>
  <link name="right_f2_0">
    <origin rpy="0 0 0" xyz="0 0 0"/>
    <inertial>
      <mass value="0.106"/>
      <!-- F1 -->
      <origin xyz="0 0 0"/>
      <!-- solid cylinder -->
      <inertia ixx="0.000011925" ixy="0" ixz="0" iyy="0.00011505" iyz="0" izz="0.00011505"/>
    </inertial>
    <!-- begin simple shape approximation of f0 -->
    <collision group="default">
      <origin rpy="0 0 0" xyz="0 0 0.003"/>
      <geometry>
        <cylinder length="0.023" radius="0.015"/>
      </geometry>
    </collision>
    <collision group="other">
      <origin rpy="1.57079632679 0 0" xyz="0.011 0 0.003"/>
      <geometry>
        <cylinder length="0.023" radius="0.01"/>
      </geometry>
    </collision>
    <!--   end simple shape approximation of f0 -->
    <!-- begin visual shape approximation of f0 -->
    <visual>
      <origin rpy="0 0 0" xyz="0 0 0.003"/>
      <geometry>
        <cylinder length="0.023" radius="0.015"/>
      </geometry>
      <material name="right_sandia_hand_skin_suntan">
        <color rgba="0.7 0.4 0.2 1.0"/>
      </material>
    </visual>
    <visual>
      <origin rpy="1.57079632679 0 0" xyz="0.011 0 0.003"/>
      <geometry>
        <cylinder length="0.023" radius="0.01"/>
      </geometry>
      <material name="right_sandia_hand_skin_suntan">
        <color rgba="0.7 0.4 0.2 1.0"/>
      </material>
    </visual>
    <!--   end visual shape approximation of f0 -->
    <!-- begin collision mesh of f0 ->
      <collision group="default">
        <origin xyz="0 0 0" rpy="0 0 0"/>
        <geometry>
          <mesh filename="package://sandia_hand_description/meshes/f0.stl"/>
        </geometry>
      </collision>
      <!-   end collision mesh of f0 -->
    <!-- begin visual mesh of f0 ->
      <visual>
        <origin xyz="0 0 0" rpy="0 0 0"/>
        <geometry>
          <mesh filename="package://sandia_hand_description/meshes/f0.stl"/>
        </geometry>
        <material name="${side}_sandia_hand_skin_suntan">
          <color rgba="0.7 0.4 0.2 1.0"/>
        </material>
      </visual>
      <!-   end visual mesh of f0 -->
  </link>
  <link name="right_f2_1">
    <origin rpy="0 0 0" xyz="0 0 0"/>
    <inertial>
      <mass value="0.033"/>
      <!-- F2 -->
      <origin xyz="0 0 0"/>
      <!-- solid cylinder -->
      <inertia ixx="0.00000165" ixy="0" ixz="0" iyy="0.00001316975" iyz="0" izz="0.00001316975"/>
    </inertial>
    <!-- begin simple shape approximation of f1 -->
    <collision group="default">
      <origin rpy="0 1.57079632679 0" xyz="0.024 0 0"/>
      <geometry>
        <cylinder length="0.067" radius="0.01"/>
      </geometry>
    </collision>
    <!--   end simple shape approximation of f1 -->
    <!-- begin visual shape approximation of f1 -->
    <visual>
      <origin rpy="0 1.57079632679 0" xyz="0.024 0 0"/>
      <geometry>
        <cylinder length="0.067" radius="0.01"/>
      </geometry>
      <material name="right_sandia_hand_skin">
        <color rgba="0.835 0.655 0.345 1.0"/>
      </material>
    </visual>
    <!--   end visual shape approximation of f1 -->
    <!-- begin collision mesh of f1 ->
      <collision group="default">
        <origin xyz="0 0 0" rpy="0 0 0"/>
        <geometry>
          <mesh filename="package://sandia_hand_description/meshes/f1.stl"/>
        </geometry>
      </collision>
      <!-   end collision mesh of f1 -->
    <!-- begin visual mesh of f1 ->
      <visual>
        <origin xyz="0 0 0" rpy="0 0 0"/>
        <geometry>
          <mesh filename="package://sandia_hand_description/meshes/f1.stl"/>
        </geometry>
        <material name="${side}_sandia_hand_skin">
          <color rgba="0.835 0.655 0.345 1.0"/>
        </material>
      </visual>
      <!-   end visual mesh of f1 -->
  </link>
  <link name="right_f2_1_accel">
    <origin rpy="0 0 0" xyz="0 0 0"/>
    <inertial>
      <mass value="0.01"/>
      <origin xyz="0 0 0"/>
      <inertia ixx="0.000001" ixy="0" ixz="0" iyy="0.000001" iyz="0" izz="0.000001"/>
    </inertial>
  </link>
  <link name="right_f2_2">
    <origin rpy="0 0 0" xyz="0 0 0"/>
    <inertial>
      <mass value="0.033"/>
      <!-- F3 -->
      <origin xyz="0 0 0"/>
      <!-- solid cylinder -->
      <inertia ixx="0.0000013365" ixy="0" ixz="0" iyy="0.000009603" iyz="0" izz="0.000009603"/>
    </inertial>
    <!-- begin simple shape approximation of f2 -->
    <collision group="default">
      <origin rpy="0 1.57079632679 0" xyz="0.024 0 0"/>
      <geometry>
        <cylinder length="0.057" radius="0.009"/>
      </geometry>
    </collision>
    <collision group="other">
      <origin rpy="0 0 0" xyz="0.052 0 0"/>
      <geometry>
        <sphere radius="0.009"/>
      </geometry>
    </collision>
    <!--   end simple shape approximation of f2 -->
    <!-- begin visual shape approximation of f2 -->
    <visual>
      <origin rpy="0 1.57079632679 0" xyz="0.024 0 0"/>
      <geometry>
        <cylinder length="0.057" radius="0.009"/>
      </geometry>
      <material name="right_sandia_hand_skin_suntan">
        <color rgba="0.8 0.6 0.3 1.0"/>
      </material>
    </visual>
    <visual>
      <origin rpy="0 0 0" xyz="0.052 0 0"/>
      <geometry>
        <sphere radius="0.009"/>
      </geometry>
      <material name="right_sandia_hand_skin_suntan">
        <color rgba="0.8 0.6 0.3 1.0"/>
      </material>
    </visual>
    <!-- begin collision mesh of f2    ->
      <collision group="default">
        <origin xyz="0 0 0" rpy="0 0 0"/>
        <geometry>
          <mesh filename="package://sandia_hand_description/meshes/f2.stl"/>
        </geometry>
      </collision>
      <!-   end collision mesh of f2 -->
    <!-- begin visual mesh of f2    ->
      <visual>
        <origin xyz="0 0 0" rpy="0 0 0"/>
        <geometry>
          <mesh filename="package://sandia_hand_description/meshes/f2.stl"/>
        </geometry>
        <material name="${side}_sandia_hand_skin_suntan">
          <color rgba="0.8 0.6 0.3 1.0"/>
        </material>
      </visual>
      <!-   end visual mesh of f2 -->
  </link>
  <link name="right_f2_2_accel">
    <origin rpy="0 0 0" xyz="0 0 0"/>
    <inertial>
      <mass value="0.01"/>
      <origin xyz="0 0 0"/>
      <inertia ixx="0.000001" ixy="0" ixz="0" iyy="0.000001" iyz="0" izz="0.000001"/>
    </inertial>
  </link>
  <joint name="right_f2_base" type="fixed">
    <parent link="right_palm"/>
    <child link="right_f2_base"/>
    <origin rpy="0 0 0.3" xyz="0.09 0.06245 0"/>
  </joint>
  <joint name="right_f2_j0" type="revolute">
    <axis xyz="0 0 1"/>
    <parent link="right_f2_base"/>
    <child link="right_f2_0"/>
    <limit effort="11" lower="-1.57079632679" upper="1.57079632679" velocity="-1"/>
    <safety_controller k_position="1000.0" k_velocity="1000.0" soft_lower_limit="-11.57079" soft_upper_limit="11.57079"/>
    <dynamics damping="1.0"/>
    <origin rpy="0 0 0" xyz="0 0 0"/>
  </joint>
  <joint name="right_f2_j1" type="revolute">
    <axis xyz="0 0 1"/>
    <parent link="right_f2_0"/>
    <child link="right_f2_1"/>
    <limit effort="28" lower="-1.57079632679" upper="1.57079632679" velocity="-1"/>
    <safety_controller k_position="1000.0" k_velocity="1000.0" soft_lower_limit="-11.57079" soft_upper_limit="11.57079"/>
    <dynamics damping="1.0"/>
    <origin rpy="1.57079632679 0 0" xyz="0.028 0 0"/>
  </joint>
  <joint name="right_f2_j2" type="revolute">
    <axis xyz="0 0 1"/>
    <parent link="right_f2_1"/>
    <child link="right_f2_2"/>
    <origin rpy="0 0 0" xyz="0.05 0 0"/>
    <safety_controller k_position="1000.0" k_velocity="1000.0" soft_lower_limit="-11.57079" soft_upper_limit="11.57079"/>
    <dynamics damping="1.0"/>
    <limit effort="28" lower="-1.57079632679" upper="1.57079632679" velocity="-1"/>
  </joint>
  <joint name="right_f2_fixed_accel" type="fixed">
    <parent link="right_f2_base"/>
    <child link="right_f2_fixed_accel"/>
    <origin rpy="0 0 0" xyz="-0.05 0 0"/>
  </joint>
  <joint name="right_f2_1_accel" type="fixed">
    <parent link="right_f2_1"/>
    <child link="right_f2_1_accel"/>
    <origin rpy="-1.57079632679 0 0" xyz="0.03 0 0"/>
  </joint>
  <joint name="right_f2_2_accel" type="fixed">
    <parent link="right_f2_2"/>
    <child link="right_f2_2_accel"/>
    <origin rpy="-1.57079632679 0 0" xyz="0.04 0 0"/>
  </joint>
  <transmission name="right_f2_j0" type="pr2_mechanism_model/SimpleTransmission">
    <joint name="right_f2_j0"/>
    <actuator name="right_f2_j0_motor"/>
    <mechanicalReduction>1</mechanicalReduction>
  </transmission>
  <transmission name="right_f2_j1" type="pr2_mechanism_model/SimpleTransmission">
    <joint name="right_f2_j1"/>
    <actuator name="right_f2_j1_motor"/>
    <mechanicalReduction>1</mechanicalReduction>
  </transmission>
  <transmission name="right_f2_j2" type="pr2_mechanism_model/SimpleTransmission">
    <joint name="right_f2_j2"/>
    <actuator name="right_f2_j2_motor"/>
    <mechanicalReduction>1</mechanicalReduction>
  </transmission>
  <gazebo reference="right_f2_base">
    <mu1>1.1</mu1>
    <mu2>1.1</mu2>
    <kp>1000000.0</kp>
    <kd>10.0</kd>
    <maxVel>0.1</maxVel>
    <minDepth>0.00</minDepth>
    <maxContacts>1</maxContacts>
    <material>Gazebo/FlatBlack</material>
  </gazebo>
  <gazebo reference="right_f2_0">
    <mu1>1.1</mu1>
    <mu2>1.1</mu2>
    <kp>1000000.0</kp>
    <kd>10.0</kd>
    <maxVel>0.1</maxVel>
    <minDepth>0.00</minDepth>
    <maxContacts>1</maxContacts>
    <material>Gazebo/FlatBlack</material>
  </gazebo>
  <gazebo reference="right_f2_1">
    <mu1>1.1</mu1>
    <mu2>1.1</mu2>
    <kp>1000000.0</kp>
    <kd>10.0</kd>
    <maxVel>0.1</maxVel>
    <minDepth>0.00</minDepth>
    <maxContacts>1</maxContacts>
    <material>Gazebo/FlatBlack</material>
  </gazebo>
  <gazebo reference="right_f2_2">
    <mu1>1.1</mu1>
    <mu2>1.1</mu2>
    <kp>1000000.0</kp>
    <kd>10.0</kd>
    <maxVel>0.1</maxVel>
    <minDepth>0.00</minDepth>
    <maxContacts>1</maxContacts>
    <material>Gazebo/FlatBlack</material>
  </gazebo>
  <gazebo reference="right_f2_j0">
    <cfmDamping>1</cfmDamping>
  </gazebo>
  <gazebo reference="right_f2_j1">
    <cfmDamping>1</cfmDamping>
  </gazebo>
  <gazebo reference="right_f2_j2">
    <cfmDamping>1</cfmDamping>
  </gazebo>
  <link name="right_f3_base">
    <origin rpy="0 0 0" xyz="0 0 0"/>
    <inertial>
      <!-- total mass is 2.303 kg, palm is about 1.303 kg, distribute the rest into _base -->
      <mass value="0.250"/>
      <!-- (2.303 - 1.303) / 4 -->
      <origin xyz="0 0 0"/>
      <!-- model as sphere with radius of 1cm -->
      <inertia ixx="0.00001" ixy="0" ixz="0" iyy="0.00001" iyz="0" izz="0.00001"/>
    </inertial>
  </link>
  <link name="right_f3_fixed_accel">
    <origin rpy="0 0 0" xyz="0 0 0"/>
    <inertial>
      <mass value="0.01"/>
      <origin xyz="0 0 0"/>
      <inertia ixx="0.000001" ixy="0" ixz="0" iyy="0.000001" iyz="0" izz="0.000001"/>
    </inertial>
  </link>
  <link name="right_f3_0">
    <origin rpy="0 0 0" xyz="0 0 0"/>
    <inertial>
      <mass value="0.106"/>
      <!-- F1 -->
      <origin xyz="0 0 0"/>
      <!-- solid cylinder -->
      <inertia ixx="0.000011925" ixy="0" ixz="0" iyy="0.00011505" iyz="0" izz="0.00011505"/>
    </inertial>
    <!-- begin simple shape approximation of f0 -->
    <collision group="default">
      <origin rpy="0 0 0" xyz="0 0 0.003"/>
      <geometry>
        <cylinder length="0.023" radius="0.015"/>
      </geometry>
    </collision>
    <collision group="other">
      <origin rpy="1.57079632679 0 0" xyz="0.011 0 0.003"/>
      <geometry>
        <cylinder length="0.023" radius="0.01"/>
      </geometry>
    </collision>
    <!--   end simple shape approximation of f0 -->
    <!-- begin visual shape approximation of f0 -->
    <visual>
      <origin rpy="0 0 0" xyz="0 0 0.003"/>
      <geometry>
        <cylinder length="0.023" radius="0.015"/>
      </geometry>
      <material name="right_sandia_hand_skin_suntan">
        <color rgba="0.7 0.4 0.2 1.0"/>
      </material>
    </visual>
    <visual>
      <origin rpy="1.57079632679 0 0" xyz="0.011 0 0.003"/>
      <geometry>
        <cylinder length="0.023" radius="0.01"/>
      </geometry>
      <material name="right_sandia_hand_skin_suntan">
        <color rgba="0.7 0.4 0.2 1.0"/>
      </material>
    </visual>
    <!--   end visual shape approximation of f0 -->
    <!-- begin collision mesh of f0 ->
      <collision group="default">
        <origin xyz="0 0 0" rpy="0 0 0"/>
        <geometry>
          <mesh filename="package://sandia_hand_description/meshes/f0.stl"/>
        </geometry>
      </collision>
      <!-   end collision mesh of f0 -->
    <!-- begin visual mesh of f0 ->
      <visual>
        <origin xyz="0 0 0" rpy="0 0 0"/>
        <geometry>
          <mesh filename="package://sandia_hand_description/meshes/f0.stl"/>
        </geometry>
        <material name="${side}_sandia_hand_skin_suntan">
          <color rgba="0.7 0.4 0.2 1.0"/>
        </material>
      </visual>
      <!-   end visual mesh of f0 -->
  </link>
  <link name="right_f3_1">
    <origin rpy="0 0 0" xyz="0 0 0"/>
    <inertial>
      <mass value="0.033"/>
      <!-- F2 -->
      <origin xyz="0 0 0"/>
      <!-- solid cylinder -->
      <inertia ixx="0.00000165" ixy="0" ixz="0" iyy="0.00001316975" iyz="0" izz="0.00001316975"/>
    </inertial>
    <!-- begin simple shape approximation of f1 -->
    <collision group="default">
      <origin rpy="0 1.57079632679 0" xyz="0.024 0 0"/>
      <geometry>
        <cylinder length="0.067" radius="0.01"/>
      </geometry>
    </collision>
    <!--   end simple shape approximation of f1 -->
    <!-- begin visual shape approximation of f1 -->
    <visual>
      <origin rpy="0 1.57079632679 0" xyz="0.024 0 0"/>
      <geometry>
        <cylinder length="0.067" radius="0.01"/>
      </geometry>
      <material name="right_sandia_hand_skin">
        <color rgba="0.835 0.655 0.345 1.0"/>
      </material>
    </visual>
    <!--   end visual shape approximation of f1 -->
    <!-- begin collision mesh of f1 ->
      <collision group="default">
        <origin xyz="0 0 0" rpy="0 0 0"/>
        <geometry>
          <mesh filename="package://sandia_hand_description/meshes/f1.stl"/>
        </geometry>
      </collision>
      <!-   end collision mesh of f1 -->
    <!-- begin visual mesh of f1 ->
      <visual>
        <origin xyz="0 0 0" rpy="0 0 0"/>
        <geometry>
          <mesh filename="package://sandia_hand_description/meshes/f1.stl"/>
        </geometry>
        <material name="${side}_sandia_hand_skin">
          <color rgba="0.835 0.655 0.345 1.0"/>
        </material>
      </visual>
      <!-   end visual mesh of f1 -->
  </link>
  <link name="right_f3_1_accel">
    <origin rpy="0 0 0" xyz="0 0 0"/>
    <inertial>
      <mass value="0.01"/>
      <origin xyz="0 0 0"/>
      <inertia ixx="0.000001" ixy="0" ixz="0" iyy="0.000001" iyz="0" izz="0.000001"/>
    </inertial>
  </link>
  <link name="right_f3_2">
    <origin rpy="0 0 0" xyz="0 0 0"/>
    <inertial>
      <mass value="0.033"/>
      <!-- F3 -->
      <origin xyz="0 0 0"/>
      <!-- solid cylinder -->
      <inertia ixx="0.0000013365" ixy="0" ixz="0" iyy="0.000009603" iyz="0" izz="0.000009603"/>
    </inertial>
    <!-- begin simple shape approximation of f2 -->
    <collision group="default">
      <origin rpy="0 1.57079632679 0" xyz="0.024 0 0"/>
      <geometry>
        <cylinder length="0.057" radius="0.009"/>
      </geometry>
    </collision>
    <collision group="other">
      <origin rpy="0 0 0" xyz="0.052 0 0"/>
      <geometry>
        <sphere radius="0.009"/>
      </geometry>
    </collision>
    <!--   end simple shape approximation of f2 -->
    <!-- begin visual shape approximation of f2 -->
    <visual>
      <origin rpy="0 1.57079632679 0" xyz="0.024 0 0"/>
      <geometry>
        <cylinder length="0.057" radius="0.009"/>
      </geometry>
      <material name="right_sandia_hand_skin_suntan">
        <color rgba="0.8 0.6 0.3 1.0"/>
      </material>
    </visual>
    <visual>
      <origin rpy="0 0 0" xyz="0.052 0 0"/>
      <geometry>
        <sphere radius="0.009"/>
      </geometry>
      <material name="right_sandia_hand_skin_suntan">
        <color rgba="0.8 0.6 0.3 1.0"/>
      </material>
    </visual>
    <!-- begin collision mesh of f2    ->
      <collision group="default">
        <origin xyz="0 0 0" rpy="0 0 0"/>
        <geometry>
          <mesh filename="package://sandia_hand_description/meshes/f2.stl"/>
        </geometry>
      </collision>
      <!-   end collision mesh of f2 -->
    <!-- begin visual mesh of f2    ->
      <visual>
        <origin xyz="0 0 0" rpy="0 0 0"/>
        <geometry>
          <mesh filename="package://sandia_hand_description/meshes/f2.stl"/>
        </geometry>
        <material name="${side}_sandia_hand_skin_suntan">
          <color rgba="0.8 0.6 0.3 1.0"/>
        </material>
      </visual>
      <!-   end visual mesh of f2 -->
  </link>
  <link name="right_f3_2_accel">
    <origin rpy="0 0 0" xyz="0 0 0"/>
    <inertial>
      <mass value="0.01"/>
      <origin xyz="0 0 0"/>
      <inertia ixx="0.000001" ixy="0" ixz="0" iyy="0.000001" iyz="0" izz="0.000001"/>
    </inertial>
  </link>
  <joint name="right_f3_base" type="fixed">
    <parent link="right_palm"/>
    <child link="right_f3_base"/>
    <origin rpy="0 -1.57079632679 -2.3562" xyz="0.03995 -0.04383 0.014"/>
  </joint>
  <joint name="right_f3_j0" type="revolute">
    <axis xyz="0 0 1"/>
    <parent link="right_f3_base"/>
    <child link="right_f3_0"/>
    <limit effort="11" lower="-1.57079632679" upper="1.57079632679" velocity="-1"/>
    <safety_controller k_position="1000.0" k_velocity="1000.0" soft_lower_limit="-11.57079" soft_upper_limit="11.57079"/>
    <dynamics damping="1.0"/>
    <origin rpy="0 0 0" xyz="0 0 0"/>
  </joint>
  <joint name="right_f3_j1" type="revolute">
    <axis xyz="0 0 1"/>
    <parent link="right_f3_0"/>
    <child link="right_f3_1"/>
    <limit effort="28" lower="-1.57079632679" upper="1.57079632679" velocity="-1"/>
    <safety_controller k_position="1000.0" k_velocity="1000.0" soft_lower_limit="-11.57079" soft_upper_limit="11.57079"/>
    <dynamics damping="1.0"/>
    <origin rpy="1.57079632679 0 0" xyz="0.028 0 0"/>
  </joint>
  <joint name="right_f3_j2" type="revolute">
    <axis xyz="0 0 1"/>
    <parent link="right_f3_1"/>
    <child link="right_f3_2"/>
    <origin rpy="0 0 0" xyz="0.05 0 0"/>
    <safety_controller k_position="1000.0" k_velocity="1000.0" soft_lower_limit="-11.57079" soft_upper_limit="11.57079"/>
    <dynamics damping="1.0"/>
    <limit effort="28" lower="-1.57079632679" upper="1.57079632679" velocity="-1"/>
  </joint>
  <joint name="right_f3_fixed_accel" type="fixed">
    <parent link="right_f3_base"/>
    <child link="right_f3_fixed_accel"/>
    <origin rpy="0 0 0" xyz="-0.05 0 0"/>
  </joint>
  <joint name="right_f3_1_accel" type="fixed">
    <parent link="right_f3_1"/>
    <child link="right_f3_1_accel"/>
    <origin rpy="-1.57079632679 0 0" xyz="0.03 0 0"/>
  </joint>
  <joint name="right_f3_2_accel" type="fixed">
    <parent link="right_f3_2"/>
    <child link="right_f3_2_accel"/>
    <origin rpy="-1.57079632679 0 0" xyz="0.04 0 0"/>
  </joint>
  <transmission name="right_f3_j0" type="pr2_mechanism_model/SimpleTransmission">
    <joint name="right_f3_j0"/>
    <actuator name="right_f3_j0_motor"/>
    <mechanicalReduction>1</mechanicalReduction>
  </transmission>
  <transmission name="right_f3_j1" type="pr2_mechanism_model/SimpleTransmission">
    <joint name="right_f3_j1"/>
    <actuator name="right_f3_j1_motor"/>
    <mechanicalReduction>1</mechanicalReduction>
  </transmission>
  <transmission name="right_f3_j2" type="pr2_mechanism_model/SimpleTransmission">
    <joint name="right_f3_j2"/>
    <actuator name="right_f3_j2_motor"/>
    <mechanicalReduction>1</mechanicalReduction>
  </transmission>
  <gazebo reference="right_f3_base">
    <mu1>1.1</mu1>
    <mu2>1.1</mu2>
    <kp>1000000.0</kp>
    <kd>10.0</kd>
    <maxVel>0.1</maxVel>
    <minDepth>0.00</minDepth>
    <maxContacts>1</maxContacts>
    <material>Gazebo/FlatBlack</material>
  </gazebo>
  <gazebo reference="right_f3_0">
    <mu1>1.1</mu1>
    <mu2>1.1</mu2>
    <kp>1000000.0</kp>
    <kd>10.0</kd>
    <maxVel>0.1</maxVel>
    <minDepth>0.00</minDepth>
    <maxContacts>1</maxContacts>
    <material>Gazebo/FlatBlack</material>
  </gazebo>
  <gazebo reference="right_f3_1">
    <mu1>1.1</mu1>
    <mu2>1.1</mu2>
    <kp>1000000.0</kp>
    <kd>10.0</kd>
    <maxVel>0.1</maxVel>
    <minDepth>0.00</minDepth>
    <maxContacts>1</maxContacts>
    <material>Gazebo/FlatBlack</material>
  </gazebo>
  <gazebo reference="right_f3_2">
    <mu1>1.1</mu1>
    <mu2>1.1</mu2>
    <kp>1000000.0</kp>
    <kd>10.0</kd>
    <maxVel>0.1</maxVel>
    <minDepth>0.00</minDepth>
    <maxContacts>1</maxContacts>
    <material>Gazebo/FlatBlack</material>
  </gazebo>
  <gazebo reference="right_f3_j0">
    <cfmDamping>1</cfmDamping>
  </gazebo>
  <gazebo reference="right_f3_j1">
    <cfmDamping>1</cfmDamping>
  </gazebo>
  <gazebo reference="right_f3_j2">
    <cfmDamping>1</cfmDamping>
  </gazebo>
  <gazebo reference="right_palm">
    <mu1>1.1</mu1>
    <mu2>1.1</mu2>
    <kp>1000000.0</kp>
    <kd>1.0</kd>
    <maxVel>0.1</maxVel>
    <minDepth>0.00</minDepth>
    <maxContacts>6</maxContacts>
    <material>Gazebo/FlatBlack</material>
  </gazebo>
  <joint name="right_palm_left_camera_frame_joint" type="fixed">
    <origin rpy="0.6708 -1.57079632679 3.14159265359" xyz="0.0683774130138 0.0138342911048 0.025"/>
    <parent link="right_palm"/>
    <child link="right_palm_left_camera_frame"/>
  </joint>
  <link name="right_palm_left_camera_frame">
    <inertial>
      <mass value="0.01"/>
      <origin xyz="0 0 0"/>
      <inertia ixx="0.0001" ixy="0.0" ixz="0.0" iyy="0.0001" iyz="0.0" izz="0.0001"/>
    </inertial>
    <visual group="default">
      <origin rpy="0 0 0" xyz="0 0 0"/>
      <geometry>
        <box size="0.003 0.010 0.007"/>
      </geometry>
    </visual>
  </link>
  <joint name="right_palm_left_camera_optical_frame_joint" type="fixed">
    <origin rpy="-1.57079632679 0.0 -1.57079632679" xyz="0 0 0"/>
    <parent link="right_palm_left_camera_frame"/>
    <child link="right_palm_left_camera_optical_frame"/>
  </joint>
  <link name="right_palm_left_camera_optical_frame"/>
  <gazebo reference="right_palm_left_camera_frame">
    <sensor name="right_palm_stereo_camera" type="multicamera">
      <update_rate>30.0</update_rate>
      <camera name="left">
        <horizontal_fov>1.25663706144</horizontal_fov>
        <image>
          <width>752</width>
          <height>480</height>
          <format>L8</format>
        </image>
        <clip>
          <near>0.02</near>
          <far>100</far>
        </clip>
        <noise>
          <type>gaussian</type>
          <mean>0.0</mean>
          <stddev>0.007</stddev>
        </noise>
      </camera>
      <camera name="right">
        <pose>0 -0.04 0  0 0 0</pose>
        <horizontal_fov>1.25663706144</horizontal_fov>
        <image>
          <width>752</width>
          <height>480</height>
          <format>L8</format>
        </image>
        <clip>
          <near>0.02</near>
          <far>100</far>
        </clip>
        <noise>
          <type>gaussian</type>
          <mean>0.0</mean>
          <stddev>0.007</stddev>
        </noise>
      </camera>
      <plugin filename="libgazebo_ros_multicamera.so" name="stereo_camera_controller">
        <alwaysOn>true</alwaysOn>
        <updateRate>0.0</updateRate>
        <cameraName>sandia_hands/r_hand</cameraName>
        <imageTopicName>image_raw</imageTopicName>
        <cameraInfoTopicName>camera_info</cameraInfoTopicName>
        <frameName>right_palm_left_camera_optical_frame</frameName>
        <hackBaseline>0.04</hackBaseline>
        <distortionK1>0.0</distortionK1>
        <distortionK2>0.0</distortionK2>
        <distortionK3>0.0</distortionK3>
        <distortionT1>0.0</distortionT1>
        <distortionT2>0.0</distortionT2>
      </plugin>
    </sensor>
  </gazebo>
  <joint name="right_palm_right_camera_frame_joint" type="fixed">
    <origin rpy="0.6708 -1.57079632679 3.14159265359" xyz="0.0435128991906 0.0451672761576 0.025"/>
    <parent link="right_palm"/>
    <child link="right_palm_right_camera_frame"/>
  </joint>
  <link name="right_palm_right_camera_frame">
    <inertial>
      <mass value="0.01"/>
      <origin xyz="0 0 0"/>
      <inertia ixx="0.0001" ixy="0.0" ixz="0.0" iyy="0.0001" iyz="0.0" izz="0.0001"/>
    </inertial>
    <visual group="default">
      <origin rpy="0 0 0" xyz="0 0 0"/>
      <geometry>
        <box size="0.003 0.010 0.007"/>
      </geometry>
    </visual>
  </link>
  <joint name="right_palm_right_camera_optical_frame_joint" type="fixed">
    <origin rpy="-1.57079632679 0.0 -1.57079632679" xyz="0 0 0"/>
    <parent link="right_palm_right_camera_frame"/>
    <child link="right_palm_right_camera_optical_frame"/>
  </joint>
  <link name="right_palm_right_camera_optical_frame"/>
  <gazebo>
    <plugin filename="libContactModelPlugin.so" name="sandia_contact_plugin">
      <contact>
        <collision>r_hand::r_hand_collision_right_palm</collision>
        <collision>r_hand::r_hand_collision_right_palm_1</collision>
        <collision>r_hand::r_hand_collision_right_palm_3</collision>
        <collision>r_hand::r_hand_collision_right_palm_4</collision>
        <collision>r_hand::r_hand_collision_right_palm_5</collision>
        <collision>right_f0_1::right_f0_1_collision</collision>
        <collision>right_f0_2::right_f0_2_collision</collision>
        <collision>right_f1_1::right_f1_1_collision</collision>
        <collision>right_f1_2::right_f1_2_collision</collision>
        <collision>right_f2_1::right_f2_1_collision</collision>
        <collision>right_f2_2::right_f2_2_collision</collision>
        <collision>right_f3_1::right_f3_1_collision</collision>
        <collision>right_f3_2::right_f3_2_collision</collision>
      </contact>
    </plugin>
  </gazebo>
  <gazebo reference="r_hand">
    <sensor name="imu_sensor" type="imu">
      <always_on>1</always_on>
      <update_rate>1000.0</update_rate>
      <imu>
        <noise>
          <type>gaussian</type>
          <rate>
            <mean>0.0</mean>
            <stddev>2e-4</stddev>
            <bias_mean>0.0000075</bias_mean>
            <bias_stddev>0.0000008</bias_stddev>
          </rate>
          <accel>
            <mean>0.0</mean>
            <stddev>1.7e-2</stddev>
            <bias_mean>0.1</bias_mean>
            <bias_stddev>0.001</bias_stddev>
          </accel>
        </noise>
      </imu>
    </sensor>
  </gazebo>
</robot>
